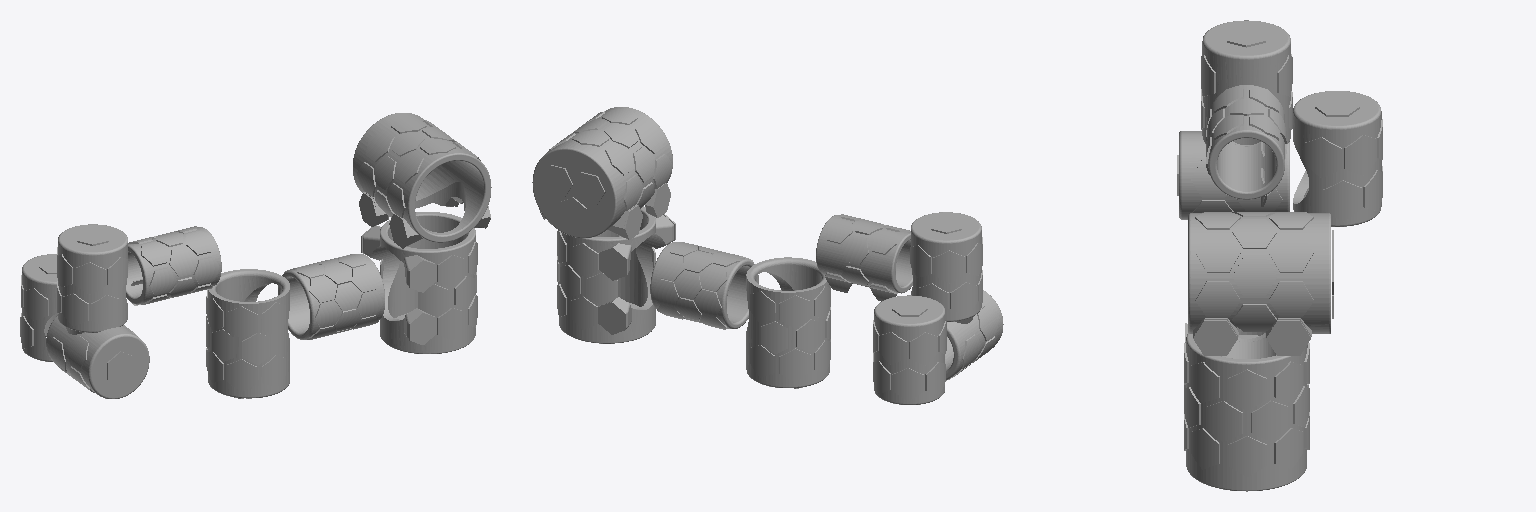
--- Facts derived from the render (not from the file) ---
The picture shows the robot from 3 angles, left to right: view 1: azimuth 30°, elevation 25°; view 2: azimuth 150°, elevation 25°; view 3: azimuth 270°, elevation 25°; orthographic projection.
Robot: dual_arm_agv — 152 links, 151 joints (2 revolute, 149 fixed); root link World; default pose: all joints at 0.
Links seen in each view (by area): view 1: left_eskin_05-2axis, left_eskin_05-1axis, left_eskin_03axis, left_eskin_01-2axis, left_eskin_01-3axis, left_eskin_01-1axis, left_eskin_02axis, left_eskin_04axis, left_eskin_01-3lib-02, left_eskin_03-axis-11, left_eskin_03-axis-02, left_eskin_05-1lib-08 (+23 smaller); view 2: left_eskin_05-2axis, left_eskin_05-1axis, left_eskin_03axis, left_eskin_01-1axis, left_eskin_02axis, left_eskin_01-3axis, left_eskin_04axis, left_eskin_01-2axis, left_eskin_01-1lib-08, left_eskin_03-axis-04, left_eskin_01-3lib-04, left_eskin_03-axis-13 (+28 smaller); view 3: left_eskin_05-2axis, left_eskin_05-1axis, left_eskin_01-1axis, left_eskin_01-3axis, left_eskin_02axis, left_eskin_01-2axis, left_eskin_05-2lib-09, left_eskin_05-2lib-16, left_eskin_05-2lib-03, left_eskin_05-2lib-15, left_eskin_05-2lib-02, left_eskin_05-2flat-14 (+24 smaller).
Link boxes in pixels (x1=…): left_eskin_05-2axis: x1=353, y1=113, x2=491, y2=246; left_eskin_05-1axis: x1=363, y1=212, x2=475, y2=353; left_eskin_03axis: x1=208, y1=269, x2=289, y2=398; left_eskin_01-2axis: x1=46, y1=315, x2=149, y2=398; left_eskin_01-3axis: x1=58, y1=224, x2=127, y2=332; left_eskin_01-1axis: x1=22, y1=254, x2=84, y2=361; left_eskin_02axis: x1=126, y1=227, x2=221, y2=304; left_eskin_04axis: x1=278, y1=254, x2=384, y2=339; left_eskin_01-3lib-02: x1=75, y1=262, x2=105, y2=294; left_eskin_03-axis-11: x1=227, y1=359, x2=257, y2=391; left_eskin_03-axis-02: x1=227, y1=306, x2=257, y2=338; left_eskin_05-1lib-08: x1=418, y1=284, x2=448, y2=315; left_eskin_05-2axis: x1=532, y1=107, x2=672, y2=238; left_eskin_05-1axis: x1=559, y1=206, x2=673, y2=343; left_eskin_03axis: x1=746, y1=257, x2=829, y2=387; left_eskin_01-1axis: x1=874, y1=295, x2=944, y2=404; left_eskin_02axis: x1=816, y1=215, x2=912, y2=293; left_eskin_01-3axis: x1=911, y1=212, x2=981, y2=321; left_eskin_04axis: x1=650, y1=242, x2=758, y2=328; left_eskin_01-2axis: x1=945, y1=290, x2=1003, y2=379; left_eskin_01-1lib-08: x1=892, y1=368, x2=923, y2=400; left_eskin_03-axis-04: x1=779, y1=295, x2=810, y2=327; left_eskin_01-3lib-04: x1=933, y1=250, x2=964, y2=283; left_eskin_03-axis-13: x1=779, y1=348, x2=810, y2=381; left_eskin_05-2axis: x1=1188, y1=213, x2=1330, y2=336; left_eskin_05-1axis: x1=1186, y1=324, x2=1306, y2=491; left_eskin_01-1axis: x1=1293, y1=91, x2=1381, y2=226; left_eskin_01-3axis: x1=1202, y1=20, x2=1290, y2=145; left_eskin_02axis: x1=1208, y1=85, x2=1284, y2=199; left_eskin_01-2axis: x1=1179, y1=131, x2=1289, y2=219; left_eskin_05-2lib-09: x1=1232, y1=257, x2=1276, y2=295; left_eskin_05-2lib-16: x1=1269, y1=235, x2=1313, y2=272; left_eskin_05-2lib-03: x1=1195, y1=235, x2=1240, y2=272; left_eskin_05-2lib-15: x1=1269, y1=281, x2=1313, y2=316; left_eskin_05-2lib-02: x1=1195, y1=281, x2=1240, y2=316; left_eskin_05-2flat-14: x1=1266, y1=320, x2=1310, y2=355.
Size in the robot's own frame: 0.5597 by 0.1947 by 0.2657 metres.
Meshes: 21 distinct files referenced, 143 mesh visuals loaded (11 Collada DAE); not drawn: 8 (reference not matched to a file when rendering).

The robot description file, URDF, robot "dual_arm_agv":
<?xml  version="1.0"?>
<robot name ="dual_arm_agv"> 
    <!-- Author: Chengjin Wang; e-mail:[email redacted]. The urdf file was develped in tongji university.-->

    <!--create  color params-->
    <material name ="LightGrey">
        <color rgba="0.7 0.7 0.7 1.0"/>
    </material>

    <!--create mass params
    <mass name ="agv_base_mass">
        <mass value="1.0"/>
    </mass>

    <mass name ="shoulder_mass">
        <mass value="2.0"/>
    </mass>
    <mass name ="upper_arm_mass">
        <mass value="3.42"/>
    </mass>
    <mass name ="forearm_mass">
        <mass value="1.26"/>
    </mass>
    <mass name ="wrist_1_mass">
        <mass value="0.8"/>
    </mass>
    <mass name ="wrist_2_mass">
        <mass value="0.8"/>
    </mass>
    <mass name ="wrist_3_mass">
        <mass value="0.35"/>
    </mass>
-->



        <!--Create a world.-->
    <link  name ="World"/>


    <joint name="agv_base_link_to_world" type="fixed">
        <parent link="World"/>
        <child link="agv_base_link"/>
        <origin xyz="0.0 0.0 0.0" rpy="0.0 0.0 0.0"/>
    </joint>


    <!--agv_base_link-->
    <link name = "agv_base_link">
        <visual>
            <origin  xyz="0.0 0.0 0.0" rpy="0.0 0.0 0.0"/>
            <geometry>
                <mesh filename = "meshes/agv_base_link.STL"/>
            </geometry >
            <material name ="LightGrey"/>
        </visual>
        <collision>
            <origin xyz="0.0 0.0 0.0" rpy="0.0 0.0 0.0"/>
            <geometry>
                <mesh filename ="meshes/agv_base_link.STL"/>
            </geometry>
        </collision>
        <inertial>
            <mass value ="60"/>
            <inertia ixx="1" ixy="0.0" ixz="0.0" iyy="1" iyz="0.0" izz="1"/>
        </inertial>
    </link>

    <!--arm base link to agv base joint-->
    <joint name="left_base_link_to_agv_base_link" type="fixed">
        <parent link="agv_base_link"/>
        <child link="left_base_link"/>
        <axis xyz="0.0 0.0 1.0"/>
        <origin xyz="0.262 0.0 1.2465" rpy="0.0 0.0 0.0" />
        <limit lower="-6.28318530718" upper="6.28318530718" effort="56.0" velocity="3.14159265359"/>
    </joint>

  <!--link chain: arm base link -shouder link- upper link- forearm link- wrist link 1 - wrist link 2 - wrist link3 -->
    <!--arm base link-->
    <link name="left_base_link">
        <visual>
            <origin xyz="0.0 0.215 0.0 " rpy="-1.5708 0.0 0.0"/>
            <geometry>
                <mesh filename ="meshes/base.dae"/>
            </geometry>
            <material name = "LightGrey"/>
        </visual>
        <collision>
            <origin xyz="0.0 0.215  0.0 " rpy="-1.5708 0.0 0.0"/>
            <geometry>
                 <mesh filename = "meshes/base.stl"/>
            </geometry>
        </collision>
        <inertial>
            <mass value="2.0"/>
            <inertia ixx="0.003053165" ixy="0.0" ixz="0.0" iyy="0.003053165" iyz="0.0" izz="0.005625"/>
        </inertial>
    </link>

    <!--arm joint 1 -->
    <joint name="left_shoulder_link_to_left_base_link" type="fixed">
            <origin xyz="0.0 0.36685 0.0" rpy="-1.5708 0.0 0.0"/>
            <parent link="left_base_link"/>
            <child link="left_shoulder_link"/>
            <axis xyz="0.0 0.0 1.0"/>
            <limit lower="-6.28318530718" upper="6.28318530718" effort="56.0" velocity="1.5708"/>
    </joint>

    <!--left shouder link-->
  
    <link name="left_shoulder_link">
        <visual>
            <origin xyz="0.0 0.0 0.0" rpy="0.0 0.0 0.0"/>
            <geometry>
                <mesh filename ="meshes/shoulder.dae"/>
            </geometry>
            <material name = "LightGrey"/>
        </visual>
        <collision>
            <origin xyz="0.0 0.0 0.0" rpy="0.0 0.0 0.0"/>
            <geometry>
                    <mesh filename ="meshes/shoulder.stl"/>
            </geometry>
        </collision>
        <inertial>
            <origin xyz="0 0 0" rpy="0 0 0" />
            <mass value ="2.0"/>
            <inertia ixx="0.008093163" ixy="0.0" ixz="0.0" iyy="0.008093163" iyz="0.0" izz="0.005625"/>
        </inertial>
    </link>


    <!--left arm 05-2 eskin joint-->
     <joint name="left_shoulder_link_to_left_eskin_05-2axis" type="fixed">
            <origin xyz="-0.0 0.0 -0.055" rpy="0.0 0.0 -1.5708"/>
            <parent link="left_shoulder_link"/>
            <child link="left_eskin_05-2axis"/>
            <axis xyz="0.0 0.0 1.0"/>
            <limit lower="-6.28318530718" upper="6.28318530718" effort="56.0" velocity="1.5708"/>
    </joint>

    <!--left arm 05-2 eskin model -->
    <link name="left_eskin_05-2axis">
        <visual>
            <origin xyz="0.0 0.0 0.0" rpy="0.0 0.0 0.0"/>
            <geometry>
                <mesh filename ="meshes/e_skin/05_meshs/05_axis_py.dae"/>
            </geometry>
            <material name = "LightGrey"/>
        </visual>
        <collision>
            <origin xyz="0.0 0.0 0.0" rpy="0.0 0.0 0.0"/>
        <geometry>
             <mesh filename ="meshes/e_skin/05_meshs/05_axis_py.stl"/>
        </geometry>
        </collision>
        <inertial>
            <origin xyz="0 0 0" rpy="0 0 0" />
            <mass value ="2.0"/>
            <inertia ixx="0.008093163" ixy="0.0" ixz="0.0" iyy="0.008093163" iyz="0.0" izz="0.005625"/>
        </inertial>
    </link>


     <!-- left_arm 05-2 eskin first  culon -->

      <!--left arm 05-2lib-01 eskin joint-->
     <joint name="left_eskin_05-2axis_to_left_eskin_05-2flat-01" type="fixed">
            <origin xyz="-0.0394 0.05648 0.026" rpy="-1.5708 0.5235 0.0"/>
            <parent link="left_eskin_05-2axis"/>
            <child link="left_eskin_05-2flat-01"/>
            <axis xyz="0.0 0.0 1.0"/>
            <limit lower="-6.28318530718" upper="6.28318530718" effort="56.0" velocity="1.5708"/>
    </joint>

    <!--left arm 05-2lib-01 eskin model -->
    <link name="left_eskin_05-2flat-01">
        <visual>
            <origin xyz="0.0 0.0 0.0" rpy="0.0 0.0 0.0"/>
            <geometry>
                <mesh filename ="meshes/e_skin/05_meshs/flat_py.dae"/>
            </geometry>
            <material name = "LightGrey"/>
        </visual>
        <collision>
            <origin xyz="0.0 0.0 0.0" rpy="0.0 0.0 0.0"/>
        <geometry>
             <mesh filename ="meshes/e_skin/05_meshs/flat_py.stl"/>
        </geometry>
        </collision>
        <inertial>
            <origin xyz="0 0 0" rpy="0 0 0" />
            <mass value ="2.0"/>
            <inertia ixx="0.008093163" ixy="0.0" ixz="0.0" iyy="0.008093163" iyz="0.0" izz="0.005625"/>
        </inertial>
    </link>


     <!--left arm 05-2lib-02 eskin joint-->
     <joint name="left_eskin_05-2axis_to_left_eskin_05-2lib-02" type="fixed">
            <origin xyz="0.0 0.06 0.026" rpy="0.0 0.0 0.0"/>
            <parent link="left_eskin_05-2axis"/>
            <child link="left_eskin_05-2lib-02"/>
            <axis xyz="0.0 0.0 1.0"/>
            <limit lower="-6.28318530718" upper="6.28318530718" effort="56.0" velocity="1.5708"/>
    </joint>

    <!--left arm 05-2lib-02 eskin model -->
    <link name="left_eskin_05-2lib-02">
        <visual>
            <origin xyz="0.0 0.0 0.0" rpy="0.0 0.0 0.0"/>
            <geometry>
                <mesh filename ="meshes/e_skin/05_meshs/05_lib_py.dae"/>
            </geometry>
            <material name = "LightGrey"/>
        </visual>
        <collision>
            <origin xyz="0.0 0.0 0.0" rpy="0.0 0.0 0.0"/>
        <geometry>
             <mesh filename ="meshes/e_skin/05_meshs/05_lib_py.stl"/>
        </geometry>
        </collision>
        <inertial>
            <origin xyz="0 0 0" rpy="0 0 0" />
            <mass value ="2.0"/>
            <inertia ixx="0.008093163" ixy="0.0" ixz="0.0" iyy="0.008093163" iyz="0.0" izz="0.005625"/>
        </inertial>
    </link>

    <!--left arm 05-2lib-03 eskin joint-->
    <joint name="left_eskin_05-2axis_to_left_eskin_05-2lib-03" type="fixed">
            <origin xyz="0.042426 0.042426 0.026" rpy="0.0 0.0 -0.785375"/>
            <parent link="left_eskin_05-2axis"/>
            <child link="left_eskin_05-2lib-03"/>
            <axis xyz="0.0 0.0 1.0"/>
            <limit lower="-6.28318530718" upper="6.28318530718" effort="56.0" velocity="1.5708"/>
    </joint>

    <!--left arm 05-2lib-03 eskin model -->
    <link name="left_eskin_05-2lib-03">
        <visual>
            <origin xyz="0.0 0.0 0.0" rpy="0.0 0.0 0.0"/>
            <geometry>
                <mesh filename ="meshes/e_skin/05_meshs/05_lib_py.dae"/>
            </geometry>
            <material name = "LightGrey"/>
        </visual>
        <collision>
            <origin xyz="0.0 0.0 0.0" rpy="0.0 0.0 0.0"/>
        <geometry>
             <mesh filename ="meshes/e_skin/05_meshs/05_lib_py.stl"/>
        </geometry>
        </collision>
        <inertial>
            <origin xyz="0 0 0" rpy="0 0 0" />
            <mass value ="2.0"/>
            <inertia ixx="0.008093163" ixy="0.0" ixz="0.0" iyy="0.008093163" iyz="0.0" izz="0.005625"/>
        </inertial>
    </link>

    <!--left arm 05-2lib-04 eskin joint-->
    <joint name="left_eskin_05-2axis_to_left_eskin_05-2lib-04" type="fixed">
            <origin xyz="0.06 0.0 0.026" rpy="0.0 0.0 -1.5708"/>
            <parent link="left_eskin_05-2axis"/>
            <child link="left_eskin_05-2lib-04"/>
            <axis xyz="0.0 0.0 1.0"/>
            <limit lower="-6.28318530718" upper="6.28318530718" effort="56.0" velocity="1.5708"/>
    </joint>

    <!--left arm 05-2lib-04 eskin model -->
    <link name="left_eskin_05-2lib-04">
        <visual>
            <origin xyz="0.0 0.0 0.0" rpy="0.0 0.0 0.0"/>
            <geometry>
                <mesh filename ="meshes/e_skin/05_meshs/05_lib_py.dae"/>
            </geometry>
            <material name = "LightGrey"/>
        </visual>
        <collision>
            <origin xyz="0.0 0.0 0.0" rpy="0.0 0.0 0.0"/>
        <geometry>
             <mesh filename ="meshes/e_skin/05_meshs/05_lib_py.stl"/>
        </geometry>
        </collision>
        <inertial>
            <origin xyz="0 0 0" rpy="0 0 0" />
            <mass value ="2.0"/>
            <inertia ixx="0.008093163" ixy="0.0" ixz="0.0" iyy="0.008093163" iyz="0.0" izz="0.005625"/>
        </inertial>
    </link>


    <!--left arm 05-2lib-05 eskin joint-->
    <joint name="left_eskin_05-2axis_to_left_eskin_05-2lib-05" type="fixed">
            <origin xyz="0.042426 -0.042426 0.026" rpy="0.0 0.0 -2.3636"/>
            <parent link="left_eskin_05-2axis"/>
            <child link="left_eskin_05-2lib-05"/>
            <axis xyz="0.0 0.0 1.0"/>
            <limit lower="-6.28318530718" upper="6.28318530718" effort="56.0" velocity="1.5708"/>
    </joint>

    <!--left arm 05-2lib-05 eskin model -->
    <link name="left_eskin_05-2lib-05">
        <visual>
            <origin xyz="0.0 0.0 0.0" rpy="0.0 0.0 0.0"/>
            <geometry>
                <mesh filename ="meshes/e_skin/05_meshs/05_lib_py.dae"/>
            </geometry>
            <material name = "LightGrey"/>
        </visual>
        <collision>
            <origin xyz="0.0 0.0 0.0" rpy="0.0 0.0 0.0"/>
        <geometry>
             <mesh filename ="meshes/e_skin/05_meshs/05_lib_py.stl"/>
        </geometry>
        </collision>
        <inertial>
            <origin xyz="0 0 0" rpy="0 0 0" />
            <mass value ="2.0"/>
            <inertia ixx="0.008093163" ixy="0.0" ixz="0.0" iyy="0.008093163" iyz="0.0" izz="0.005625"/>
        </inertial>
    </link>

    <!--left arm 05-2lib-06 eskin joint-->
    <joint name="left_eskin_05-2axis_to_left_eskin_05-2lib-06" type="fixed">
            <origin xyz="0.0 -0.06 0.026" rpy="0.0 0.0 -3.14159"/>
            <parent link="left_eskin_05-2axis"/>
            <child link="left_eskin_05-2lib-06"/>
            <axis xyz="0.0 0.0 1.0"/>
            <limit lower="-6.28318530718" upper="6.28318530718" effort="56.0" velocity="1.5708"/>
    </joint>

    <!--left arm 05-2lib-06 eskin model -->
    <link name="left_eskin_05-2lib-06">
        <visual>
            <origin xyz="0.0 0.0 0.0" rpy="0.0 0.0 0.0"/>
            <geometry>
                <mesh filename ="meshes/e_skin/05_meshs/05_lib_py.dae"/>
            </geometry>
            <material name = "LightGrey"/>
        </visual>
        <collision>
            <origin xyz="0.0 0.0 0.0" rpy="0.0 0.0 0.0"/>
        <geometry>
             <mesh filename ="meshes/e_skin/05_meshs/05_lib_py.stl"/>
        </geometry>
        </collision>
        <inertial>
            <origin xyz="0 0 0" rpy="0 0 0" />
            <mass value ="2.0"/>
            <inertia ixx="0.008093163" ixy="0.0" ixz="0.0" iyy="0.008093163" iyz="0.0" izz="0.005625"/>
        </inertial>
    </link>

    <!--left arm 05-2lib-07 eskin joint-->
    <joint name="left_eskin_05-2axis_to_left_eskin_05-2flat-07" type="fixed">
            <origin xyz="-0.0394 -0.05648 0.026" rpy="-1.5708 0.5235 0.0"/>
            <parent link="left_eskin_05-2axis"/>
            <child link="left_eskin_05-2flat-07"/>
            <axis xyz="0.0 0.0 1.0"/>
            <limit lower="-6.28318530718" upper="6.28318530718" effort="56.0" velocity="1.5708"/>
    </joint>

    <!--left arm 05-2lib-07 eskin model -->
    <link name="left_eskin_05-2flat-07">
        <visual>
            <origin xyz="0.0 0.0 0.0" rpy="0.0 0.0 0.0"/>
            <geometry>
                <mesh filename ="meshes/e_skin/05_meshs/flat_py.dae"/>
            </geometry>
            <material name = "LightGrey"/>
        </visual>
        <collision>
            <origin xyz="0.0 0.0 0.0" rpy="0.0 0.0 0.0"/>
        <geometry>
             <mesh filename ="meshes/e_skin/05_meshs/flat_py.stl"/>
        </geometry>
        </collision>
        <inertial>
            <origin xyz="0 0 0" rpy="0 0 0" />
            <mass value ="2.0"/>
            <inertia ixx="0.008093163" ixy="0.0" ixz="0.0" iyy="0.008093163" iyz="0.0" izz="0.005625"/>
        </inertial>
    </link>



    <!-- left_arm 05-2 eskin second  culon -->

    <!--left arm 05-2lib-08 eskin joint-->
    <joint name="left_eskin_05-2axis_to_left_eskin_05-2lib-08" type="fixed">
            <origin xyz="-0.022961 0.055432 0.0605" rpy="0.0 0.0 0.3926"/>
            <parent link="left_eskin_05-2axis"/>
            <child link="left_eskin_05-2lib-08"/>
            <axis xyz="0.0 0.0 1.0"/>
            <limit lower="-6.28318530718" upper="6.28318530718" effort="56.0" velocity="1.5708"/>
    </joint>

    <!--left arm 05-2lib-08 eskin model -->
    <link name="left_eskin_05-2lib-08">
        <visual>
            <origin xyz="0.0 0.0 0.0" rpy="0.0 0.0 0.0"/>
            <geometry>
                <mesh filename ="meshes/e_skin/05_meshs/05_lib_py.dae"/>
            </geometry>
            <material name = "LightGrey"/>
        </visual>
        <collision>
            <origin xyz="0.0 0.0 0.0" rpy="0.0 0.0 0.0"/>
        <geometry>
             <mesh filename ="meshes/e_skin/05_meshs/05_lib_py.stl"/>
        </geometry>
        </collision>
        <inertial>
            <origin xyz="0 0 0" rpy="0 0 0" />
            <mass value ="2.0"/>
            <inertia ixx="0.008093163" ixy="0.0" ixz="0.0" iyy="0.008093163" iyz="0.0" izz="0.005625"/>
        </inertial>
    </link>


    <!--left arm 05-2lib-09 eskin joint-->
    <joint name="left_eskin_05-2axis_to_left_eskin_05-2lib-09" type="fixed">
            <origin xyz="0.022961 0.055432 0.0605" rpy="0.0 0.0 -0.3926"/>
            <parent link="left_eskin_05-2axis"/>
            <child link="left_eskin_05-2lib-09"/>
            <axis xyz="0.0 0.0 1.0"/>
            <limit lower="-6.28318530718" upper="6.28318530718" effort="56.0" velocity="1.5708"/>
    </joint>

    <!--left arm 05-2lib-09 eskin model -->
    <link name="left_eskin_05-2lib-09">
        <visual>
            <origin xyz="0.0 0.0 0.0" rpy="0.0 0.0 0.0"/>
            <geometry>
                <mesh filename ="meshes/e_skin/05_meshs/05_lib_py.dae"/>
            </geometry>
            <material name = "LightGrey"/>
        </visual>
        <collision>
            <origin xyz="0.0 0.0 0.0" rpy="0.0 0.0 0.0"/>
        <geometry>
             <mesh filename ="meshes/e_skin/05_meshs/05_lib_py.stl"/>
        </geometry>
        </collision>
        <inertial>
            <origin xyz="0 0 0" rpy="0 0 0" />
            <mass value ="2.0"/>
            <inertia ixx="0.008093163" ixy="0.0" ixz="0.0" iyy="0.008093163" iyz="0.0" izz="0.005625"/>
        </inertial>
    </link>


    <!--left arm 05-2lib-10 eskin joint-->
    <joint name="left_eskin_05-2axis_to_left_eskin_05-2lib-10" type="fixed">
            <origin xyz="0.055432  0.022961 0.0605" rpy="0.0 0.0 -1.1781"/>
            <parent link="left_eskin_05-2axis"/>
            <child link="left_eskin_05-2lib-10"/>
            <axis xyz="0.0 0.0 1.0"/>
            <limit lower="-6.28318530718" upper="6.28318530718" effort="56.0" velocity="1.5708"/>
    </joint>

    <!--left arm 05-2lib-10 eskin model -->
    <link name="left_eskin_05-2lib-10">
        <visual>
            <origin xyz="0.0 0.0 0.0" rpy="0.0 0.0 0.0"/>
            <geometry>
                <mesh filename ="meshes/e_skin/05_meshs/05_lib_py.dae"/>
            </geometry>
            <material name = "LightGrey"/>
        </visual>
        <collision>
            <origin xyz="0.0 0.0 0.0" rpy="0.0 0.0 0.0"/>
        <geometry>
             <mesh filename ="meshes/e_skin/05_meshs/05_lib_py.stl"/>
        </geometry>
        </collision>
        <inertial>
            <origin xyz="0 0 0" rpy="0 0 0" />
            <mass value ="2.0"/>
            <inertia ixx="0.008093163" ixy="0.0" ixz="0.0" iyy="0.008093163" iyz="0.0" izz="0.005625"/>
        </inertial>
    </link>

    <!--left arm 05-2lib-11 eskin joint-->
    <joint name="left_eskin_05-2axis_to_left_eskin_05-2lib-11" type="fixed">
            <origin xyz="0.05531 -0.02296 0.0605" rpy="0.0 0.0 -1.96349"/>
            <parent link="left_eskin_05-2axis"/>
            <child link="left_eskin_05-2lib-11"/>
            <axis xyz="0.0 0.0 1.0"/>
            <limit lower="-6.28318530718" upper="6.28318530718" effort="56.0" velocity="1.5708"/>
    </joint>

    <!--left arm 05-2lib-11 eskin model -->
    <link name="left_eskin_05-2lib-11">
        <visual>
            <origin xyz="0.0 0.0 0.0" rpy="0.0 0.0 0.0"/>
            <geometry>
                <mesh filename ="meshes/e_skin/05_meshs/05_lib_py.dae"/>
            </geometry>
            <material name = "LightGrey"/>
        </visual>
        <collision>
            <origin xyz="0.0 0.0 0.0" rpy="0.0 0.0 0.0"/>
        <geometry>
             <mesh filename ="meshes/e_skin/05_meshs/05_lib_py.stl"/>
        </geometry>
        </collision>
        <inertial>
            <origin xyz="0 0 0" rpy="0 0 0" />
            <mass value ="2.0"/>
            <inertia ixx="0.008093163" ixy="0.0" ixz="0.0" iyy="0.008093163" iyz="0.0" izz="0.005625"/>
        </inertial>
    </link>

    <!--left arm 05-2lib-12 eskin joint-->
    <joint name="left_eskin_05-2axis_to_left_eskin_05-2lib-12" type="fixed">
            <origin xyz="0.022961 -0.055432 0.0605" rpy="0.0 0.0 -2.74889"/>
            <parent link="left_eskin_05-2axis"/>
            <child link="left_eskin_05-2lib-12"/>
            <axis xyz="0.0 0.0 1.0"/>
            <limit lower="-6.28318530718" upper="6.28318530718" effort="56.0" velocity="1.5708"/>
    </joint>

    <!--left arm 05-2lib-12 eskin model -->
    <link name="left_eskin_05-2lib-12">
        <visual>
            <origin xyz="0.0 0.0 0.0" rpy="0.0 0.0 0.0"/>
            <geometry>
                <mesh filename ="meshes/e_skin/05_meshs/05_lib_py.dae"/>
            </geometry>
            <material name = "LightGrey"/>
        </visual>
        <collision>
            <origin xyz="0.0 0.0 0.0" rpy="0.0 0.0 0.0"/>
        <geometry>
             <mesh filename ="meshes/e_skin/05_meshs/05_lib_py.stl"/>
        </geometry>
        </collision>
        <inertial>
            <origin xyz="0 0 0" rpy="0 0 0" />
            <mass value ="2.0"/>
            <inertia ixx="0.008093163" ixy="0.0" ixz="0.0" iyy="0.008093163" iyz="0.0" izz="0.005625"/>
        </inertial>
    </link>

    <!--left arm 05-2lib-13 eskin joint-->
    <joint name="left_eskin_05-2axis_to_left_eskin_05-2lib-13" type="fixed">
            <origin xyz="-0.022961 -0.055432 0.0605" rpy="0.0 0.0 -3.53428"/>
            <parent link="left_eskin_05-2axis"/>
            <child link="left_eskin_05-2lib-13"/>
            <axis xyz="0.0 0.0 1.0"/>
            <limit lower="-6.28318530718" upper="6.28318530718" effort="56.0" velocity="1.5708"/>
    </joint>

    <!--left arm 05-2lib-13 eskin model -->
    <link name="left_eskin_05-2lib-13">
        <visual>
            <origin xyz="0.0 0.0 0.0" rpy="0.0 0.0 0.0"/>
            <geometry>
                <mesh filename ="meshes/e_skin/05_meshs/05_lib_py.dae"/>
            </geometry>
            <material name = "LightGrey"/>
        </visual>
        <collision>
            <origin xyz="0.0 0.0 0.0" rpy="0.0 0.0 0.0"/>
        <geometry>
             <mesh filename ="meshes/e_skin/05_meshs/05_lib_py.stl"/>
        </geometry>
        </collision>
        <inertial>
            <origin xyz="0 0 0" rpy="0 0 0" />
            <mass value ="2.0"/>
            <inertia ixx="0.008093163" ixy="0.0" ixz="0.0" iyy="0.008093163" iyz="0.0" izz="0.005625"/>
        </inertial>
    </link>



     <!-- left_arm 05-2 eskin third  culon -->

     <joint name="left_eskin_05-2axis_to_left_eskin_05-2flat-14" type="fixed">
            <origin xyz="-0.0394 0.05648 0.095" rpy="-1.5708 0.5235 0.0"/>
            <parent link="left_eskin_05-2axis"/>
            <child link="left_eskin_05-2flat-14"/>
            <axis xyz="0.0 0.0 1.0"/>
            <limit lower="-6.28318530718" upper="6.28318530718" effort="56.0" velocity="1.5708"/>
    </joint>

    <!--left arm 05-2lib-14 eskin model -->
    <link name="left_eskin_05-2flat-14">
        <visual>
            <origin xyz="0.0 0.0 0.0" rpy="0.0 0.0 0.0"/>
            <geometry>
                <mesh filename ="meshes/e_skin/05_meshs/flat_py.dae"/>
            </geometry>
            <material name = "LightGrey"/>
        </visual>
        <collision>
            <origin xyz="0.0 0.0 0.0" rpy="0.0 0.0 0.0"/>
        <geometry>
             <mesh filename ="meshes/e_skin/05_meshs/flat_py.stl"/>
        </geometry>
        </collision>
        <inertial>
            <origin xyz="0 0 0" rpy="0 0 0" />
            <mass value ="2.0"/>
            <inertia ixx="0.008093163" ixy="0.0" ixz="0.0" iyy="0.008093163" iyz="0.0" izz="0.005625"/>
        </inertial>
    </link>

    <!--left arm 05-2lib-15 eskin joint-->
     <joint name="left_eskin_05-2axis_to_left_eskin_05-2lib-15" type="fixed">
            <origin xyz="0.0 0.06 0.095" rpy="0.0 0.0 0.0"/>
            <parent link="left_eskin_05-2axis"/>
            <child link="left_eskin_05-2lib-15"/>
            <axis xyz="0.0 0.0 1.0"/>
            <limit lower="-6.28318530718" upper="6.28318530718" effort="56.0" velocity="1.5708"/>
    </joint>

    <!--left arm 05-2lib-15 eskin model -->
    <link name="left_eskin_05-2lib-15">
        <visual>
            <origin xyz="0.0 0.0 0.0" rpy="0.0 0.0 0.0"/>
            <geometry>
                <mesh filename ="meshes/e_skin/05_meshs/05_lib_py.dae"/>
            </geometry>
            <material name = "LightGrey"/>
        </visual>
        <collision>
            <origin xyz="0.0 0.0 0.0" rpy="0.0 0.0 0.0"/>
        <geometry>
             <mesh filename ="meshes/e_skin/05_meshs/05_lib_py.stl"/>
        </geometry>
        </collision>
        <inertial>
            <origin xyz="0 0 0" rpy="0 0 0" />
            <mass value ="2.0"/>
            <inertia ixx="0.008093163" ixy="0.0" ixz="0.0" iyy="0.008093163" iyz="0.0" izz="0.005625"/>
        </inertial>
    </link>

    <!--left arm 05-2lib-16 eskin joint-->
    <joint name="left_eskin_05-2axis_to_left_eskin_05-2lib-16" type="fixed">
            <origin xyz="0.042426 0.042426 0.095" rpy="0.0 0.0 -0.785375"/>
            <parent link="left_eskin_05-2axis"/>
            <child link="left_eskin_05-2lib-16"/>
            <axis xyz="0.0 0.0 1.0"/>
            <limit lower="-6.28318530718" upper="6.28318530718" effort="56.0" velocity="1.5708"/>
    </joint>

    <!--left arm 05-2lib-16 eskin model -->
    <link name="left_eskin_05-2lib-16">
        <visual>
            <origin xyz="0.0 0.0 0.0" rpy="0.0 0.0 0.0"/>
            <geometry>
                <mesh filename ="meshes/e_skin/05_meshs/05_lib_py.dae"/>
            </geometry>
            <material name = "LightGrey"/>
        </visual>
        <collision>
            <origin xyz="0.0 0.0 0.0" rpy="0.0 0.0 0.0"/>
        <geometry>
             <mesh filename ="meshes/e_skin/05_meshs/05_lib_py.stl"/>
        </geometry>
        </collision>
        <inertial>
            <origin xyz="0 0 0" rpy="0 0 0" />
            <mass value ="2.0"/>
            <inertia ixx="0.008093163" ixy="0.0" ixz="0.0" iyy="0.008093163" iyz="0.0" izz="0.005625"/>
        </inertial>
    </link>

    <!--left arm 05-2lib-17 eskin joint-->
    <joint name="left_eskin_05-2axis_to_left_eskin_05-2lib-17" type="fixed">
            <origin xyz="0.06 0.0 0.095" rpy="0.0 0.0 -1.5708"/>
            <parent link="left_eskin_05-2axis"/>
            <child link="left_eskin_05-2lib-17"/>
            <axis xyz="0.0 0.0 1.0"/>
            <limit lower="-6.28318530718" upper="6.28318530718" effort="56.0" velocity="1.5708"/>
    </joint>

    <!--left arm 05-2lib-17 eskin model -->
    <link name="left_eskin_05-2lib-17">
        <visual>
            <origin xyz="0.0 0.0 0.0" rpy="0.0 0.0 0.0"/>
            <geometry>
                <mesh filename ="meshes/e_skin/05_meshs/05_lib_py.dae"/>
            </geometry>
            <material name = "LightGrey"/>
        </visual>
        <collision>
            <origin xyz="0.0 0.0 0.0" rpy="0.0 0.0 0.0"/>
        <geometry>
             <mesh filename ="meshes/e_skin/05_meshs/05_lib_py.stl"/>
        </geometry>
        </collision>
        <inertial>
            <origin xyz="0 0 0" rpy="0 0 0" />
            <mass value ="2.0"/>
            <inertia ixx="0.008093163" ixy="0.0" ixz="0.0" iyy="0.008093163" iyz="0.0" izz="0.005625"/>
        </inertial>
    </link>


    <!--left arm 05-2lib-18 eskin joint-->
    <joint name="left_eskin_05-2axis_to_left_eskin_05-2lib-18" type="fixed">
            <origin xyz="0.042426 -0.042426 0.095" rpy="0.0 0.0 -2.3636"/>
            <parent link="left_eskin_05-2axis"/>
            <child link="left_eskin_05-2lib-18"/>
            <axis xyz="0.0 0.0 1.0"/>
            <limit lower="-6.28318530718" upper="6.28318530718" effort="56.0" velocity="1.5708"/>
    </joint>

    <!--left arm 05-2lib-18 eskin model -->
    <link name="left_eskin_05-2lib-18">
        <visual>
            <origin xyz="0.0 0.0 0.0" rpy="0.0 0.0 0.0"/>
            <geometry>
                <mesh filename ="meshes/e_skin/05_meshs/05_lib_py.dae"/>
            </geometry>
            <material name = "LightGrey"/>
        </visual>
        <collision>
            <origin xyz="0.0 0.0 0.0" rpy="0.0 0.0 0.0"/>
        <geometry>
             <mesh filename ="meshes/e_skin/05_meshs/05_lib_py.stl"/>
        </geometry>
        </collision>
        <inertial>
            <origin xyz="0 0 0" rpy="0 0 0" />
            <mass value ="2.0"/>
            <inertia ixx="0.008093163" ixy="0.0" ixz="0.0" iyy="0.008093163" iyz="0.0" izz="0.005625"/>
        </inertial>
    </link>

    <!--left arm 05-2lib-19 eskin joint-->
    <joint name="left_eskin_05-2axis_to_left_eskin_05-2lib-19" type="fixed">
            <origin xyz="0.0 -0.06 0.095" rpy="0.0 0.0 -3.14159"/>
            <parent link="left_eskin_05-2axis"/>
            <child link="left_eskin_05-2lib-19"/>
            <axis xyz="0.0 0.0 1.0"/>
            <limit lower="-6.28318530718" upper="6.28318530718" effort="56.0" velocity="1.5708"/>
    </joint>

    <!--left arm 05-2lib-19 eskin model -->
    <link name="left_eskin_05-2lib-19">
        <visual>
            <origin xyz="0.0 0.0 0.0" rpy="0.0 0.0 0.0"/>
            <geometry>
                <mesh filename ="meshes/e_skin/05_meshs/05_lib_py.dae"/>
            </geometry>
            <material name = "LightGrey"/>
        </visual>
        <collision>
            <origin xyz="0.0 0.0 0.0" rpy="0.0 0.0 0.0"/>
        <geometry>
             <mesh filename ="meshes/e_skin/05_meshs/05_lib_py.stl"/>
        </geometry>
        </collision>
        <inertial>
            <origin xyz="0 0 0" rpy="0 0 0" />
            <mass value ="2.0"/>
            <inertia ixx="0.008093163" ixy="0.0" ixz="0.0" iyy="0.008093163" iyz="0.0" izz="0.005625"/>
        </inertial>
    </link>

    <!--left arm 05-2lib-20 eskin joint-->
    <joint name="left_eskin_05-2axis_to_left_eskin_05-2flat-20" type="fixed">
            <origin xyz="-0.0394 -0.05648 0.095" rpy="1.5708 0.5235 0.0"/>
            <parent link="left_eskin_05-2axis"/>
            <child link="left_eskin_05-2flat-20"/>
            <axis xyz="0.0 0.0 1.0"/>
            <limit lower="-6.28318530718" upper="6.28318530718" effort="56.0" velocity="1.5708"/>
    </joint>

    <!--left arm 05-2lib-20 eskin model -->
    <link name="left_eskin_05-2flat-20">
        <visual>
            <origin xyz="0.0 0.0 0.0" rpy="0.0 0.0 0.0"/>
            <geometry>
                <mesh filename ="meshes/e_skin/05_meshs/flat_py.dae"/>
            </geometry>
            <material name = "LightGrey"/>
        </visual>
        <collision>
            <origin xyz="0.0 0.0 0.0" rpy="0.0 0.0 0.0"/>
        <geometry>
             <mesh filename ="meshes/e_skin/05_meshs/flat_py.stl"/>
        </geometry>
        </collision>
        <inertial>
            <origin xyz="0 0 0" rpy="0 0 0" />
            <mass value ="2.0"/>
            <inertia ixx="0.008093163" ixy="0.0" ixz="0.0" iyy="0.008093163" iyz="0.0" izz="0.005625"/>
        </inertial>
    </link>

     <!-- left_arm 05-2 eskin flat  culon -->

    <!--left arm 05-2lib-21 eskin joint -->
     <joint name="left_eskin_05-2axis_to_left_eskin_05-2flat-21" type="fixed">
            <origin xyz="0.0125 -0.02165 0.135" rpy="0.0 0.0 -0.5235"/>
            <parent link="left_eskin_05-2axis"/>
            <child link="left_eskin_05-2flat-21"/>
            <axis xyz="0.0 0.0 1.0"/>
            <limit lower="-6.28318530718" upper="6.28318530718" effort="56.0" velocity="1.5708"/>
    </joint>

    <!--left arm 05-2lib-21 eskin model -->
    <link name="left_eskin_05-2flat-21">
        <visual>
            <origin xyz="0.0 0.0 0.0" rpy="0.0 0.0 0.0"/>
            <geometry>
                <mesh filename ="meshes/e_skin/05_meshs/flat_py.dae"/>
            </geometry>
            <material name = "LightGrey"/>
        </visual>
        <collision>
            <origin xyz="0.0 0.0 0.0" rpy="0.0 0.0 0.0"/>
        <geometry>
             <mesh filename ="meshes/e_skin/05_meshs/flat_py.stl"/>
        </geometry>
        </collision>
        <inertial>
            <origin xyz="0 0 0" rpy="0 0 0" />
            <mass value ="2.0"/>
            <inertia ixx="0.008093163" ixy="0.0" ixz="0.0" iyy="0.008093163" iyz="0.0" izz="0.005625"/>
        </inertial>
    </link>

     <joint name="left_eskin_05-2axis_to_left_eskin_05-2flat-22" type="fixed">
            <origin xyz="0.0125 0.02165 0.135" rpy="0.0 0.0 0.5235"/>
            <parent link="left_eskin_05-2axis"/>
            <child link="left_eskin_05-2flat-22"/>
            <axis xyz="0.0 0.0 1.0"/>
            <limit lower="-6.28318530718" upper="6.28318530718" effort="56.0" velocity="1.5708"/>
    </joint>

    <!--left arm 05-2lib-22 eskin model -->
    <link name="left_eskin_05-2flat-22">
        <visual>
            <origin xyz="0.0 0.0 0.0" rpy="0.0 0.0 0.0"/>
            <geometry>
                <mesh filename ="meshes/e_skin/05_meshs/flat_py.dae"/>
            </geometry>
            <material name = "LightGrey"/>
        </visual>
        <collision>
            <origin xyz="0.0 0.0 0.0" rpy="0.0 0.0 0.0"/>
        <geometry>
             <mesh filename ="meshes/e_skin/05_meshs/flat_py.stl"/>
        </geometry>
        </collision>
        <inertial>
            <origin xyz="0 0 0" rpy="0 0 0" />
            <mass value ="2.0"/>
            <inertia ixx="0.008093163" ixy="0.0" ixz="0.0" iyy="0.008093163" iyz="0.0" izz="0.005625"/>
        </inertial>
    </link>


    <joint name="left_eskin_05-2axis_to_left_eskin_05-2flat-23" type="fixed">
            <origin xyz="-0.025 0.0 0.135" rpy="0.0 0.0 0.0"/>
            <parent link="left_eskin_05-2axis"/>
            <child link="left_eskin_05-2flat-23"/>
            <axis xyz="0.0 0.0 1.0"/>
            <limit lower="-6.28318530718" upper="6.28318530718" effort="56.0" velocity="1.5708"/>
    </joint>

    <!--left arm 05-2lib-23 eskin model -->
    <link name="left_eskin_05-2flat-23">
        <visual>
            <origin xyz="0.0 0.0 0.0" rpy="0.0 0.0 0.0"/>
            <geometry>
                <mesh filename ="meshes/e_skin/05_meshs/flat_py.dae"/>
            </geometry>
            <material name = "LightGrey"/>
        </visual>
        <collision>
            <origin xyz="0.0 0.0 0.0" rpy="0.0 0.0 0.0"/>
        <geometry>
             <mesh filename ="meshes/e_skin/05_meshs/flat_py.stl"/>
        </geometry>
        </collision>
        <inertial>
            <origin xyz="0 0 0" rpy="0 0 0" />
            <mass value ="2.0"/>
            <inertia ixx="0.008093163" ixy="0.0" ixz="0.0" iyy="0.008093163" iyz="0.0" izz="0.005625"/>
        </inertial>
    </link>

    


    

    <!--arm joint 2-->
    <joint name="left_upper_arm_link_to_left_shoulder_link" type="revolute">
        <origin xyz="0.0 0.0 0.0" rpy="-1.5708 0.0  0."/>
        <parent link="left_shoulder_link"/>
        <child link="left_upper_arm_link"/>
        <axis xyz="0.0 0.0 1"/>
        <limit lower="-6.28318530718" upper="6.28318530718" effort="56.0" velocity="1.5708"/>
    </joint>

    <!--left upper link -->
    <link name="left_upper_arm_link">
        <inertial>
            <origin xyz="-0.121825 0.0 0.12" rpy="  0.0 1.5708 0.0"/>
            <mass value ="3.42"/>
            <inertia ixx="0.021728483" ixy="0.0" ixz="0.0" iyy="0.021728483" iyz="0.0" izz="0.00961875"/>
        </inertial>
        <visual >
            <origin xyz="0.0 0.0 0.1198" rpy="1.5708 0.0 -1.5708 "/>
            <geometry>
                <mesh filename="meshes/upperarm.dae"/>
            </geometry>
            <material name="LightGrey"/>
        </visual>
        <collision>
            <origin xyz="0.0 0.0 0.1198" rpy="1.5708 0.0 -1.5708"/>
            <geometry>
                <mesh filename="meshes/upperarm.stl"/>
            </geometry>
        </collision>
    </link>

    <!-- left arm 05-01 eskin joint -->
     <joint name="left_upper_arm_link_to_left_eskin_05-1axis" type="fixed">
            <origin xyz="0.0 0.0 0.0648" rpy="0.0 0.0  0.0"/>
            <parent link="left_upper_arm_link"/>
            <child link="left_eskin_05-1axis"/>
            <axis xyz="0.0 0.0 1.0"/>
            <limit lower="-6.28318530718" upper="6.28318530718" effort="56.0" velocity="1.5708"/>
    </joint>

    <!--left arm 05-01 eskin model -->
    <link name="left_eskin_05-1axis">
        <visual>
            <origin xyz="0.0 0.0 0.00" rpy="0.0 0.0 0.0"/>
            <geometry>
                <mesh filename ="meshes/e_skin/05_meshs/05_axis_py.dae"/>
            </geometry>
            <material name = "LightGrey"/>
        </visual>
        <collision>
            <origin xyz="0.0 0.0 0.0" rpy="0.0 0.0 0.0"/>
        <geometry>
             <mesh filename ="meshes/e_skin/05_meshs/05_axis_py.stl"/>
        </geometry>
        </collision>
        <inertial>
            <origin xyz="0 0 0" rpy="0 0 0" />
            <mass value ="2.0"/>
            <inertia ixx="0.008093163" ixy="0.0" ixz="0.0" iyy="0.008093163" iyz="0.0" izz="0.005625"/>
        </inertial>
    </link>

<!-- left_arm 05-1 eskin first  culon -->

      <!--left arm 05-1lib-01 eskin joint-->
     <joint name="left_eskin_05-1axis_to_left_eskin_05-1flat-01" type="fixed">
            <origin xyz="-0.0394 0.05648 0.026" rpy="-1.5708 0.5235 0.0"/>
            <parent link="left_eskin_05-1axis"/>
            <child link="left_eskin_05-1flat-01"/>
            <axis xyz="0.0 0.0 1.0"/>
            <limit lower="-6.28318530718" upper="6.28318530718" effort="56.0" velocity="1.5708"/>
    </joint>

    <!--left arm 05-1lib-01 eskin model -->
    <link name="left_eskin_05-1flat-01">
        <visual>
            <origin xyz="0.0 0.0 0.0" rpy="0.0 0.0 0.0"/>
            <geometry>
                <mesh filename ="meshes/e_skin/05_meshs/flat_py.dae"/>
            </geometry>
            <material name = "LightGrey"/>
        </visual>
        <collision>
            <origin xyz="0.0 0.0 0.0" rpy="0.0 0.0 0.0"/>
        <geometry>
             <mesh filename ="meshes/e_skin/05_meshs/flat_py.stl"/>
        </geometry>
        </collision>
        <inertial>
            <origin xyz="0 0 0" rpy="0 0 0" />
            <mass value ="2.0"/>
            <inertia ixx="0.008093163" ixy="0.0" ixz="0.0" iyy="0.008093163" iyz="0.0" izz="0.005625"/>
        </inertial>
    </link>


     <!--left arm 05-1lib-02 eskin joint-->
     <joint name="left_eskin_05-1axis_to_left_eskin_05-1lib-02" type="fixed">
            <origin xyz="0.0 0.06 0.026" rpy="0.0 0.0 0.0"/>
            <parent link="left_eskin_05-1axis"/>
            <child link="left_eskin_05-1lib-02"/>
            <axis xyz="0.0 0.0 1.0"/>
            <limit lower="-6.28318530718" upper="6.28318530718" effort="56.0" velocity="1.5708"/>
    </joint>

    <!--left arm 05-1lib-02 eskin model -->
    <link name="left_eskin_05-1lib-02">
        <visual>
            <origin xyz="0.0 0.0 0.0" rpy="0.0 0.0 0.0"/>
            <geometry>
                <mesh filename ="meshes/e_skin/05_meshs/05_lib_py.dae"/>
            </geometry>
            <material name = "LightGrey"/>
        </visual>
        <collision>
            <origin xyz="0.0 0.0 0.0" rpy="0.0 0.0 0.0"/>
        <geometry>
             <mesh filename ="meshes/e_skin/05_meshs/05_lib_py.stl"/>
        </geometry>
        </collision>
        <inertial>
            <origin xyz="0 0 0" rpy="0 0 0" />
            <mass value ="2.0"/>
            <inertia ixx="0.008093163" ixy="0.0" ixz="0.0" iyy="0.008093163" iyz="0.0" izz="0.005625"/>
        </inertial>
    </link>

    <!--left arm 05-1lib-03 eskin joint-->
    <joint name="left_eskin_05-1axis_to_left_eskin_05-1lib-03" type="fixed">
            <origin xyz="0.042426 0.042426 0.026" rpy="0.0 0.0 -0.785375"/>
            <parent link="left_eskin_05-1axis"/>
            <child link="left_eskin_05-1lib-03"/>
            <axis xyz="0.0 0.0 1.0"/>
            <limit lower="-6.28318530718" upper="6.28318530718" effort="56.0" velocity="1.5708"/>
    </joint>

    <!--left arm 05-1lib-03 eskin model -->
    <link name="left_eskin_05-1lib-03">
        <visual>
            <origin xyz="0.0 0.0 0.0" rpy="0.0 0.0 0.0"/>
            <geometry>
                <mesh filename ="meshes/e_skin/05_meshs/05_lib_py.dae"/>
            </geometry>
            <material name = "LightGrey"/>
        </visual>
        <collision>
            <origin xyz="0.0 0.0 0.0" rpy="0.0 0.0 0.0"/>
        <geometry>
             <mesh filename ="meshes/e_skin/05_meshs/05_lib_py.stl"/>
        </geometry>
        </collision>
        <inertial>
            <origin xyz="0 0 0" rpy="0 0 0" />
            <mass value ="2.0"/>
            <inertia ixx="0.008093163" ixy="0.0" ixz="0.0" iyy="0.008093163" iyz="0.0" izz="0.005625"/>
        </inertial>
    </link>

    <!--left arm 05-1lib-04 eskin joint-->
    <joint name="left_eskin_05-1axis_to_left_eskin_05-1lib-04" type="fixed">
            <origin xyz="0.06 0.0 0.026" rpy="0.0 0.0 -1.5708"/>
            <parent link="left_eskin_05-1axis"/>
            <child link="left_eskin_05-1lib-04"/>
            <axis xyz="0.0 0.0 1.0"/>
            <limit lower="-6.28318530718" upper="6.28318530718" effort="56.0" velocity="1.5708"/>
    </joint>

    <!--left arm 05-1lib-04 eskin model -->
    <link name="left_eskin_05-1lib-04">
        <visual>
            <origin xyz="0.0 0.0 0.0" rpy="0.0 0.0 0.0"/>
            <geometry>
                <mesh filename ="meshes/e_skin/05_meshs/05_lib_py.dae"/>
            </geometry>
            <material name = "LightGrey"/>
        </visual>
        <collision>
            <origin xyz="0.0 0.0 0.0" rpy="0.0 0.0 0.0"/>
        <geometry>
             <mesh filename ="meshes/e_skin/05_meshs/05_lib_py.stl"/>
        </geometry>
        </collision>
        <inertial>
            <origin xyz="0 0 0" rpy="0 0 0" />
            <mass value ="2.0"/>
            <inertia ixx="0.008093163" ixy="0.0" ixz="0.0" iyy="0.008093163" iyz="0.0" izz="0.005625"/>
        </inertial>
    </link>


    <!--left arm 05-1lib-05 eskin joint-->
    <joint name="left_eskin_05-1axis_to_left_eskin_05-1lib-05" type="fixed">
            <origin xyz="0.042426 -0.042426 0.026" rpy="0.0 0.0 -2.3636"/>
            <parent link="left_eskin_05-1axis"/>
            <child link="left_eskin_05-1lib-05"/>
            <axis xyz="0.0 0.0 1.0"/>
            <limit lower="-6.28318530718" upper="6.28318530718" effort="56.0" velocity="1.5708"/>
    </joint>

    <!--left arm 05-1lib-05 eskin model -->
    <link name="left_eskin_05-1lib-05">
        <visual>
            <origin xyz="0.0 0.0 0.0" rpy="0.0 0.0 0.0"/>
            <geometry>
                <mesh filename ="meshes/e_skin/05_meshs/05_lib_py.dae"/>
            </geometry>
            <material name = "LightGrey"/>
        </visual>
        <collision>
            <origin xyz="0.0 0.0 0.0" rpy="0.0 0.0 0.0"/>
        <geometry>
             <mesh filename ="meshes/e_skin/05_meshs/05_lib_py.stl"/>
        </geometry>
        </collision>
        <inertial>
            <origin xyz="0 0 0" rpy="0 0 0" />
            <mass value ="2.0"/>
            <inertia ixx="0.008093163" ixy="0.0" ixz="0.0" iyy="0.008093163" iyz="0.0" izz="0.005625"/>
        </inertial>
    </link>

    <!--left arm 05-1lib-06 eskin joint-->
    <joint name="left_eskin_05-1axis_to_left_eskin_05-1lib-06" type="fixed">
            <origin xyz="0.0 -0.06 0.026" rpy="0.0 0.0 -3.14159"/>
            <parent link="left_eskin_05-1axis"/>
            <child link="left_eskin_05-1lib-06"/>
            <axis xyz="0.0 0.0 1.0"/>
            <limit lower="-6.28318530718" upper="6.28318530718" effort="56.0" velocity="1.5708"/>
    </joint>

    <!--left arm 05-1lib-06 eskin model -->
    <link name="left_eskin_05-1lib-06">
        <visual>
            <origin xyz="0.0 0.0 0.0" rpy="0.0 0.0 0.0"/>
            <geometry>
                <mesh filename ="meshes/e_skin/05_meshs/05_lib_py.dae"/>
            </geometry>
            <material name = "LightGrey"/>
        </visual>
        <collision>
            <origin xyz="0.0 0.0 0.0" rpy="0.0 0.0 0.0"/>
        <geometry>
             <mesh filename ="meshes/e_skin/05_meshs/05_lib_py.stl"/>
        </geometry>
        </collision>
        <inertial>
            <origin xyz="0 0 0" rpy="0 0 0" />
            <mass value ="2.0"/>
            <inertia ixx="0.008093163" ixy="0.0" ixz="0.0" iyy="0.008093163" iyz="0.0" izz="0.005625"/>
        </inertial>
    </link>

    <!--left arm 05-1lib-07 eskin joint-->
    <joint name="left_eskin_05-1axis_to_left_eskin_05-1flat-07" type="fixed">
            <origin xyz="-0.0394 -0.05648 0.026" rpy="-1.5708 0.5235 0.0"/>
            <parent link="left_eskin_05-1axis"/>
            <child link="left_eskin_05-1flat-07"/>
            <axis xyz="0.0 0.0 1.0"/>
            <limit lower="-6.28318530718" upper="6.28318530718" effort="56.0" velocity="1.5708"/>
    </joint>

    <!--left arm 05-1lib-07 eskin model -->
    <link name="left_eskin_05-1flat-07">
        <visual>
            <origin xyz="0.0 0.0 0.0" rpy="0.0 0.0 0.0"/>
            <geometry>
                <mesh filename ="meshes/e_skin/05_meshs/flat_py.dae"/>
            </geometry>
            <material name = "LightGrey"/>
        </visual>
        <collision>
            <origin xyz="0.0 0.0 0.0" rpy="0.0 0.0 0.0"/>
        <geometry>
             <mesh filename ="meshes/e_skin/05_meshs/flat_py.stl"/>
        </geometry>
        </collision>
        <inertial>
            <origin xyz="0 0 0" rpy="0 0 0" />
            <mass value ="2.0"/>
            <inertia ixx="0.008093163" ixy="0.0" ixz="0.0" iyy="0.008093163" iyz="0.0" izz="0.005625"/>
        </inertial>
    </link>



    <!-- left_arm 05-1 eskin second  culon -->

    <!--left arm 05-1lib-08 eskin joint-->
    <joint name="left_eskin_05-1axis_to_left_eskin_05-1lib-08" type="fixed">
            <origin xyz="-0.022961 0.055432 0.0605" rpy="0.0 0.0 0.3926"/>
            <parent link="left_eskin_05-1axis"/>
            <child link="left_eskin_05-1lib-08"/>
            <axis xyz="0.0 0.0 1.0"/>
            <limit lower="-6.28318530718" upper="6.28318530718" effort="56.0" velocity="1.5708"/>
    </joint>

    <!--left arm 05-1lib-08 eskin model -->
    <link name="left_eskin_05-1lib-08">
        <visual>
            <origin xyz="0.0 0.0 0.0" rpy="0.0 0.0 0.0"/>
            <geometry>
                <mesh filename ="meshes/e_skin/05_meshs/05_lib_py.dae"/>
            </geometry>
            <material name = "LightGrey"/>
        </visual>
        <collision>
            <origin xyz="0.0 0.0 0.0" rpy="0.0 0.0 0.0"/>
        <geometry>
             <mesh filename ="meshes/e_skin/05_meshs/05_lib_py.stl"/>
        </geometry>
        </collision>
        <inertial>
            <origin xyz="0 0 0" rpy="0 0 0" />
            <mass value ="2.0"/>
            <inertia ixx="0.008093163" ixy="0.0" ixz="0.0" iyy="0.008093163" iyz="0.0" izz="0.005625"/>
        </inertial>
    </link>


    <!--left arm 05-1lib-09 eskin joint-->
    <joint name="left_eskin_05-1axis_to_left_eskin_05-1lib-09" type="fixed">
            <origin xyz="0.022961 0.055432 0.0605" rpy="0.0 0.0 -0.3926"/>
            <parent link="left_eskin_05-1axis"/>
            <child link="left_eskin_05-1lib-09"/>
            <axis xyz="0.0 0.0 1.0"/>
            <limit lower="-6.28318530718" upper="6.28318530718" effort="56.0" velocity="1.5708"/>
    </joint>

    <!--left arm 05-1lib-09 eskin model -->
    <link name="left_eskin_05-1lib-09">
        <visual>
            <origin xyz="0.0 0.0 0.0" rpy="0.0 0.0 0.0"/>
            <geometry>
                <mesh filename ="meshes/e_skin/05_meshs/05_lib_py.dae"/>
            </geometry>
            <material name = "LightGrey"/>
        </visual>
        <collision>
            <origin xyz="0.0 0.0 0.0" rpy="0.0 0.0 0.0"/>
        <geometry>
             <mesh filename ="meshes/e_skin/05_meshs/05_lib_py.stl"/>
        </geometry>
        </collision>
        <inertial>
            <origin xyz="0 0 0" rpy="0 0 0" />
            <mass value ="2.0"/>
            <inertia ixx="0.008093163" ixy="0.0" ixz="0.0" iyy="0.008093163" iyz="0.0" izz="0.005625"/>
        </inertial>
    </link>


    <!--left arm 05-1lib-10 eskin joint-->
    <joint name="left_eskin_05-1axis_to_left_eskin_05-1lib-10" type="fixed">
            <origin xyz="0.055432  0.022961 0.0605" rpy="0.0 0.0 -1.1781"/>
            <parent link="left_eskin_05-1axis"/>
            <child link="left_eskin_05-1lib-10"/>
            <axis xyz="0.0 0.0 1.0"/>
            <limit lower="-6.28318530718" upper="6.28318530718" effort="56.0" velocity="1.5708"/>
    </joint>

    <!--left arm 05-1lib-10 eskin model -->
    <link name="left_eskin_05-1lib-10">
        <visual>
            <origin xyz="0.0 0.0 0.0" rpy="0.0 0.0 0.0"/>
            <geometry>
                <mesh filename ="meshes/e_skin/05_meshs/05_lib_py.dae"/>
            </geometry>
            <material name = "LightGrey"/>
        </visual>
        <collision>
            <origin xyz="0.0 0.0 0.0" rpy="0.0 0.0 0.0"/>
        <geometry>
             <mesh filename ="meshes/e_skin/05_meshs/05_lib_py.stl"/>
        </geometry>
        </collision>
        <inertial>
            <origin xyz="0 0 0" rpy="0 0 0" />
            <mass value ="2.0"/>
            <inertia ixx="0.008093163" ixy="0.0" ixz="0.0" iyy="0.008093163" iyz="0.0" izz="0.005625"/>
        </inertial>
    </link>

    <!--left arm 05-1lib-11 eskin joint-->
    <joint name="left_eskin_05-1axis_to_left_eskin_05-1lib-11" type="fixed">
            <origin xyz="0.05531 -0.02296 0.0605" rpy="0.0 0.0 -1.96349"/>
            <parent link="left_eskin_05-1axis"/>
            <child link="left_eskin_05-1lib-11"/>
            <axis xyz="0.0 0.0 1.0"/>
            <limit lower="-6.28318530718" upper="6.28318530718" effort="56.0" velocity="1.5708"/>
    </joint>

    <!--left arm 05-1lib-11 eskin model -->
    <link name="left_eskin_05-1lib-11">
        <visual>
            <origin xyz="0.0 0.0 0.0" rpy="0.0 0.0 0.0"/>
            <geometry>
                <mesh filename ="meshes/e_skin/05_meshs/05_lib_py.dae"/>
            </geometry>
            <material name = "LightGrey"/>
        </visual>
        <collision>
            <origin xyz="0.0 0.0 0.0" rpy="0.0 0.0 0.0"/>
        <geometry>
             <mesh filename ="meshes/e_skin/05_meshs/05_lib_py.stl"/>
        </geometry>
        </collision>
        <inertial>
            <origin xyz="0 0 0" rpy="0 0 0" />
            <mass value ="2.0"/>
            <inertia ixx="0.008093163" ixy="0.0" ixz="0.0" iyy="0.008093163" iyz="0.0" izz="0.005625"/>
        </inertial>
    </link>

    <!--left arm 05-1lib-12 eskin joint-->
    <joint name="left_eskin_05-1axis_to_left_eskin_05-1lib-12" type="fixed">
            <origin xyz="0.022961 -0.055432 0.0605" rpy="0.0 0.0 -2.74889"/>
            <parent link="left_eskin_05-1axis"/>
            <child link="left_eskin_05-1lib-12"/>
            <axis xyz="0.0 0.0 1.0"/>
            <limit lower="-6.28318530718" upper="6.28318530718" effort="56.0" velocity="1.5708"/>
    </joint>

    <!--left arm 05-1lib-12 eskin model -->
    <link name="left_eskin_05-1lib-12">
        <visual>
            <origin xyz="0.0 0.0 0.0" rpy="0.0 0.0 0.0"/>
            <geometry>
                <mesh filename ="meshes/e_skin/05_meshs/05_lib_py.dae"/>
            </geometry>
            <material name = "LightGrey"/>
        </visual>
        <collision>
            <origin xyz="0.0 0.0 0.0" rpy="0.0 0.0 0.0"/>
        <geometry>
             <mesh filename ="meshes/e_skin/05_meshs/05_lib_py.stl"/>
        </geometry>
        </collision>
        <inertial>
            <origin xyz="0 0 0" rpy="0 0 0" />
            <mass value ="2.0"/>
            <inertia ixx="0.008093163" ixy="0.0" ixz="0.0" iyy="0.008093163" iyz="0.0" izz="0.005625"/>
        </inertial>
    </link>

    <!--left arm 05-1lib-13 eskin joint-->
    <joint name="left_eskin_05-1axis_to_left_eskin_05-1lib-13" type="fixed">
            <origin xyz="-0.022961 -0.055432 0.0605" rpy="0.0 0.0 -3.53428"/>
            <parent link="left_eskin_05-1axis"/>
            <child link="left_eskin_05-1lib-13"/>
            <axis xyz="0.0 0.0 1.0"/>
            <limit lower="-6.28318530718" upper="6.28318530718" effort="56.0" velocity="1.5708"/>
    </joint>

    <!--left arm 05-1lib-13 eskin model -->
    <link name="left_eskin_05-1lib-13">
        <visual>
            <origin xyz="0.0 0.0 0.0" rpy="0.0 0.0 0.0"/>
            <geometry>
                <mesh filename ="meshes/e_skin/05_meshs/05_lib_py.dae"/>
            </geometry>
            <material name = "LightGrey"/>
        </visual>
        <collision>
            <origin xyz="0.0 0.0 0.0" rpy="0.0 0.0 0.0"/>
        <geometry>
             <mesh filename ="meshes/e_skin/05_meshs/05_lib_py.stl"/>
        </geometry>
        </collision>
        <inertial>
            <origin xyz="0 0 0" rpy="0 0 0" />
            <mass value ="2.0"/>
            <inertia ixx="0.008093163" ixy="0.0" ixz="0.0" iyy="0.008093163" iyz="0.0" izz="0.005625"/>
        </inertial>
    </link>



     <!-- left_arm 05-1 eskin third  culon -->

     <joint name="left_eskin_05-1axis_to_left_eskin_05-1flat-14" type="fixed">
            <origin xyz="-0.0394 0.05648 0.095" rpy="-1.5708 0.5235 0.0"/>
            <parent link="left_eskin_05-1axis"/>
            <child link="left_eskin_05-1flat-14"/>
            <axis xyz="0.0 0.0 1.0"/>
            <limit lower="-6.28318530718" upper="6.28318530718" effort="56.0" velocity="1.5708"/>
    </joint>

    <!--left arm 05-1lib-14 eskin model -->
    <link name="left_eskin_05-1flat-14">
        <visual>
            <origin xyz="0.0 0.0 0.0" rpy="0.0 0.0 0.0"/>
            <geometry>
                <mesh filename ="meshes/e_skin/05_meshs/flat_py.dae"/>
            </geometry>
            <material name = "LightGrey"/>
        </visual>
        <collision>
            <origin xyz="0.0 0.0 0.0" rpy="0.0 0.0 0.0"/>
        <geometry>
             <mesh filename ="meshes/e_skin/05_meshs/flat_py.stl"/>
        </geometry>
        </collision>
        <inertial>
            <origin xyz="0 0 0" rpy="0 0 0" />
            <mass value ="2.0"/>
            <inertia ixx="0.008093163" ixy="0.0" ixz="0.0" iyy="0.008093163" iyz="0.0" izz="0.005625"/>
        </inertial>
    </link>

    <!--left arm 05-1lib-15 eskin joint-->
     <joint name="left_eskin_05-1axis_to_left_eskin_05-1lib-15" type="fixed">
            <origin xyz="0.0 0.06 0.095" rpy="0.0 0.0 0.0"/>
            <parent link="left_eskin_05-1axis"/>
            <child link="left_eskin_05-1lib-15"/>
            <axis xyz="0.0 0.0 1.0"/>
            <limit lower="-6.28318530718" upper="6.28318530718" effort="56.0" velocity="1.5708"/>
    </joint>

    <!--left arm 05-1lib-15 eskin model -->
    <link name="left_eskin_05-1lib-15">
        <visual>
            <origin xyz="0.0 0.0 0.0" rpy="0.0 0.0 0.0"/>
            <geometry>
                <mesh filename ="meshes/e_skin/05_meshs/05_lib_py.dae"/>
            </geometry>
            <material name = "LightGrey"/>
        </visual>
        <collision>
            <origin xyz="0.0 0.0 0.0" rpy="0.0 0.0 0.0"/>
        <geometry>
             <mesh filename ="meshes/e_skin/05_meshs/05_lib_py.stl"/>
        </geometry>
        </collision>
        <inertial>
            <origin xyz="0 0 0" rpy="0 0 0" />
            <mass value ="2.0"/>
            <inertia ixx="0.008093163" ixy="0.0" ixz="0.0" iyy="0.008093163" iyz="0.0" izz="0.005625"/>
        </inertial>
    </link>

    <!--left arm 05-1lib-16 eskin joint-->
    <joint name="left_eskin_05-1axis_to_left_eskin_05-1lib-16" type="fixed">
            <origin xyz="0.042426 0.042426 0.095" rpy="0.0 0.0 -0.785375"/>
            <parent link="left_eskin_05-1axis"/>
            <child link="left_eskin_05-1lib-16"/>
            <axis xyz="0.0 0.0 1.0"/>
            <limit lower="-6.28318530718" upper="6.28318530718" effort="56.0" velocity="1.5708"/>
    </joint>

    <!--left arm 05-1lib-16 eskin model -->
    <link name="left_eskin_05-1lib-16">
        <visual>
            <origin xyz="0.0 0.0 0.0" rpy="0.0 0.0 0.0"/>
            <geometry>
                <mesh filename ="meshes/e_skin/05_meshs/05_lib_py.dae"/>
            </geometry>
            <material name = "LightGrey"/>
        </visual>
        <collision>
            <origin xyz="0.0 0.0 0.0" rpy="0.0 0.0 0.0"/>
        <geometry>
             <mesh filename ="meshes/e_skin/05_meshs/05_lib_py.stl"/>
        </geometry>
        </collision>
        <inertial>
            <origin xyz="0 0 0" rpy="0 0 0" />
            <mass value ="2.0"/>
            <inertia ixx="0.008093163" ixy="0.0" ixz="0.0" iyy="0.008093163" iyz="0.0" izz="0.005625"/>
        </inertial>
    </link>

    <!--left arm 05-1lib-17 eskin joint-->
    <joint name="left_eskin_05-1axis_to_left_eskin_05-1lib-17" type="fixed">
            <origin xyz="0.06 0.0 0.095" rpy="0.0 0.0 -1.5708"/>
            <parent link="left_eskin_05-1axis"/>
            <child link="left_eskin_05-1lib-17"/>
            <axis xyz="0.0 0.0 1.0"/>
            <limit lower="-6.28318530718" upper="6.28318530718" effort="56.0" velocity="1.5708"/>
    </joint>

    <!--left arm 05-1lib-17 eskin model -->
    <link name="left_eskin_05-1lib-17">
        <visual>
            <origin xyz="0.0 0.0 0.0" rpy="0.0 0.0 0.0"/>
            <geometry>
                <mesh filename ="meshes/e_skin/05_meshs/05_lib_py.dae"/>
            </geometry>
            <material name = "LightGrey"/>
        </visual>
        <collision>
            <origin xyz="0.0 0.0 0.0" rpy="0.0 0.0 0.0"/>
        <geometry>
             <mesh filename ="meshes/e_skin/05_meshs/05_lib_py.stl"/>
        </geometry>
        </collision>
        <inertial>
            <origin xyz="0 0 0" rpy="0 0 0" />
            <mass value ="2.0"/>
            <inertia ixx="0.008093163" ixy="0.0" ixz="0.0" iyy="0.008093163" iyz="0.0" izz="0.005625"/>
        </inertial>
    </link>


    <!--left arm 05-1lib-18 eskin joint-->
    <joint name="left_eskin_05-1axis_to_left_eskin_05-1lib-18" type="fixed">
            <origin xyz="0.042426 -0.042426 0.095" rpy="0.0 0.0 -2.3636"/>
            <parent link="left_eskin_05-1axis"/>
            <child link="left_eskin_05-1lib-18"/>
            <axis xyz="0.0 0.0 1.0"/>
            <limit lower="-6.28318530718" upper="6.28318530718" effort="56.0" velocity="1.5708"/>
    </joint>

    <!--left arm 05-1lib-18 eskin model -->
    <link name="left_eskin_05-1lib-18">
        <visual>
            <origin xyz="0.0 0.0 0.0" rpy="0.0 0.0 0.0"/>
            <geometry>
                <mesh filename ="meshes/e_skin/05_meshs/05_lib_py.dae"/>
            </geometry>
            <material name = "LightGrey"/>
        </visual>
        <collision>
            <origin xyz="0.0 0.0 0.0" rpy="0.0 0.0 0.0"/>
        <geometry>
             <mesh filename ="meshes/e_skin/05_meshs/05_lib_py.stl"/>
        </geometry>
        </collision>
        <inertial>
            <origin xyz="0 0 0" rpy="0 0 0" />
            <mass value ="2.0"/>
            <inertia ixx="0.008093163" ixy="0.0" ixz="0.0" iyy="0.008093163" iyz="0.0" izz="0.005625"/>
        </inertial>
    </link>

    <!--left arm 05-1lib-19 eskin joint-->
    <joint name="left_eskin_05-1axis_to_left_eskin_05-1lib-19" type="fixed">
            <origin xyz="0.0 -0.06 0.095" rpy="0.0 0.0 -3.14159"/>
            <parent link="left_eskin_05-1axis"/>
            <child link="left_eskin_05-1lib-19"/>
            <axis xyz="0.0 0.0 1.0"/>
            <limit lower="-6.28318530718" upper="6.28318530718" effort="56.0" velocity="1.5708"/>
    </joint>

    <!--left arm 05-1lib-19 eskin model -->
    <link name="left_eskin_05-1lib-19">
        <visual>
            <origin xyz="0.0 0.0 0.0" rpy="0.0 0.0 0.0"/>
            <geometry>
                <mesh filename ="meshes/e_skin/05_meshs/05_lib_py.dae"/>
            </geometry>
            <material name = "LightGrey"/>
        </visual>
        <collision>
            <origin xyz="0.0 0.0 0.0" rpy="0.0 0.0 0.0"/>
        <geometry>
             <mesh filename ="meshes/e_skin/05_meshs/05_lib_py.stl"/>
        </geometry>
        </collision>
        <inertial>
            <origin xyz="0 0 0" rpy="0 0 0" />
            <mass value ="2.0"/>
            <inertia ixx="0.008093163" ixy="0.0" ixz="0.0" iyy="0.008093163" iyz="0.0" izz="0.005625"/>
        </inertial>
    </link>

    <!--left arm 05-1lib-20 eskin joint-->
    <joint name="left_eskin_05-1axis_to_left_eskin_05-1flat-20" type="fixed">
            <origin xyz="-0.0394 -0.05648 0.095" rpy="1.5708 0.5235 0.0"/>
            <parent link="left_eskin_05-1axis"/>
            <child link="left_eskin_05-1flat-20"/>
            <axis xyz="0.0 0.0 1.0"/>
            <limit lower="-6.28318530718" upper="6.28318530718" effort="56.0" velocity="1.5708"/>
    </joint>

    <!--left arm 05-1lib-20 eskin model -->
    <link name="left_eskin_05-1flat-20">
        <visual>
            <origin xyz="0.0 0.0 0.0" rpy="0.0 0.0 0.0"/>
            <geometry>
                <mesh filename ="meshes/e_skin/05_meshs/flat_py.dae"/>
            </geometry>
            <material name = "LightGrey"/>
        </visual>
        <collision>
            <origin xyz="0.0 0.0 0.0" rpy="0.0 0.0 0.0"/>
        <geometry>
             <mesh filename ="meshes/e_skin/05_meshs/flat_py.stl"/>
        </geometry>
        </collision>
        <inertial>
            <origin xyz="0 0 0" rpy="0 0 0" />
            <mass value ="2.0"/>
            <inertia ixx="0.008093163" ixy="0.0" ixz="0.0" iyy="0.008093163" iyz="0.0" izz="0.005625"/>
        </inertial>
    </link>

     <!-- left_arm 05-1 eskin flat  culon -->

    <!--left arm 05-1lib-21 eskin joint -->
     <joint name="left_eskin_05-1axis_to_left_eskin_05-1flat-21" type="fixed">
            <origin xyz="0.0125 -0.02165 0.135" rpy="0.0 0.0 -0.5235"/>
            <parent link="left_eskin_05-1axis"/>
            <child link="left_eskin_05-1flat-21"/>
            <axis xyz="0.0 0.0 1.0"/>
            <limit lower="-6.28318530718" upper="6.28318530718" effort="56.0" velocity="1.5708"/>
    </joint>

    <!--left arm 05-1lib-21 eskin model -->
    <link name="left_eskin_05-1flat-21">
        <visual>
            <origin xyz="0.0 0.0 0.0" rpy="0.0 0.0 0.0"/>
            <geometry>
                <mesh filename ="meshes/e_skin/05_meshs/flat_py.dae"/>
            </geometry>
            <material name = "LightGrey"/>
        </visual>
        <collision>
            <origin xyz="0.0 0.0 0.0" rpy="0.0 0.0 0.0"/>
        <geometry>
             <mesh filename ="meshes/e_skin/05_meshs/flat_py.stl"/>
        </geometry>
        </collision>
        <inertial>
            <origin xyz="0 0 0" rpy="0 0 0" />
            <mass value ="2.0"/>
            <inertia ixx="0.008093163" ixy="0.0" ixz="0.0" iyy="0.008093163" iyz="0.0" izz="0.005625"/>
        </inertial>
    </link>

     <joint name="left_eskin_05-1axis_to_left_eskin_05-1flat-22" type="fixed">
            <origin xyz="0.0125 0.02165 0.135" rpy="0.0 0.0 0.5235"/>
            <parent link="left_eskin_05-1axis"/>
            <child link="left_eskin_05-1flat-22"/>
            <axis xyz="0.0 0.0 1.0"/>
            <limit lower="-6.28318530718" upper="6.28318530718" effort="56.0" velocity="1.5708"/>
    </joint>

    <!--left arm 05-1lib-22 eskin model -->
    <link name="left_eskin_05-1flat-22">
        <visual>
            <origin xyz="0.0 0.0 0.0" rpy="0.0 0.0 0.0"/>
            <geometry>
                <mesh filename ="meshes/e_skin/05_meshs/flat_py.dae"/>
            </geometry>
            <material name = "LightGrey"/>
        </visual>
        <collision>
            <origin xyz="0.0 0.0 0.0" rpy="0.0 0.0 0.0"/>
        <geometry>
             <mesh filename ="meshes/e_skin/05_meshs/flat_py.stl"/>
        </geometry>
        </collision>
        <inertial>
            <origin xyz="0 0 0" rpy="0 0 0" />
            <mass value ="2.0"/>
            <inertia ixx="0.008093163" ixy="0.0" ixz="0.0" iyy="0.008093163" iyz="0.0" izz="0.005625"/>
        </inertial>
    </link>


    <joint name="left_eskin_05-1axis_to_left_eskin_05-1flat-23" type="fixed">
            <origin xyz="-0.025 0.0 0.135" rpy="0.0 0.0 0.0"/>
            <parent link="left_eskin_05-1axis"/>
            <child link="left_eskin_05-1flat-23"/>
            <axis xyz="0.0 0.0 1.0"/>
            <limit lower="-6.28318530718" upper="6.28318530718" effort="56.0" velocity="1.5708"/>
    </joint>

    <!--left arm 05-1lib-23 eskin model -->
    <link name="left_eskin_05-1flat-23">
        <visual>
            <origin xyz="0.0 0.0 0.0" rpy="0.0 0.0 0.0"/>
            <geometry>
                <mesh filename ="meshes/e_skin/05_meshs/flat_py.dae"/>
            </geometry>
            <material name = "LightGrey"/>
        </visual>
        <collision>
            <origin xyz="0.0 0.0 0.0" rpy="0.0 0.0 0.0"/>
        <geometry>
             <mesh filename ="meshes/e_skin/05_meshs/flat_py.stl"/>
        </geometry>
        </collision>
        <inertial>
            <origin xyz="0 0 0" rpy="0 0 0" />
            <mass value ="2.0"/>
            <inertia ixx="0.008093163" ixy="0.0" ixz="0.0" iyy="0.008093163" iyz="0.0" izz="0.005625"/>
        </inertial>
    </link>




     <!--left arm 04 eskin joint-->
     <joint name="left_upper_arm_link_to_left_eskin_04axis" type="fixed">
            <origin xyz="-0.08 0.0 0.1195" rpy="0.0 0.0 3.14159"/>
            <parent link="left_upper_arm_link"/>
            <child link="left_eskin_04axis"/>
            <axis xyz="0.0 0.0 1.0"/>
            <limit lower="-6.28318530718" upper="6.28318530718" effort="56.0" velocity="1.5708"/>
    </joint>

    <!--left arm 04 eskin model -->
    <link name="left_eskin_04axis">
        <visual>
            <origin xyz="0.0 0.0 0.0" rpy="0.0 0.0 0.0"/>
            <geometry>
                <mesh filename ="meshes/e_skin/04_meshs/04_axis_py.dae"/>
            </geometry>
            <material name = "LightGrey"/>
        </visual>
        <collision>
            <origin xyz="0.0 0.0 0.0" rpy="0.0 0.0 0.0"/>
        <geometry>
             <mesh filename ="meshes/e_skin/04_meshs/04_axis_py.stl"/>
        </geometry>
        </collision>
        <inertial>
            <origin xyz="0 0 0" rpy="0 0 0" />
            <mass value ="2.0"/>
            <inertia ixx="0.008093163" ixy="0.0" ixz="0.0" iyy="0.008093163" iyz="0.0" izz="0.005625"/>
        </inertial>
    </link>

    <!-- left_arm  04 eskin first  culon -->

    <!--left arm 04 eskin lib 01 joint-->
    <joint name="left_eskin_04axis_to_left_eskin_04-1axis-01" type="fixed">
            <origin xyz="0.02179 0.044 0.0" rpy="0.0 0.0 0.0"/>
            <parent link="left_eskin_04axis"/>
            <child link="left_eskin_04-1axis-01"/>
            <axis xyz="0.0 0.0 1.0"/>
            <limit lower="-6.28318530718" upper="6.28318530718" effort="56.0" velocity="1.5708"/>
    </joint>

    <!--left arm 05-2lib-05 eskin model -->
    <link name="left_eskin_04-1axis-01">
        <visual>
            <origin xyz="0.0 0.0 0.0" rpy="0.0 0.0 0.0"/>
            <geometry>
                <mesh filename ="meshes/e_skin/04_meshs/04_lib_py.dae"/>
            </geometry>
            <material name = "LightGrey"/>
        </visual>
        <collision>
            <origin xyz="0.0 0.0 0.0" rpy="0.0 0.0 0.0"/>
        <geometry>
             <mesh filename ="meshes/e_skin/04_meshs/04_lib_py.stl"/>
        </geometry>
        </collision>
        <inertial>
            <origin xyz="0 0 0" rpy="0 0 0" />
            <mass value ="2.0"/>
            <inertia ixx="0.008093163" ixy="0.0" ixz="0.0" iyy="0.008093163" iyz="0.0" izz="0.005625"/>
        </inertial>
    </link>


     <!--left arm 04 eskin lib 02 joint-->
    <joint name="left_eskin_04axis_to_left_eskin_04-2axis-02" type="fixed">
            <origin xyz="0.02179 0.031125 0.0311" rpy="0.706825 0.0 0.0"/>
            <parent link="left_eskin_04axis"/>
            <child link="left_eskin_04-1axis-02"/>
            <axis xyz="0.0 0.0 1.0"/>
            <limit lower="-6.28318530718" upper="6.28318530718" effort="56.0" velocity="1.5708"/>
    </joint>

    <!--left arm 05-2lib-05 eskin model -->
    <link name="left_eskin_04-1axis-02">
        <visual>
            <origin xyz="0.0 0.0 0.0" rpy="0.0 0.0 0.0"/>
            <geometry>
                <mesh filename ="meshes/e_skin/04_meshs/04_lib_py.dae"/>
            </geometry>
            <material name = "LightGrey"/>
        </visual>
        <collision>
            <origin xyz="0.0 0.0 0.0" rpy="0.0 0.0 0.0"/>
        <geometry>
             <mesh filename ="meshes/e_skin/04_meshs/04_lib_py.stl"/>
        </geometry>
        </collision>
        <inertial>
            <origin xyz="0 0 0" rpy="0 0 0" />
            <mass value ="2.0"/>
            <inertia ixx="0.008093163" ixy="0.0" ixz="0.0" iyy="0.008093163" iyz="0.0" izz="0.005625"/>
        </inertial>
    </link>

     <!--left arm 04 eskin lib 03 joint-->
    <joint name="left_eskin_04axis_to_left_eskin_04-2axis-03" type="fixed">
            <origin xyz="0.02179 0.0 0.0439" rpy="1.57 0.0 0.0"/>
            <parent link="left_eskin_04axis"/>
            <child link="left_eskin_04-1axis-03"/>
            <axis xyz="0.0 0.0 1.0"/>
            <limit lower="-6.28318530718" upper="6.28318530718" effort="56.0" velocity="1.5708"/>
    </joint>

    <!--left arm 05-2lib-05 eskin model -->
    <link name="left_eskin_04-1axis-03">
        <visual>
            <origin xyz="0.0 0.0 0.0" rpy="0.0 0.0 0.0"/>
            <geometry>
                <mesh filename ="meshes/e_skin/04_meshs/04_lib_py.dae"/>
            </geometry>
            <material name = "LightGrey"/>
        </visual>
        <collision>
            <origin xyz="0.0 0.0 0.0" rpy="0.0 0.0 0.0"/>
        <geometry>
             <mesh filename ="meshes/e_skin/04_meshs/04_lib_py.stl"/>
        </geometry>
        </collision>
        <inertial>
            <origin xyz="0 0 0" rpy="0 0 0" />
            <mass value ="2.0"/>
            <inertia ixx="0.008093163" ixy="0.0" ixz="0.0" iyy="0.008093163" iyz="0.0" izz="0.005625"/>
        </inertial>
    </link>

    <!--left arm 04 eskin lib 04 joint-->
    <joint name="left_eskin_04axis_to_left_eskin_04-2axis-04" type="fixed">
            <origin xyz="0.02179 -0.031075 0.0311498" rpy="2.355 0.0 0.0"/>
            <parent link="left_eskin_04axis"/>
            <child link="left_eskin_04-1axis-04"/>
            <axis xyz="0.0 0.0 1.0"/>
            <limit lower="-6.28318530718" upper="6.28318530718" effort="56.0" velocity="1.5708"/>
    </joint>

    <!--left arm 05-2lib-05 eskin model -->
    <link name="left_eskin_04-1axis-04">
        <visual>
            <origin xyz="0.0 0.0 0.0" rpy="0.0 0.0 0.0"/>
            <geometry>
                <mesh filename ="meshes/e_skin/04_meshs/04_lib_py.dae"/>
            </geometry>
            <material name = "LightGrey"/>
        </visual>
        <collision>
            <origin xyz="0.0 0.0 0.0" rpy="0.0 0.0 0.0"/>
        <geometry>
             <mesh filename ="meshes/e_skin/04_meshs/04_lib_py.stl"/>
        </geometry>
        </collision>
        <inertial>
            <origin xyz="0 0 0" rpy="0 0 0" />
            <mass value ="2.0"/>
            <inertia ixx="0.008093163" ixy="0.0" ixz="0.0" iyy="0.008093163" iyz="0.0" izz="0.005625"/>
        </inertial>
    </link>


    <!--left arm 04 eskin lib 05 joint-->
    <joint name="left_eskin_04axis_to_left_eskin_04-2axis-05" type="fixed">
            <origin xyz="0.02179 -0.044 0.0" rpy="3.14 0.0 0.0"/>
            <parent link="left_eskin_04axis"/>
            <child link="left_eskin_04-1axis-05"/>
            <axis xyz="0.0 0.0 1.0"/>
            <limit lower="-6.28318530718" upper="6.28318530718" effort="56.0" velocity="1.5708"/>
    </joint>

    <!--left arm 05-2lib-05 eskin model -->
    <link name="left_eskin_04-1axis-05">
        <visual>
            <origin xyz="0.0 0.0 0.0" rpy="0.0 0.0 0.0"/>
            <geometry>
                <mesh filename ="meshes/e_skin/04_meshs/04_lib_py.dae"/>
            </geometry>
            <material name = "LightGrey"/>
        </visual>
        <collision>
            <origin xyz="0.0 0.0 0.0" rpy="0.0 0.0 0.0"/>
        <geometry>
             <mesh filename ="meshes/e_skin/04_meshs/04_lib_py.stl"/>
        </geometry>
        </collision>
        <inertial>
            <origin xyz="0 0 0" rpy="0 0 0" />
            <mass value ="2.0"/>
            <inertia ixx="0.008093163" ixy="0.0" ixz="0.0" iyy="0.008093163" iyz="0.0" izz="0.005625"/>
        </inertial>
    </link>


     <!--left arm 04 eskin lib 06 joint-->
    <joint name="left_eskin_04axis_to_left_eskin_04-2axis-06" type="fixed">
            <origin xyz="0.02179 -0.03117 -0.03105" rpy=" 3.925 0.0 0.0"/>
            <parent link="left_eskin_04axis"/>
            <child link="left_eskin_04-1axis-06"/>
            <axis xyz="0.0 0.0 1.0"/>
            <limit lower="-6.28318530718" upper="6.28318530718" effort="56.0" velocity="1.5708"/>
    </joint>

    <!--left arm 05-2lib-06 eskin model -->
    <link name="left_eskin_04-1axis-06">
        <visual>
            <origin xyz="0.0 0.0 0.0" rpy="0.0 0.0 0.0"/>
            <geometry>
                <mesh filename ="meshes/e_skin/04_meshs/04_lib_py.dae"/>
            </geometry>
            <material name = "LightGrey"/>
        </visual>
        <collision>
            <origin xyz="0.0 0.0 0.0" rpy="0.0 0.0 0.0"/>
        <geometry>
             <mesh filename ="meshes/e_skin/04_meshs/04_lib_py.stl"/>
        </geometry>
        </collision>
        <inertial>
            <origin xyz="0 0 0" rpy="0 0 0" />
            <mass value ="2.0"/>
            <inertia ixx="0.008093163" ixy="0.0" ixz="0.0" iyy="0.008093163" iyz="0.0" izz="0.005625"/>
        </inertial>
    </link>


    <!--left arm 04 eskin lib 07 joint-->
    <joint name="left_eskin_04axis_to_left_eskin_04-2axis-07" type="fixed">
            <origin xyz="0.02179 -0.0 -0.044" rpy=" 4.71 0.0 0.0"/>
            <parent link="left_eskin_04axis"/>
            <child link="left_eskin_04-1axis-07"/>
            <axis xyz="0.0 0.0 1.0"/>
            <limit lower="-6.28318530718" upper="6.28318530718" effort="56.0" velocity="1.5708"/>
    </joint>

    <!--left arm 05-2lib-07 eskin model -->
    <link name="left_eskin_04-1axis-07">
        <visual>
            <origin xyz="0.0 0.0 0.0" rpy="0.0 0.0 0.0"/>
            <geometry>
                <mesh filename ="meshes/e_skin/04_meshs/04_lib_py.dae"/>
            </geometry>
            <material name = "LightGrey"/>
        </visual>
        <collision>
            <origin xyz="0.0 0.0 0.0" rpy="0.0 0.0 0.0"/>
        <geometry>
             <mesh filename ="meshes/e_skin/04_meshs/04_lib_py.stl"/>
        </geometry>
        </collision>
        <inertial>
            <origin xyz="0 0 0" rpy="0 0 0" />
            <mass value ="2.0"/>
            <inertia ixx="0.008093163" ixy="0.0" ixz="0.0" iyy="0.008093163" iyz="0.0" izz="0.005625"/>
        </inertial>
    </link>

    <!--left arm 04 eskin lib 08 joint-->
    <joint name="left_eskin_04axis_to_left_eskin_04-2axis-08" type="fixed">
            <origin xyz="0.02179 0.031025 -0.031199" rpy=" 5.495 0.0 0.0"/>
            <parent link="left_eskin_04axis"/>
            <child link="left_eskin_04-1axis-08"/>
            <axis xyz="0.0 0.0 1.0"/>
            <limit lower="-6.28318530718" upper="6.28318530718" effort="56.0" velocity="1.5708"/>
    </joint>

    <!--left arm 05-2lib-08 eskin model -->
    <link name="left_eskin_04-1axis-08">
        <visual>
            <origin xyz="0.0 0.0 0.0" rpy="0.0 0.0 0.0"/>
            <geometry>
                <mesh filename ="meshes/e_skin/04_meshs/04_lib_py.dae"/>
            </geometry>
            <material name = "LightGrey"/>
        </visual>
        <collision>
            <origin xyz="0.0 0.0 0.0" rpy="0.0 0.0 0.0"/>
        <geometry>
             <mesh filename ="meshes/e_skin/04_meshs/04_lib_py.stl"/>
        </geometry>
        </collision>
        <inertial>
            <origin xyz="0 0 0" rpy="0 0 0" />
            <mass value ="2.0"/>
            <inertia ixx="0.008093163" ixy="0.0" ixz="0.0" iyy="0.008093163" iyz="0.0" izz="0.005625"/>
        </inertial>
    </link>



    <!-- left_arm  04 eskin second  culon -->

    <!--left arm 04 eskin lib 09 joint-->
    <joint name="left_eskin_04axis_to_left_eskin_04-1axis-09" type="fixed">
            <origin xyz="0.05058 0.04065 0.016829" rpy="0.3925 0.0 0.0"/>
            <parent link="left_eskin_04axis"/>
            <child link="left_eskin_04-1axis-00"/>
            <axis xyz="0.0 0.0 1.0"/>
            <limit lower="-6.28318530718" upper="6.28318530718" effort="56.0" velocity="1.5708"/>
    </joint>

    <!--left arm 05-2lib-09 eskin model -->
    <link name="left_eskin_04-1axis-00">
        <visual>
            <origin xyz="0.0 0.0 0.0" rpy="0.0 0.0 0.0"/>
            <geometry>
                <mesh filename ="meshes/e_skin/04_meshs/04_lib_py.dae"/>
            </geometry>
            <material name = "LightGrey"/>
        </visual>
        <collision>
            <origin xyz="0.0 0.0 0.0" rpy="0.0 0.0 0.0"/>
        <geometry>
             <mesh filename ="meshes/e_skin/04_meshs/04_lib_py.stl"/>
        </geometry>
        </collision>
        <inertial>
            <origin xyz="0 0 0" rpy="0 0 0" />
            <mass value ="2.0"/>
            <inertia ixx="0.008093163" ixy="0.0" ixz="0.0" iyy="0.008093163" iyz="0.0" izz="0.005625"/>
        </inertial>
    </link>


     <!--left arm 04 eskin lib 10 joint-->
    <joint name="left_eskin_04axis_to_left_eskin_04-2axis-10" type="fixed">
            <origin xyz="0.05058 0.0168625 0.04064" rpy="1.1775 0.0 0.0"/>
            <parent link="left_eskin_04axis"/>
            <child link="left_eskin_04-1axis-10"/>
            <axis xyz="0.0 0.0 1.0"/>
            <limit lower="-6.28318530718" upper="6.28318530718" effort="56.0" velocity="1.5708"/>
    </joint>

    <!--left arm 05-2lib-10 eskin model -->
    <link name="left_eskin_04-1axis-10">
        <visual>
            <origin xyz="0.0 0.0 0.0" rpy="0.0 0.0 0.0"/>
            <geometry>
                <mesh filename ="meshes/e_skin/04_meshs/04_lib_py.dae"/>
            </geometry>
            <material name = "LightGrey"/>
        </visual>
        <collision>
            <origin xyz="0.0 0.0 0.0" rpy="0.0 0.0 0.0"/>
        <geometry>
             <mesh filename ="meshes/e_skin/04_meshs/04_lib_py.stl"/>
        </geometry>
        </collision>
        <inertial>
            <origin xyz="0 0 0" rpy="0 0 0" />
            <mass value ="2.0"/>
            <inertia ixx="0.008093163" ixy="0.0" ixz="0.0" iyy="0.008093163" iyz="0.0" izz="0.005625"/>
        </inertial>
    </link>

     <!--left arm 04 eskin lib 11 joint-->
    <joint name="left_eskin_04axis_to_left_eskin_04-2axis-11" type="fixed">
            <origin xyz="0.05058 -0.01679 0.040667" rpy="1.9625 0.0 0.0"/>
            <parent link="left_eskin_04axis"/>
            <child link="left_eskin_04-1axis-11"/>
            <axis xyz="0.0 0.0 1.0"/>
            <limit lower="-6.28318530718" upper="6.28318530718" effort="56.0" velocity="1.5708"/>
    </joint>

    <!--left arm 05-2lib-05 eskin model -->
    <link name="left_eskin_04-1axis-11">
        <visual>
            <origin xyz="0.0 0.0 0.0" rpy="0.0 0.0 0.0"/>
            <geometry>
                <mesh filename ="meshes/e_skin/04_meshs/04_lib_py.dae"/>
            </geometry>
            <material name = "LightGrey"/>
        </visual>
        <collision>
            <origin xyz="0.0 0.0 0.0" rpy="0.0 0.0 0.0"/>
        <geometry>
             <mesh filename ="meshes/e_skin/04_meshs/04_lib_py.stl"/>
        </geometry>
        </collision>
        <inertial>
            <origin xyz="0 0 0" rpy="0 0 0" />
            <mass value ="2.0"/>
            <inertia ixx="0.008093163" ixy="0.0" ixz="0.0" iyy="0.008093163" iyz="0.0" izz="0.005625"/>
        </inertial>
    </link>

    <!--left arm 04 eskin lib 12 joint-->
    <joint name="left_eskin_04axis_to_left_eskin_04-2axis-12" type="fixed">
            <origin xyz="0.05058 -0.040627 0.0168947" rpy="2.7475 0.0 0.0"/>
            <parent link="left_eskin_04axis"/>
            <child link="left_eskin_04-1axis-12"/>
            <axis xyz="0.0 0.0 1.0"/>
            <limit lower="-6.28318530718" upper="6.28318530718" effort="56.0" velocity="1.5708"/>
    </joint>

    <!--left arm 05-2lib-05 eskin model -->
    <link name="left_eskin_04-1axis-12">
        <visual>
            <origin xyz="0.0 0.0 0.0" rpy="0.0 0.0 0.0"/>
            <geometry>
                <mesh filename ="meshes/e_skin/04_meshs/04_lib_py.dae"/>
            </geometry>
            <material name = "LightGrey"/>
        </visual>
        <collision>
            <origin xyz="0.0 0.0 0.0" rpy="0.0 0.0 0.0"/>
        <geometry>
             <mesh filename ="meshes/e_skin/04_meshs/04_lib_py.stl"/>
        </geometry>
        </collision>
        <inertial>
            <origin xyz="0 0 0" rpy="0 0 0" />
            <mass value ="2.0"/>
            <inertia ixx="0.008093163" ixy="0.0" ixz="0.0" iyy="0.008093163" iyz="0.0" izz="0.005625"/>
        </inertial>
    </link>


    <!--left arm 04 eskin lib 13 joint-->
    <joint name="left_eskin_04axis_to_left_eskin_04-2axis-13" type="fixed">
            <origin xyz="0.05058 -0.04068 -0.01676" rpy="3.5325 0.0 0.0"/>
            <parent link="left_eskin_04axis"/>
            <child link="left_eskin_04-1axis-13"/>
            <axis xyz="0.0 0.0 1.0"/>
            <limit lower="-6.28318530718" upper="6.28318530718" effort="56.0" velocity="1.5708"/>
    </joint>

    <!--left arm 05-2lib-13 eskin model -->
    <link name="left_eskin_04-1axis-13">
        <visual>
            <origin xyz="0.0 0.0 0.0" rpy="0.0 0.0 0.0"/>
            <geometry>
                <mesh filename ="meshes/e_skin/04_meshs/04_lib_py.dae"/>
            </geometry>
            <material name = "LightGrey"/>
        </visual>
        <collision>
            <origin xyz="0.0 0.0 0.0" rpy="0.0 0.0 0.0"/>
        <geometry>
             <mesh filename ="meshes/e_skin/04_meshs/04_lib_py.stl"/>
        </geometry>
        </collision>
        <inertial>
            <origin xyz="0 0 0" rpy="0 0 0" />
            <mass value ="2.0"/>
            <inertia ixx="0.008093163" ixy="0.0" ixz="0.0" iyy="0.008093163" iyz="0.0" izz="0.005625"/>
        </inertial>
    </link>


     <!--left arm 04 eskin lib 14 joint-->
    <joint name="left_eskin_04axis_to_left_eskin_04-2axis-14" type="fixed">
            <origin xyz="0.05058 -0.016927 -0.040613" rpy=" 4.3175 0.0 0.0"/>
            <parent link="left_eskin_04axis"/>
            <child link="left_eskin_04-1axis-14"/>
            <axis xyz="0.0 0.0 1.0"/>
            <limit lower="-6.28318530718" upper="6.28318530718" effort="56.0" velocity="1.5708"/>
    </joint>

    <!--left arm 05-2lib-14 eskin model -->
    <link name="left_eskin_04-1axis-14">
        <visual>
            <origin xyz="0.0 0.0 0.0" rpy="0.0 0.0 0.0"/>
            <geometry>
                <mesh filename ="meshes/e_skin/04_meshs/04_lib_py.dae"/>
            </geometry>
            <material name = "LightGrey"/>
        </visual>
        <collision>
            <origin xyz="0.0 0.0 0.0" rpy="0.0 0.0 0.0"/>
        <geometry>
             <mesh filename ="meshes/e_skin/04_meshs/04_lib_py.stl"/>
        </geometry>
        </collision>
        <inertial>
            <origin xyz="0 0 0" rpy="0 0 0" />
            <mass value ="2.0"/>
            <inertia ixx="0.008093163" ixy="0.0" ixz="0.0" iyy="0.008093163" iyz="0.0" izz="0.005625"/>
        </inertial>
    </link>


    <!--left arm 04 eskin lib 15 joint-->
    <joint name="left_eskin_04axis_to_left_eskin_04-2axis-15" type="fixed">
            <origin xyz="0.05058 0.0167328  -0.04069" rpy=" 5.1025 0.0 0.0"/>
            <parent link="left_eskin_04axis"/>
            <child link="left_eskin_04-1axis-15"/>
            <axis xyz="0.0 0.0 1.0"/>
            <limit lower="-6.28318530718" upper="6.28318530718" effort="56.0" velocity="1.5708"/>
    </joint>

    <!--left arm 05-2lib-15 eskin model -->
    <link name="left_eskin_04-1axis-15">
        <visual>
            <origin xyz="0.0 0.0 0.0" rpy="0.0 0.0 0.0"/>
            <geometry>
                <mesh filename ="meshes/e_skin/04_meshs/04_lib_py.dae"/>
            </geometry>
            <material name = "LightGrey"/>
        </visual>
        <collision>
            <origin xyz="0.0 0.0 0.0" rpy="0.0 0.0 0.0"/>
        <geometry>
             <mesh filename ="meshes/e_skin/04_meshs/04_lib_py.stl"/>
        </geometry>
        </collision>
        <inertial>
            <origin xyz="0 0 0" rpy="0 0 0" />
            <mass value ="2.0"/>
            <inertia ixx="0.008093163" ixy="0.0" ixz="0.0" iyy="0.008093163" iyz="0.0" izz="0.005625"/>
        </inertial>
    </link>

    <!--left arm 04 eskin lib 16 joint-->
    <joint name="left_eskin_04axis_to_left_eskin_04-2axis-16" type="fixed">
            <origin xyz="0.05058 0.0406 -0.0169" rpy=" 5.8875 0.0 0.0"/>
            <parent link="left_eskin_04axis"/>
            <child link="left_eskin_04-1axis-16"/>
            <axis xyz="0.0 0.0 1.0"/>
            <limit lower="-6.28318530718" upper="6.28318530718" effort="56.0" velocity="1.5708"/>
    </joint>

    <!--left arm 05-2lib-16 eskin model -->
    <link name="left_eskin_04-1axis-16">
        <visual>
            <origin xyz="0.0 0.0 0.0" rpy="0.0 0.0 0.0"/>
            <geometry>
                <mesh filename ="meshes/e_skin/04_meshs/04_lib_py.dae"/>
            </geometry>
            <material name = "LightGrey"/>
        </visual>
        <collision>
            <origin xyz="0.0 0.0 0.0" rpy="0.0 0.0 0.0"/>
        <geometry>
             <mesh filename ="meshes/e_skin/04_meshs/04_lib_py.stl"/>
        </geometry>
        </collision>
        <inertial>
            <origin xyz="0 0 0" rpy="0 0 0" />
            <mass value ="2.0"/>
            <inertia ixx="0.008093163" ixy="0.0" ixz="0.0" iyy="0.008093163" iyz="0.0" izz="0.005625"/>
        </inertial>
    </link>

    <!-- left_arm  04 eskin third  culon -->

    <!--left arm 04 eskin lib 17 joint-->
    <joint name="left_eskin_04axis_to_left_eskin_04-1axis-17" type="fixed">
            <origin xyz="0.07937 0.044 0.0" rpy="0.0 0.0 0.0"/>
            <parent link="left_eskin_04axis"/>
            <child link="left_eskin_04-1axis-17"/>
            <axis xyz="0.0 0.0 1.0"/>
            <limit lower="-6.28318530718" upper="6.28318530718" effort="56.0" velocity="1.5708"/>
    </joint>

    <!--left arm 05-2lib-17 eskin model -->
    <link name="left_eskin_04-1axis-17">
        <visual>
            <origin xyz="0.0 0.0 0.0" rpy="0.0 0.0 0.0"/>
            <geometry>
                <mesh filename ="meshes/e_skin/04_meshs/04_lib_py.dae"/>
            </geometry>
            <material name = "LightGrey"/>
        </visual>
        <collision>
            <origin xyz="0.0 0.0 0.0" rpy="0.0 0.0 0.0"/>
        <geometry>
             <mesh filename ="meshes/e_skin/04_meshs/04_lib_py.stl"/>
        </geometry>
        </collision>
        <inertial>
            <origin xyz="0 0 0" rpy="0 0 0" />
            <mass value ="2.0"/>
            <inertia ixx="0.008093163" ixy="0.0" ixz="0.0" iyy="0.008093163" iyz="0.0" izz="0.005625"/>
        </inertial>
    </link>


     <!--left arm 04 eskin lib 18 joint-->
    <joint name="left_eskin_04axis_to_left_eskin_04-2axis-18" type="fixed">
            <origin xyz="0.07937 0.031125 0.0311" rpy="0.706825 0.0 0.0"/>
            <parent link="left_eskin_04axis"/>
            <child link="left_eskin_04-1axis-18"/>
            <axis xyz="0.0 0.0 1.0"/>
            <limit lower="-6.28318530718" upper="6.28318530718" effort="56.0" velocity="1.5708"/>
    </joint>

    <!--left arm 05-2lib-18 eskin model -->
    <link name="left_eskin_04-1axis-18">
        <visual>
            <origin xyz="0.0 0.0 0.0" rpy="0.0 0.0 0.0"/>
            <geometry>
                <mesh filename ="meshes/e_skin/04_meshs/04_lib_py.dae"/>
            </geometry>
            <material name = "LightGrey"/>
        </visual>
        <collision>
            <origin xyz="0.0 0.0 0.0" rpy="0.0 0.0 0.0"/>
        <geometry>
             <mesh filename ="meshes/e_skin/04_meshs/04_lib_py.stl"/>
        </geometry>
        </collision>
        <inertial>
            <origin xyz="0 0 0" rpy="0 0 0" />
            <mass value ="2.0"/>
            <inertia ixx="0.008093163" ixy="0.0" ixz="0.0" iyy="0.008093163" iyz="0.0" izz="0.005625"/>
        </inertial>
    </link>

     <!--left arm 04 eskin lib 19 joint-->
    <joint name="left_eskin_04axis_to_left_eskin_04-2axis-19" type="fixed">
            <origin xyz="0.07937 0.0 0.0439" rpy="1.57 0.0 0.0"/>
            <parent link="left_eskin_04axis"/>
            <child link="left_eskin_04-1axis-19"/>
            <axis xyz="0.0 0.0 1.0"/>
            <limit lower="-6.28318530718" upper="6.28318530718" effort="56.0" velocity="1.5708"/>
    </joint>

    <!--left arm 05-2lib-19 eskin model -->
    <link name="left_eskin_04-1axis-19">
        <visual>
            <origin xyz="0.0 0.0 0.0" rpy="0.0 0.0 0.0"/>
            <geometry>
                <mesh filename ="meshes/e_skin/04_meshs/04_lib_py.dae"/>
            </geometry>
            <material name = "LightGrey"/>
        </visual>
        <collision>
            <origin xyz="0.0 0.0 0.0" rpy="0.0 0.0 0.0"/>
        <geometry>
             <mesh filename ="meshes/e_skin/04_meshs/04_lib_py.stl"/>
        </geometry>
        </collision>
        <inertial>
            <origin xyz="0 0 0" rpy="0 0 0" />
            <mass value ="2.0"/>
            <inertia ixx="0.008093163" ixy="0.0" ixz="0.0" iyy="0.008093163" iyz="0.0" izz="0.005625"/>
        </inertial>
    </link>

    <!--left arm 04 eskin lib 20 joint-->
    <joint name="left_eskin_04axis_to_left_eskin_04-2axis-20" type="fixed">
            <origin xyz="0.07937 -0.031075 0.0311498" rpy="2.355 0.0 0.0"/>
            <parent link="left_eskin_04axis"/>
            <child link="left_eskin_04-1axis-20"/>
            <axis xyz="0.0 0.0 1.0"/>
            <limit lower="-6.28318530718" upper="6.28318530718" effort="56.0" velocity="1.5708"/>
    </joint>

    <!--left arm 05-2lib-05 eskin model -->
    <link name="left_eskin_04-1axis-20">
        <visual>
            <origin xyz="0.0 0.0 0.0" rpy="0.0 0.0 0.0"/>
            <geometry>
                <mesh filename ="meshes/e_skin/04_meshs/04_lib_py.dae"/>
            </geometry>
            <material name = "LightGrey"/>
        </visual>
        <collision>
            <origin xyz="0.0 0.0 0.0" rpy="0.0 0.0 0.0"/>
        <geometry>
             <mesh filename ="meshes/e_skin/04_meshs/04_lib_py.stl"/>
        </geometry>
        </collision>
        <inertial>
            <origin xyz="0 0 0" rpy="0 0 0" />
            <mass value ="2.0"/>
            <inertia ixx="0.008093163" ixy="0.0" ixz="0.0" iyy="0.008093163" iyz="0.0" izz="0.005625"/>
        </inertial>
    </link>

    <!--left arm 04 eskin lib 21 joint-->
    <joint name="left_eskin_04axis_to_left_eskin_04-2axis-21" type="fixed">
            <origin xyz="0.07937 -0.044 0.0" rpy="3.14 0.0 0.0"/>
            <parent link="left_eskin_04axis"/>
            <child link="left_eskin_04-1axis-21"/>
            <axis xyz="0.0 0.0 1.0"/>
            <limit lower="-6.28318530718" upper="6.28318530718" effort="56.0" velocity="1.5708"/>
    </joint>

    <!--left arm 04 lib-21 eskin model -->
    <link name="left_eskin_04-1axis-21">
        <visual>
            <origin xyz="0.0 0.0 0.0" rpy="0.0 0.0 0.0"/>
            <geometry>
                <mesh filename ="meshes/e_skin/04_meshs/04_lib_py.dae"/>
            </geometry>
            <material name = "LightGrey"/>
        </visual>
        <collision>
            <origin xyz="0.0 0.0 0.0" rpy="0.0 0.0 0.0"/>
        <geometry>
             <mesh filename ="meshes/e_skin/04_meshs/04_lib_py.stl"/>
        </geometry>
        </collision>
        <inertial>
            <origin xyz="0 0 0" rpy="0 0 0" />
            <mass value ="2.0"/>
            <inertia ixx="0.008093163" ixy="0.0" ixz="0.0" iyy="0.008093163" iyz="0.0" izz="0.005625"/>
        </inertial>
    </link>


     <!--left arm 04 eskin lib 22 joint-->
    <joint name="left_eskin_04axis_to_left_eskin_04-2axis-22" type="fixed">
            <origin xyz="0.07937 -0.03117 -0.03105" rpy=" 3.925 0.0 0.0"/>
            <parent link="left_eskin_04axis"/>
            <child link="left_eskin_04-1axis-22"/>
            <axis xyz="0.0 0.0 1.0"/>
            <limit lower="-6.28318530718" upper="6.28318530718" effort="56.0" velocity="1.5708"/>
    </joint>

    <!--left arm 05-2lib-22 eskin model -->
    <link name="left_eskin_04-1axis-22">
        <visual>
            <origin xyz="0.0 0.0 0.0" rpy="0.0 0.0 0.0"/>
            <geometry>
                <mesh filename ="meshes/e_skin/04_meshs/04_lib_py.dae"/>
            </geometry>
            <material name = "LightGrey"/>
        </visual>
        <collision>
            <origin xyz="0.0 0.0 0.0" rpy="0.0 0.0 0.0"/>
        <geometry>
             <mesh filename ="meshes/e_skin/04_meshs/04_lib_py.stl"/>
        </geometry>
        </collision>
        <inertial>
            <origin xyz="0 0 0" rpy="0 0 0" />
            <mass value ="2.0"/>
            <inertia ixx="0.008093163" ixy="0.0" ixz="0.0" iyy="0.008093163" iyz="0.0" izz="0.005625"/>
        </inertial>
    </link>


    <!--left arm 04 eskin lib 23 joint-->
    <joint name="left_eskin_04axis_to_left_eskin_04-2axis-23" type="fixed">
            <origin xyz="0.07937 -0.0 -0.044" rpy=" 4.71 0.0 0.0"/>
            <parent link="left_eskin_04axis"/>
            <child link="left_eskin_04-1axis-23"/>
            <axis xyz="0.0 0.0 1.0"/>
            <limit lower="-6.28318530718" upper="6.28318530718" effort="56.0" velocity="1.5708"/>
    </joint>

    <!--left arm 05-2lib-23 eskin model -->
    <link name="left_eskin_04-1axis-23">
        <visual>
            <origin xyz="0.0 0.0 0.0" rpy="0.0 0.0 0.0"/>
            <geometry>
                <mesh filename ="meshes/e_skin/04_meshs/04_lib_py.dae"/>
            </geometry>
            <material name = "LightGrey"/>
        </visual>
        <collision>
            <origin xyz="0.0 0.0 0.0" rpy="0.0 0.0 0.0"/>
        <geometry>
             <mesh filename ="meshes/e_skin/04_meshs/04_lib_py.stl"/>
        </geometry>
        </collision>
        <inertial>
            <origin xyz="0 0 0" rpy="0 0 0" />
            <mass value ="2.0"/>
            <inertia ixx="0.008093163" ixy="0.0" ixz="0.0" iyy="0.008093163" iyz="0.0" izz="0.005625"/>
        </inertial>
    </link>

    <!--left arm 04 eskin lib 24 joint-->
    <joint name="left_eskin_04axis_to_left_eskin_04-2axis-24" type="fixed">
            <origin xyz="0.07937 0.031025 -0.031199" rpy=" 5.495 0.0 0.0"/>
            <parent link="left_eskin_04axis"/>
            <child link="left_eskin_04-1axis-24"/>
            <axis xyz="0.0 0.0 1.0"/>
            <limit lower="-6.28318530718" upper="6.28318530718" effort="56.0" velocity="1.5708"/>
    </joint>

    <!--left arm 05-2lib-24 eskin model -->
    <link name="left_eskin_04-1axis-24">
        <visual>
            <origin xyz="0.0 0.0 0.0" rpy="0.0 0.0 0.0"/>
            <geometry>
                <mesh filename ="meshes/e_skin/04_meshs/04_lib_py.dae"/>
            </geometry>
            <material name = "LightGrey"/>
        </visual>
        <collision>
            <origin xyz="0.0 0.0 0.0" rpy="0.0 0.0 0.0"/>
        <geometry>
             <mesh filename ="meshes/e_skin/04_meshs/04_lib_py.stl"/>
        </geometry>
        </collision>
        <inertial>
            <origin xyz="0 0 0" rpy="0 0 0" />
            <mass value ="2.0"/>
            <inertia ixx="0.008093163" ixy="0.0" ixz="0.0" iyy="0.008093163" iyz="0.0" izz="0.005625"/>
        </inertial>
    </link>




    <!--left arm 03 eskin joint-->
     <joint name="left_upper_arm_link_to_left_eskin_03axis" type="fixed">
            <origin xyz="-0.2435 0.0 0.0796" rpy="0.0 0.0 0.0"/>
            <parent link="left_upper_arm_link"/>
            <child link="left_eskin_03axis"/>
            <axis xyz="0.0 0.0 1.0"/>
            <limit lower="-6.28318530718" upper="6.28318530718" effort="56.0" velocity="1.5708"/>
    </joint>

    <!--left arm 03 eskin model -->
    <link name="left_eskin_03axis">
        <visual>
            <origin xyz="0.0 0.0 0.0" rpy="0.0 0.0 0.0"/>
            <geometry>
                <mesh filename ="meshes/e_skin/03_meshs/03_axis_py.dae"/>
            </geometry>
            <material name = "LightGrey"/>
        </visual>
        <collision>
            <origin xyz="0.0 0.0 0.0" rpy="0.0 0.0 0.0"/>
        <geometry>
             <mesh filename ="meshes/e_skin/03_meshs/03_axis_py.stl"/>
        </geometry>
        </collision>
        <inertial>
            <origin xyz="0 0 0" rpy="0 0 0" />
            <mass value ="2.0"/>
            <inertia ixx="0.008093163" ixy="0.0" ixz="0.0" iyy="0.008093163" iyz="0.0" izz="0.005625"/>
        </inertial>
    </link>

      <!-- left_arm  03 eskin first  culon -->

  <!--left arm 03 eskin lib 01 joint-->
    <joint name="left_eskin_03axis_to_left_eskin_03-axis-01" type="fixed">
            <origin xyz="0.00877 0.05024 0.023" rpy=" 0.0 0.0 -0.17444444"/>
            <parent link="left_eskin_03axis"/>
            <child link="left_eskin_03-axis-01"/>
            <axis xyz="0.0 0.0 1.0"/>
            <limit lower="-6.28318530718" upper="6.28318530718" effort="56.0" velocity="1.5708"/>
    </joint>

    <!--left arm 03 lib-01 eskin model -->
    <link name="left_eskin_03-axis-01">
        <visual>
            <origin xyz="0.0 0.0 0.0" rpy="0.0 0.0 0.0"/>
            <geometry>
                <mesh filename ="meshes/e_skin/03_meshs/03_lib_py.dae"/>
            </geometry>
            <material name = "LightGrey"/>
        </visual>
        <collision>
            <origin xyz="0.0 0.0 0.0" rpy="0.0 0.0 0.0"/>
        <geometry>
             <mesh filename ="meshes/e_skin/03_meshs/03_lib_py.stl"/>
        </geometry>
        </collision>
        <inertial>
            <origin xyz="0 0 0" rpy="0 0 0" />
            <mass value ="2.0"/>
            <inertia ixx="0.008093163" ixy="0.0" ixz="0.0" iyy="0.008093163" iyz="0.0" izz="0.005625"/>
        </inertial>
    </link>

      <!--left arm 03 eskin lib 02 joint-->
    <joint name="left_eskin_03axis_to_left_eskin_03-axis-02" type="fixed">
            <origin xyz="-0.03283 0.039027 0.023" rpy=" 0.0 0.0 0.69777"/>
            <parent link="left_eskin_03axis"/>
            <child link="left_eskin_03-axis-02"/>
            <axis xyz="0.0 0.0 1.0"/>
            <limit lower="-6.28318530718" upper="6.28318530718" effort="56.0" velocity="1.5708"/>
    </joint>

    <!--left arm 03 lib-02 eskin model -->
    <link name="left_eskin_03-axis-02">
        <visual>
            <origin xyz="0.0 0.0 0.0" rpy="0.0 0.0 0.0"/>
            <geometry>
                <mesh filename ="meshes/e_skin/03_meshs/03_lib_py.dae"/>
            </geometry>
            <material name = "LightGrey"/>
        </visual>
        <collision>
            <origin xyz="0.0 0.0 0.0" rpy="0.0 0.0 0.0"/>
        <geometry>
             <mesh filename ="meshes/e_skin/03_meshs/03_lib_py.stl"/>
        </geometry>
        </collision>
        <inertial>
            <origin xyz="0 0 0" rpy="0 0 0" />
            <mass value ="2.0"/>
            <inertia ixx="0.008093163" ixy="0.0" ixz="0.0" iyy="0.008093163" iyz="0.0" izz="0.005625"/>
        </inertial>
    </link>

    <!--left arm 03 eskin lib 03 joint-->
    <joint name="left_eskin_03axis_to_left_eskin_03-axis-03" type="fixed">
            <origin xyz="-0.051 0.0 0.023" rpy=" 0.0 0.0 1.5708"/>
            <parent link="left_eskin_03axis"/>
            <child link="left_eskin_03-axis-03"/>
            <axis xyz="0.0 0.0 1.0"/>
            <limit lower="-6.28318530718" upper="6.28318530718" effort="56.0" velocity="1.5708"/>
    </joint>

    <!--left arm 03 lib-03 eskin model -->
    <link name="left_eskin_03-axis-03">
        <visual>
            <origin xyz="0.0 0.0 0.0" rpy="0.0 0.0 0.0"/>
            <geometry>
                <mesh filename ="meshes/e_skin/03_meshs/03_lib_py.dae"/>
            </geometry>
            <material name = "LightGrey"/>
        </visual>
        <collision>
            <origin xyz="0.0 0.0 0.0" rpy="0.0 0.0 0.0"/>
        <geometry>
             <mesh filename ="meshes/e_skin/03_meshs/03_lib_py.stl"/>
        </geometry>
        </collision>
        <inertial>
            <origin xyz="0 0 0" rpy="0 0 0" />
            <mass value ="2.0"/>
            <inertia ixx="0.008093163" ixy="0.0" ixz="0.0" iyy="0.008093163" iyz="0.0" izz="0.005625"/>
        </inertial>
    </link>

    <!--left arm 03 eskin lib 04 joint-->
    <joint name="left_eskin_03axis_to_left_eskin_03-axis-04" type="fixed">
            <origin xyz="-0.03276 -0.0394 0.023" rpy=" 0.0 0.0 2.4422"/>
            <parent link="left_eskin_03axis"/>
            <child link="left_eskin_03-axis-04"/>
            <axis xyz="0.0 0.0 1.0"/>
            <limit lower="-6.28318530718" upper="6.28318530718" effort="56.0" velocity="1.5708"/>
    </joint>

    <!--left arm 03 lib-04 eskin model -->
    <link name="left_eskin_03-axis-04">
        <visual>
            <origin xyz="0.0 0.0 0.0" rpy="0.0 0.0 0.0"/>
            <geometry>
                <mesh filename ="meshes/e_skin/03_meshs/03_lib_py.dae"/>
            </geometry>
            <material name = "LightGrey"/>
        </visual>
        <collision>
            <origin xyz="0.0 0.0 0.0" rpy="0.0 0.0 0.0"/>
        <geometry>
             <mesh filename ="meshes/e_skin/03_meshs/03_lib_py.stl"/>
        </geometry>
        </collision>
        <inertial>
            <origin xyz="0 0 0" rpy="0 0 0" />
            <mass value ="2.0"/>
            <inertia ixx="0.008093163" ixy="0.0" ixz="0.0" iyy="0.008093163" iyz="0.0" izz="0.005625"/>
        </inertial>
    </link>

     <!--left arm 03 eskin lib 05 joint-->
    <joint name="left_eskin_03axis_to_left_eskin_03-axis-05" type="fixed">
            <origin xyz="0.00885 -0.0502 0.023" rpy=" 0.0 0.0 3.314"/>
            <parent link="left_eskin_03axis"/>
            <child link="left_eskin_03-axis-05"/>
            <axis xyz="0.0 0.0 1.0"/>
            <limit lower="-6.28318530718" upper="6.28318530718" effort="56.0" velocity="1.5708"/>
    </joint>

    <!--left arm 03 lib-05 eskin model -->
    <link name="left_eskin_03-axis-05">
        <visual>
            <origin xyz="0.0 0.0 0.0" rpy="0.0 0.0 0.0"/>
            <geometry>
                <mesh filename ="meshes/e_skin/03_meshs/03_lib_py.dae"/>
            </geometry>
            <material name = "LightGrey"/>
        </visual>
        <collision>
            <origin xyz="0.0 0.0 0.0" rpy="0.0 0.0 0.0"/>
        <geometry>
             <mesh filename ="meshes/e_skin/03_meshs/03_lib_py.stl"/>
        </geometry>
        </collision>
        <inertial>
            <origin xyz="0 0 0" rpy="0 0 0" />
            <mass value ="2.0"/>
            <inertia ixx="0.008093163" ixy="0.0" ixz="0.0" iyy="0.008093163" iyz="0.0" izz="0.005625"/>
        </inertial>
    </link>

    <!-- left_arm  03 eskin second  culon -->


    <!--left arm 03 eskin lib 06 joint-->
    <joint name="left_eskin_03axis_to_left_eskin_03-axis-06" type="fixed">
            <origin xyz="-0.011 -0.04979 0.0575" rpy=" 0.0 0.0 2.8347"/>
            <parent link="left_eskin_03axis"/>
            <child link="left_eskin_03-axis-06"/>
            <axis xyz="0.0 0.0 1.0"/>
            <limit lower="-6.28318530718" upper="6.28318530718" effort="56.0" velocity="1.5708"/>
    </joint>

    <!--left arm 03 lib-06 eskin model -->
    <link name="left_eskin_03-axis-06">
        <visual>
            <origin xyz="0.0 0.0 0.0" rpy="0.0 0.0 0.0"/>
            <geometry>
                <mesh filename ="meshes/e_skin/03_meshs/03_lib_py.dae"/>
            </geometry>
            <material name = "LightGrey"/>
        </visual>
        <collision>
            <origin xyz="0.0 0.0 0.0" rpy="0.0 0.0 0.0"/>
        <geometry>
             <mesh filename ="meshes/e_skin/03_meshs/03_lib_py.stl"/>
        </geometry>
        </collision>
        <inertial>
            <origin xyz="0 0 0" rpy="0 0 0" />
            <mass value ="2.0"/>
            <inertia ixx="0.008093163" ixy="0.0" ixz="0.0" iyy="0.008093163" iyz="0.0" izz="0.005625"/>
        </inertial>
    </link>


     <!--left arm 03 eskin lib 07 joint-->
    <joint name="left_eskin_03axis_to_left_eskin_03-axis-07" type="fixed">
            <origin xyz="-0.0154 0.0486 0.0575" rpy=" 0.0 0.0 0.218"/>
            <parent link="left_eskin_03axis"/>
            <child link="left_eskin_03-axis-07"/>
            <axis xyz="0.0 0.0 1.0"/>
            <limit lower="-6.28318530718" upper="6.28318530718" effort="56.0" velocity="1.5708"/>
    </joint>

    <!--left arm 03 lib-07 eskin model -->
    <link name="left_eskin_03-axis-07">
        <visual>
            <origin xyz="0.0 0.0 0.0" rpy="0.0 0.0 0.0"/>
            <geometry>
                <mesh filename ="meshes/e_skin/03_meshs/03_lib_py.dae"/>
            </geometry>
            <material name = "LightGrey"/>
        </visual>
        <collision>
            <origin xyz="0.0 0.0 0.0" rpy="0.0 0.0 0.0"/>
        <geometry>
             <mesh filename ="meshes/e_skin/03_meshs/03_lib_py.stl"/>
        </geometry>
        </collision>
        <inertial>
            <origin xyz="0 0 0" rpy="0 0 0" />
            <mass value ="2.0"/>
            <inertia ixx="0.008093163" ixy="0.0" ixz="0.0" iyy="0.008093163" iyz="0.0" izz="0.005625"/>
        </inertial>
    </link>

    <!--left arm 03 eskin lib 08 joint-->
    <joint name="left_eskin_03axis_to_left_eskin_03-axis-08" type="fixed">
            <origin xyz="-0.0471 0.0194 0.0575" rpy=" 0.0 0.0 1.09"/>
            <parent link="left_eskin_03axis"/>
            <child link="left_eskin_03-axis-08"/>
            <axis xyz="0.0 0.0 1.0"/>
            <limit lower="-6.28318530718" upper="6.28318530718" effort="56.0" velocity="1.5708"/>
    </joint>

    <!--left arm 03 lib-08 eskin model -->
    <link name="left_eskin_03-axis-08">
        <visual>
            <origin xyz="0.0 0.0 0.0" rpy="0.0 0.0 0.0"/>
            <geometry>
                <mesh filename ="meshes/e_skin/03_meshs/03_lib_py.dae"/>
            </geometry>
            <material name = "LightGrey"/>
        </visual>
        <collision>
            <origin xyz="0.0 0.0 0.0" rpy="0.0 0.0 0.0"/>
        <geometry>
             <mesh filename ="meshes/e_skin/03_meshs/03_lib_py.stl"/>
        </geometry>
        </collision>
        <inertial>
            <origin xyz="0 0 0" rpy="0 0 0" />
            <mass value ="2.0"/>
            <inertia ixx="0.008093163" ixy="0.0" ixz="0.0" iyy="0.008093163" iyz="0.0" izz="0.005625"/>
        </inertial>
    </link>

    <!--left arm 03 eskin lib 09 joint-->
    <joint name="left_eskin_03axis_to_left_eskin_03-axis-09" type="fixed">
            <origin xyz="-0.0452 -0.02357 0.0575" rpy=" 0.0 0.0 1.9625"/>
            <parent link="left_eskin_03axis"/>
            <child link="left_eskin_03-axis-09"/>
            <axis xyz="0.0 0.0 1.0"/>
            <limit lower="-6.28318530718" upper="6.28318530718" effort="56.0" velocity="1.5708"/>
    </joint>

    <!--left arm 03 lib-09 eskin model -->
    <link name="left_eskin_03-axis-09">
        <visual>
            <origin xyz="0.0 0.0 0.0" rpy="0.0 0.0 0.0"/>
            <geometry>
                <mesh filename ="meshes/e_skin/03_meshs/03_lib_py.dae"/>
            </geometry>
            <material name = "LightGrey"/>
        </visual>
        <collision>
            <origin xyz="0.0 0.0 0.0" rpy="0.0 0.0 0.0"/>
        <geometry>
             <mesh filename ="meshes/e_skin/03_meshs/03_lib_py.stl"/>
        </geometry>
        </collision>
        <inertial>
            <origin xyz="0 0 0" rpy="0 0 0" />
            <mass value ="2.0"/>
            <inertia ixx="0.008093163" ixy="0.0" ixz="0.0" iyy="0.008093163" iyz="0.0" izz="0.005625"/>
        </inertial>
    </link>

    
    <!-- left_arm  03 eskin third  culon -->

     <!--left arm 03 eskin lib 10 joint-->
    <joint name="left_eskin_03axis_to_left_eskin_03-axis-10" type="fixed">
            <origin xyz="0.00877 0.05024 0.092" rpy=" 0.0 0.0 -0.17444444"/>
            <parent link="left_eskin_03axis"/>
            <child link="left_eskin_03-axis-10"/>
            <axis xyz="0.0 0.0 1.0"/>
            <limit lower="-6.28318530718" upper="6.28318530718" effort="56.0" velocity="1.5708"/>
    </joint>

    <!--left arm 03 lib-10 eskin model -->
    <link name="left_eskin_03-axis-10">
        <visual>
            <origin xyz="0.0 0.0 0.0" rpy="0.0 0.0 0.0"/>
            <geometry>
                <mesh filename ="meshes/e_skin/03_meshs/03_lib_py.dae"/>
            </geometry>
            <material name = "LightGrey"/>
        </visual>
        <collision>
            <origin xyz="0.0 0.0 0.0" rpy="0.0 0.0 0.0"/>
        <geometry>
             <mesh filename ="meshes/e_skin/03_meshs/03_lib_py.stl"/>
        </geometry>
        </collision>
        <inertial>
            <origin xyz="0 0 0" rpy="0 0 0" />
            <mass value ="2.0"/>
            <inertia ixx="0.008093163" ixy="0.0" ixz="0.0" iyy="0.008093163" iyz="0.0" izz="0.005625"/>
        </inertial>
    </link>

     <!--left arm 03 eskin lib 11 joint-->
    <joint name="left_eskin_03axis_to_left_eskin_03-axis-11" type="fixed">
            <origin xyz="-0.03283 0.039027 0.092" rpy=" 0.0 0.0 0.69777"/>
            <parent link="left_eskin_03axis"/>
            <child link="left_eskin_03-axis-11"/>
            <axis xyz="0.0 0.0 1.0"/>
            <limit lower="-6.28318530718" upper="6.28318530718" effort="56.0" velocity="1.5708"/>
    </joint>

    <!--left arm 03 lib-11 eskin model -->
    <link name="left_eskin_03-axis-11">
        <visual>
            <origin xyz="0.0 0.0 0.0" rpy="0.0 0.0 0.0"/>
            <geometry>
                <mesh filename ="meshes/e_skin/03_meshs/03_lib_py.dae"/>
            </geometry>
            <material name = "LightGrey"/>
        </visual>
        <collision>
            <origin xyz="0.0 0.0 0.0" rpy="0.0 0.0 0.0"/>
        <geometry>
             <mesh filename ="meshes/e_skin/03_meshs/03_lib_py.stl"/>
        </geometry>
        </collision>
        <inertial>
            <origin xyz="0 0 0" rpy="0 0 0" />
            <mass value ="2.0"/>
            <inertia ixx="0.008093163" ixy="0.0" ixz="0.0" iyy="0.008093163" iyz="0.0" izz="0.005625"/>
        </inertial>
    </link>

 <!--left arm 03 eskin lib 12  joint-->
    <joint name="left_eskin_03axis_to_left_eskin_03-axis-12" type="fixed">
            <origin xyz="-0.051 0.0 0.092" rpy=" 0.0 0.0 1.5708"/>
            <parent link="left_eskin_03axis"/>
            <child link="left_eskin_03-axis-12"/>
            <axis xyz="0.0 0.0 1.0"/>
            <limit lower="-6.28318530718" upper="6.28318530718" effort="56.0" velocity="1.5708"/>
    </joint>

    <!--left arm 03 lib-12 eskin model -->
    <link name="left_eskin_03-axis-12">
        <visual>
            <origin xyz="0.0 0.0 0.0" rpy="0.0 0.0 0.0"/>
            <geometry>
                <mesh filename ="meshes/e_skin/03_meshs/03_lib_py.dae"/>
            </geometry>
            <material name = "LightGrey"/>
        </visual>
        <collision>
            <origin xyz="0.0 0.0 0.0" rpy="0.0 0.0 0.0"/>
        <geometry>
             <mesh filename ="meshes/e_skin/03_meshs/03_lib_py.stl"/>
        </geometry>
        </collision>
        <inertial>
            <origin xyz="0 0 0" rpy="0 0 0" />
            <mass value ="2.0"/>
            <inertia ixx="0.008093163" ixy="0.0" ixz="0.0" iyy="0.008093163" iyz="0.0" izz="0.005625"/>
        </inertial>
    </link>

    <!--left arm 03 eskin lib 13 joint-->
    <joint name="left_eskin_03axis_to_left_eskin_03-axis-13" type="fixed">
            <origin xyz="-0.03276 -0.0394 0.092" rpy=" 0.0 0.0 2.4422"/>
            <parent link="left_eskin_03axis"/>
            <child link="left_eskin_03-axis-13"/>
            <axis xyz="0.0 0.0 1.0"/>
            <limit lower="-6.28318530718" upper="6.28318530718" effort="56.0" velocity="1.5708"/>
    </joint>

    <!--left arm 03 lib-13 eskin model -->
    <link name="left_eskin_03-axis-13">
        <visual>
            <origin xyz="0.0 0.0 0.0" rpy="0.0 0.0 0.0"/>
            <geometry>
                <mesh filename ="meshes/e_skin/03_meshs/03_lib_py.dae"/>
            </geometry>
            <material name = "LightGrey"/>
        </visual>
        <collision>
            <origin xyz="0.0 0.0 0.0" rpy="0.0 0.0 0.0"/>
        <geometry>
             <mesh filename ="meshes/e_skin/03_meshs/03_lib_py.stl"/>
        </geometry>
        </collision>
        <inertial>
            <origin xyz="0 0 0" rpy="0 0 0" />
            <mass value ="2.0"/>
            <inertia ixx="0.008093163" ixy="0.0" ixz="0.0" iyy="0.008093163" iyz="0.0" izz="0.005625"/>
        </inertial>
    </link>

     <!--left arm 14 eskin lib 14 joint-->
    <joint name="left_eskin_03axis_to_left_eskin_03-axis-14" type="fixed">
            <origin xyz="0.00885 -0.0502 0.092" rpy=" 0.0 0.0 3.314"/>
            <parent link="left_eskin_03axis"/>
            <child link="left_eskin_03-axis-14"/>
            <axis xyz="0.0 0.0 1.0"/>
            <limit lower="-6.28318530718" upper="6.28318530718" effort="56.0" velocity="1.5708"/>
    </joint>

    <!--left arm 03 lib-14 eskin model -->
    <link name="left_eskin_03-axis-14">
        <visual>
            <origin xyz="0.0 0.0 0.0" rpy="0.0 0.0 0.0"/>
            <geometry>
                <mesh filename ="meshes/e_skin/03_meshs/03_lib_py.dae"/>
            </geometry>
            <material name = "LightGrey"/>
        </visual>
        <collision>
            <origin xyz="0.0 0.0 0.0" rpy="0.0 0.0 0.0"/>
        <geometry>
             <mesh filename ="meshes/e_skin/03_meshs/03_lib_py.stl"/>
        </geometry>
        </collision>
        <inertial>
            <origin xyz="0 0 0" rpy="0 0 0" />
            <mass value ="2.0"/>
            <inertia ixx="0.008093163" ixy="0.0" ixz="0.0" iyy="0.008093163" iyz="0.0" izz="0.005625"/>
        </inertial>
    </link>


    <!-- left_arm  03 eskin flat  culon -->

    <!--left arm 03 eskin lib 15  joint-->
    <joint name="left_eskin_03axis_to_left_eskin_03-axis-15" type="fixed">
            <origin xyz="0.023 0.0 0.1246" rpy=" 0.0 0.0 0.0"/>
            <parent link="left_eskin_03axis"/>
            <child link="left_eskin_03-axis-15"/>
            <axis xyz="0.0 0.0 1.0"/>
            <limit lower="-6.28318530718" upper="6.28318530718" effort="56.0" velocity="1.5708"/>
    </joint>

    <!--left arm 03 lib-15 eskin model -->
    <link name="left_eskin_03-axis-15">
        <visual>
            <origin xyz="0.0 0.0 0.0" rpy="0.0 0.0 0.0"/>
            <geometry>
                <mesh filename ="meshes/e_skin/03_meshs/flat_py.dae"/>
            </geometry>
            <material name = "LightGrey"/>
        </visual>
        <collision>
            <origin xyz="0.0 0.0 0.0" rpy="0.0 0.0 0.0"/>
        <geometry>
             <mesh filename ="meshes/e_skin/03_meshs/flat_py.stl"/>
        </geometry>
        </collision>
        <inertial>
            <origin xyz="0 0 0" rpy="0 0 0" />
            <mass value ="2.0"/>
            <inertia ixx="0.008093163" ixy="0.0" ixz="0.0" iyy="0.008093163" iyz="0.0" izz="0.005625"/>
        </inertial>
    </link>

    <!--left arm 03 eskin lib 16 joint-->
    <joint name="left_eskin_03axis_to_left_eskin_03-axis-16" type="fixed">
            <origin xyz="-0.0199 0.015 0.1246" rpy=" 0.0 0.0 0.0"/>
            <parent link="left_eskin_03axis"/>
            <child link="left_eskin_03-axis-16"/>
            <axis xyz="0.0 0.0 1.0"/>
            <limit lower="-6.28318530718" upper="6.28318530718" effort="56.0" velocity="1.5708"/>
    </joint>

    <!--left arm 03 lib-16 eskin model -->
    <link name="left_eskin_03-axis-16">
        <visual>
            <origin xyz="0.0 0.0 0.0" rpy="0.0 0.0 0.0"/>
            <geometry>
                <mesh filename ="meshes/e_skin/03_meshs/flat_py.dae"/>
            </geometry>
            <material name = "LightGrey"/>
        </visual>
        <collision>
            <origin xyz="0.0 0.0 0.0" rpy="0.0 0.0 0.0"/>
        <geometry>
             <mesh filename ="meshes/e_skin/03_meshs/flat_py.stl"/>
        </geometry>
        </collision>
        <inertial>
            <origin xyz="0 0 0" rpy="0 0 0" />
            <mass value ="2.0"/>
            <inertia ixx="0.008093163" ixy="0.0" ixz="0.0" iyy="0.008093163" iyz="0.0" izz="0.005625"/>
        </inertial>
    </link>

    <!--left arm 03 eskin lib 17 joint-->
    <joint name="left_eskin_03axis_to_left_eskin_03-axis-17" type="fixed">
            <origin xyz="-0.0199 -0.015 0.1246" rpy=" 0.0 0.0 0.0"/>
            <parent link="left_eskin_03axis"/>
            <child link="left_eskin_03-axis-17"/>
            <axis xyz="0.0 0.0 1.0"/>
            <limit lower="-6.28318530718" upper="6.28318530718" effort="56.0" velocity="1.5708"/>
    </joint>

    <!--left arm 03 lib-17 eskin model -->
    <link name="left_eskin_03-axis-17">
        <visual>
            <origin xyz="0.0 0.0 0.0" rpy="0.0 0.0 0.0"/>
            <geometry>
                <mesh filename ="meshes/e_skin/03_meshs/flat_py.dae"/>
            </geometry>
            <material name = "LightGrey"/>
        </visual>
        <collision>
            <origin xyz="0.0 0.0 0.0" rpy="0.0 0.0 0.0"/>
        <geometry>
             <mesh filename ="meshes/e_skin/03_meshs/flat_py.stl"/>
        </geometry>
        </collision>
        <inertial>
            <origin xyz="0 0 0" rpy="0 0 0" />
            <mass value ="2.0"/>
            <inertia ixx="0.008093163" ixy="0.0" ixz="0.0" iyy="0.008093163" iyz="0.0" izz="0.005625"/>
        </inertial>
    </link>


    <!--arm joint 3-->
    <joint name="left_forearm_link_to_left_upper_arm_link" type="revolute">
        <origin xyz="-0.24355 0.0 0.0" rpy="0.0 0.0 0.0"/>
        <parent link="left_upper_arm_link"/>
        <child link="left_forearm_link"/>
        <axis xyz="0.0 0.0 1"/>
        <limit lower="-6.28318530718" upper="6.28318530718" effort="28.0" velocity="1.5708"/>
    </joint>

    <!---->
    <link name="left_forearm_link">
        <inertial>
            <origin xyz="-0.121825 0.0 0.027" rpy=" 0.0  1.5708 0.0"/>
            <mass value  = "1.26"/>
            <inertia ixx="0.006544568" ixy="0.0" ixz="0.0" iyy="0.006544568" iyz="0.0" izz="0.000354375"/>
        </inertial>
        <visual >
            <origin xyz="0.0 0.0 0.0275" rpy="1.5708 0.0 -1.5708"/>
            <geometry>
                <mesh filename="meshes/forearm.dae"/>
            </geometry>
            <material  name ="LightGrey"/>
        </visual>
        <collision>
            <origin xyz="0.0 0.0 0.0275" rpy="1.5708 0.0 -1.5708"/>
            <geometry>
                <mesh filename="meshes/forearm.stl"/>
            </geometry>
        </collision>
    </link>

  

    <!--left arm 02 eskin joint-->
     <joint name="left_forearm_link_to_left_eskin_02axis" type="fixed">
            <origin xyz="-0.16183 0.0 0.027" rpy="0.0 0.0 0.0"/>
            <parent link="left_forearm_link"/>
            <child link="left_eskin_02axis"/>
            <axis xyz="0.0 0.0 1.0"/>
            <limit lower="-6.28318530718" upper="6.28318530718" effort="56.0" velocity="1.5708"/>
    </joint>

    <!--left arm 02 eskin model -->
    <link name="left_eskin_02axis">
        <visual>
            <origin xyz="-0.0 0.0 0.0" rpy="0.0 0.0 0.0"/>
            <geometry>
                <mesh filename ="meshes/e_skin/02_meshs/02_axis_py.dae"/>
            </geometry>
            <material name = "LightGrey"/>
        </visual>
        <collision>
            <origin xyz="0.0 0.0 0.0" rpy="0.0 0.0 0.0"/>
        <geometry>
             <mesh filename ="meshes/e_skin/02_meshs/02_axis_py.stl"/>
        </geometry>
        </collision>
        <inertial>
            <origin xyz="0 0 0" rpy="0 0 0" />
            <mass value ="2.0"/>
            <inertia ixx="0.008093163" ixy="0.0" ixz="0.0" iyy="0.008093163" iyz="0.0" izz="0.005625"/>
        </inertial>
    </link>


    <!-- left_arm  02 eskin first  culon -->

  <!--left arm 02 eskin lib 01 joint-->
    <joint name="left_eskin_02axis_to_left_eskin_02-axis-01" type="fixed">
            <origin xyz="0.022  0.0385 0.0" rpy=" 0.0 0.0 0.0"/>
            <parent link="left_eskin_02axis"/>
            <child link="_left_eskin_02-axis-01"/>
            <axis xyz="0.0 0.0 1.0"/>
            <limit lower="-6.28318530718" upper="6.28318530718" effort="56.0" velocity="1.5708"/>
    </joint>

    <!--left arm 03 lib-17 eskin model -->
    <link name="_left_eskin_02-axis-01">
        <visual>
            <origin xyz="0.0 0.0 0.0" rpy="0.0 0.0 0.0"/>
            <geometry>
                <mesh filename ="meshes/e_skin/02_meshs/02_lib_py.dae"/>
            </geometry>
            <material name = "LightGrey"/>
        </visual>
        <collision>
            <origin xyz="0.0 0.0 0.0" rpy="0.0 0.0 0.0"/>
        <geometry>
             <mesh filename ="meshes/e_skin/02_meshs/02_lib_py.stl"/>
        </geometry>
        </collision>
        <inertial>
            <origin xyz="0 0 0" rpy="0 0 0" />
            <mass value ="2.0"/>
            <inertia ixx="0.008093163" ixy="0.0" ixz="0.0" iyy="0.008093163" iyz="0.0" izz="0.005625"/>
        </inertial>
    </link>

    <!--left arm 02 eskin lib 02 joint-->
    <joint name="left_eskin_02axis_to_left_eskin_02-axis-02" type="fixed">
            <origin xyz="0.022  0.01911 0.03307" rpy=" 1.04719 0.0 0.0"/>
            <parent link="left_eskin_02axis"/>
            <child link="_left_eskin_02-axis-02"/>
            <axis xyz="0.0 0.0 1.0"/>
            <limit lower="-6.28318530718" upper="6.28318530718" effort="56.0" velocity="1.5708"/>
    </joint>

    <!--left arm 03 lib-17 eskin model -->
    <link name="_left_eskin_02-axis-02">
        <visual>
            <origin xyz="0.0 0.0 0.0" rpy="0.0 0.0 0.0"/>
            <geometry>
                <mesh filename ="meshes/e_skin/02_meshs/02_lib_py.dae"/>
            </geometry>
            <material name = "LightGrey"/>
        </visual>
        <collision>
            <origin xyz="0.0 0.0 0.0" rpy="0.0 0.0 0.0"/>
        <geometry>
             <mesh filename ="meshes/e_skin/02_meshs/02_lib_py.stl"/>
        </geometry>
        </collision>
        <inertial>
            <origin xyz="0 0 0" rpy="0 0 0" />
            <mass value ="2.0"/>
            <inertia ixx="0.008093163" ixy="0.0" ixz="0.0" iyy="0.008093163" iyz="0.0" izz="0.005625"/>
        </inertial>
    </link>

    <!--left arm 02 eskin lib 03 joint-->
    <joint name="left_eskin_02axis_to_left_eskin_02-axis-03" type="fixed">
            <origin xyz="0.022  -0.019064  0.03310" rpy=" 2.09439 0.0 0.0"/>
            <parent link="left_eskin_02axis"/>
            <child link="_left_eskin_02-axis-03"/>
            <axis xyz="0.0 0.0 1.0"/>
            <limit lower="-6.28318530718" upper="6.28318530718" effort="56.0" velocity="1.5708"/>
    </joint>

    <!--left arm 02 lib-03 eskin model -->
    <link name="_left_eskin_02-axis-03">
        <visual>
            <origin xyz="0.0 0.0 0.0" rpy="0.0 0.0 0.0"/>
            <geometry>
                <mesh filename ="meshes/e_skin/02_meshs/02_lib_py.dae"/>
            </geometry>
            <material name = "LightGrey"/>
        </visual>
        <collision>
            <origin xyz="0.0 0.0 0.0" rpy="0.0 0.0 0.0"/>
        <geometry>
             <mesh filename ="meshes/e_skin/02_meshs/02_lib_py.stl"/>
        </geometry>
        </collision>
        <inertial>
            <origin xyz="0 0 0" rpy="0 0 0" />
            <mass value ="2.0"/>
            <inertia ixx="0.008093163" ixy="0.0" ixz="0.0" iyy="0.008093163" iyz="0.0" izz="0.005625"/>
        </inertial>
    </link>


    <!--left arm 02 eskin lib 04 joint-->
    <joint name="left_eskin_02axis_to_left_eskin_02-axis-04" type="fixed">
            <origin xyz="0.022  -0.019099  0.033082" rpy=" 3.14159 0.0 0.0"/>
            <parent link="left_eskin_02axis"/>
            <child link="_left_eskin_02-axis-04"/>
            <axis xyz="0.0 0.0 1.0"/>
            <limit lower="-6.28318530718" upper="6.28318530718" effort="56.0" velocity="1.5708"/>
    </joint>

    <!--left arm 02 lib-04 eskin model -->
    <link name="_left_eskin_02-axis-04">
        <visual>
            <origin xyz="0.0 0.0 0.0" rpy="0.0 0.0 0.0"/>
            <geometry>
                <mesh filename ="meshes/e_skin/02_meshs/02_lib_py.dae"/>
            </geometry>
            <material name = "LightGrey"/>
        </visual>
        <collision>
            <origin xyz="0.0 0.0 0.0" rpy="0.0 0.0 0.0"/>
        <geometry>
             <mesh filename ="meshes/e_skin/02_meshs/02_lib_py.stl"/>
        </geometry>
        </collision>
        <inertial>
            <origin xyz="0 0 0" rpy="0 0 0" />
            <mass value ="2.0"/>
            <inertia ixx="0.008093163" ixy="0.0" ixz="0.0" iyy="0.008093163" iyz="0.0" izz="0.005625"/>
        </inertial>
    </link>


     <!--left arm 02 eskin lib 05 joint-->
    <joint name="left_eskin_02axis_to_left_eskin_02-axis-05" type="fixed">
            <origin xyz="0.022  -0.01910  -0.033082" rpy=" 4.18878 0.0 0.0"/>
            <parent link="left_eskin_02axis"/>
            <child link="_left_eskin_02-axis-05"/>
            <axis xyz="0.0 0.0 1.0"/>
            <limit lower="-6.28318530718" upper="6.28318530718" effort="56.0" velocity="1.5708"/>
    </joint>

    <!--left arm 02 lib-05 eskin model -->
    <link name="_left_eskin_02-axis-05">
        <visual>
            <origin xyz="0.0 0.0 0.0" rpy="0.0 0.0 0.0"/>
            <geometry>
                <mesh filename ="meshes/e_skin/02_meshs/02_lib_py.dae"/>
            </geometry>
            <material name = "LightGrey"/>
        </visual>
        <collision>
            <origin xyz="0.0 0.0 0.0" rpy="0.0 0.0 0.0"/>
        <geometry>
             <mesh filename ="meshes/e_skin/02_meshs/02_lib_py.stl"/>
        </geometry>
        </collision>
        <inertial>
            <origin xyz="0 0 0" rpy="0 0 0" />
            <mass value ="2.0"/>
            <inertia ixx="0.008093163" ixy="0.0" ixz="0.0" iyy="0.008093163" iyz="0.0" izz="0.005625"/>
        </inertial>
    </link>

    <!--left arm 02 eskin lib 06 joint-->
    <joint name="left_eskin_02axis_to_left_eskin_02-axis-06" type="fixed">
            <origin xyz="0.022  0.0190998  -0.033082" rpy=" 5.23598 0.0 0.0"/>
            <parent link="left_eskin_02axis"/>
            <child link="_left_eskin_02-axis-06"/>
            <axis xyz="0.0 0.0 1.0"/>
            <limit lower="-6.28318530718" upper="6.28318530718" effort="56.0" velocity="1.5708"/>
    </joint>

    <!--left arm 02 lib-06 eskin model -->
    <link name="_left_eskin_02-axis-06">
        <visual>
            <origin xyz="0.0 0.0 0.0" rpy="0.0 0.0 0.0"/>
            <geometry>
                <mesh filename ="meshes/e_skin/02_meshs/02_lib_py.dae"/>
            </geometry>
            <material name = "LightGrey"/>
        </visual>
        <collision>
            <origin xyz="0.0 0.0 0.0" rpy="0.0 0.0 0.0"/>
        <geometry>
             <mesh filename ="meshes/e_skin/02_meshs/02_lib_py.stl"/>
        </geometry>
        </collision>
        <inertial>
            <origin xyz="0 0 0" rpy="0 0 0" />
            <mass value ="2.0"/>
            <inertia ixx="0.008093163" ixy="0.0" ixz="0.0" iyy="0.008093163" iyz="0.0" izz="0.005625"/>
        </inertial>
    </link>


    <!-- left_arm  02 eskin second  culon -->

  <!--left arm 02 eskin lib 07 joint-->
    <joint name="left_eskin_02axis_to_left_eskin_02-axis-07" type="fixed">
            <origin xyz="0.0525  0.03308 0.019099" rpy=" 0.523598 0.0 0.0"/>
            <parent link="left_eskin_02axis"/>
            <child link="_left_eskin_02-axis-07"/>
            <axis xyz="0.0 0.0 1.0"/>
            <limit lower="-6.28318530718" upper="6.28318530718" effort="56.0" velocity="1.5708"/>
    </joint>

    <!--left arm 03 lib-07 eskin model -->
    <link name="_left_eskin_02-axis-07">
        <visual>
            <origin xyz="0.0 0.0 0.0" rpy="0.0 0.0 0.0"/>
            <geometry>
                <mesh filename ="meshes/e_skin/02_meshs/02_lib_py.dae"/>
            </geometry>
            <material name = "LightGrey"/>
        </visual>
        <collision>
            <origin xyz="0.0 0.0 0.0" rpy="0.0 0.0 0.0"/>
        <geometry>
             <mesh filename ="meshes/e_skin/02_meshs/02_lib_py.stl"/>
        </geometry>
        </collision>
        <inertial>
            <origin xyz="0 0 0" rpy="0 0 0" />
            <mass value ="2.0"/>
            <inertia ixx="0.008093163" ixy="0.0" ixz="0.0" iyy="0.008093163" iyz="0.0" izz="0.005625"/>
        </inertial>
    </link>

    <!--left arm 02 eskin lib 08 joint-->
    <joint name="left_eskin_02axis_to_left_eskin_02-axis-08" type="fixed">
            <origin xyz="0.0525  0.0 0.0382" rpy="1.570795 0.0 0.0"/>
            <parent link="left_eskin_02axis"/>
            <child link="_left_eskin_02-axis-08"/>
            <axis xyz="0.0 0.0 1.0"/>
            <limit lower="-6.28318530718" upper="6.28318530718" effort="56.0" velocity="1.5708"/>
    </joint>

    <!--left arm 03 lib-08 eskin model -->
    <link name="_left_eskin_02-axis-08">
        <visual>
            <origin xyz="0.0 0.0 0.0" rpy="0.0 0.0 0.0"/>
            <geometry>
                <mesh filename ="meshes/e_skin/02_meshs/02_lib_py.dae"/>
            </geometry>
            <material name = "LightGrey"/>
        </visual>
        <collision>
            <origin xyz="0.0 0.0 0.0" rpy="0.0 0.0 0.0"/>
        <geometry>
             <mesh filename ="meshes/e_skin/02_meshs/02_lib_py.stl"/>
        </geometry>
        </collision>
        <inertial>
            <origin xyz="0 0 0" rpy="0 0 0" />
            <mass value ="2.0"/>
            <inertia ixx="0.008093163" ixy="0.0" ixz="0.0" iyy="0.008093163" iyz="0.0" izz="0.005625"/>
        </inertial>
    </link>

    <!--left arm 02 eskin lib 09 joint-->
    <joint name="left_eskin_02axis_to_left_eskin_02-axis-09" type="fixed">
            <origin xyz="0.0525  -0.033082  0.0191" rpy="2.61799 0.0 0.0"/>
            <parent link="left_eskin_02axis"/>
            <child link="_left_eskin_02-axis-09"/>
            <axis xyz="0.0 0.0 1.0"/>
            <limit lower="-6.28318530718" upper="6.28318530718" effort="56.0" velocity="1.5708"/>
    </joint>

    <!--left arm 02 lib-09 eskin model -->
    <link name="_left_eskin_02-axis-09">
        <visual>
            <origin xyz="0.0 0.0 0.0" rpy="0.0 0.0 0.0"/>
            <geometry>
                <mesh filename ="meshes/e_skin/02_meshs/02_lib_py.dae"/>
            </geometry>
            <material name = "LightGrey"/>
        </visual>
        <collision>
            <origin xyz="0.0 0.0 0.0" rpy="0.0 0.0 0.0"/>
        <geometry>
             <mesh filename ="meshes/e_skin/02_meshs/02_lib_py.stl"/>
        </geometry>
        </collision>
        <inertial>
            <origin xyz="0 0 0" rpy="0 0 0" />
            <mass value ="2.0"/>
            <inertia ixx="0.008093163" ixy="0.0" ixz="0.0" iyy="0.008093163" iyz="0.0" izz="0.005625"/>
        </inertial>
    </link>


    <!--left arm 02 eskin lib 10 joint-->
    <joint name="left_eskin_02axis_to_left_eskin_02-axis-10" type="fixed">
            <origin xyz="0.0525  -0.033082  -0.01909989" rpy=" 3.665188 0.0 0.0"/>
            <parent link="left_eskin_02axis"/>
            <child link="_left_eskin_02-axis-10"/>
            <axis xyz="0.0 0.0 1.0"/>
            <limit lower="-6.28318530718" upper="6.28318530718" effort="56.0" velocity="1.5708"/>
    </joint>

    <!--left arm 02 lib-04 eskin model -->
    <link name="_left_eskin_02-axis-10">
        <visual>
            <origin xyz="0.0 0.0 0.0" rpy="0.0 0.0 0.0"/>
            <geometry>
                <mesh filename ="meshes/e_skin/02_meshs/02_lib_py.dae"/>
            </geometry>
            <material name = "LightGrey"/>
        </visual>
        <collision>
            <origin xyz="0.0 0.0 0.0" rpy="0.0 0.0 0.0"/>
        <geometry>
             <mesh filename ="meshes/e_skin/02_meshs/02_lib_py.stl"/>
        </geometry>
        </collision>
        <inertial>
            <origin xyz="0 0 0" rpy="0 0 0" />
            <mass value ="2.0"/>
            <inertia ixx="0.008093163" ixy="0.0" ixz="0.0" iyy="0.008093163" iyz="0.0" izz="0.005625"/>
        </inertial>
    </link>

    <!--left arm 02 eskin lib 11 joint-->
    <joint name="left_eskin_02axis_to_left_eskin_02-axis-11" type="fixed">
            <origin xyz="0.0525  -0.0  -0.0382" rpy=" 4.712385 0.0 0.0"/>
            <parent link="left_eskin_02axis"/>
            <child link="_left_eskin_02-axis-11"/>
            <axis xyz="0.0 0.0 1.0"/>
            <limit lower="-6.28318530718" upper="6.28318530718" effort="56.0" velocity="1.5708"/>
    </joint>

    <!--left arm 02 lib-11 eskin model -->
    <link name="_left_eskin_02-axis-11">
        <visual>
            <origin xyz="0.0 0.0 0.0" rpy="0.0 0.0 0.0"/>
            <geometry>
                <mesh filename ="meshes/e_skin/02_meshs/02_lib_py.dae"/>
            </geometry>
            <material name = "LightGrey"/>
        </visual>
        <collision>
            <origin xyz="0.0 0.0 0.0" rpy="0.0 0.0 0.0"/>
        <geometry>
             <mesh filename ="meshes/e_skin/02_meshs/02_lib_py.stl"/>
        </geometry>
        </collision>
        <inertial>
            <origin xyz="0 0 0" rpy="0 0 0" />
            <mass value ="2.0"/>
            <inertia ixx="0.008093163" ixy="0.0" ixz="0.0" iyy="0.008093163" iyz="0.0" izz="0.005625"/>
        </inertial>
    </link>

    <!--left arm 02 eskin lib 12 joint-->
    <joint name="left_eskin_02axis_to_left_eskin_02-axis-12" type="fixed">
            <origin xyz="0.0525  0.033082  -0.0191" rpy=" 5.75958167 0.0 0.0"/>
            <parent link="left_eskin_02axis"/>
            <child link="_left_eskin_02-axis-12"/>
            <axis xyz="0.0 0.0 1.0"/>
            <limit lower="-6.28318530718" upper="6.28318530718" effort="56.0" velocity="1.5708"/>
    </joint>

    <!--left arm 02 lib-12 eskin model -->
    <link name="_left_eskin_02-axis-12">
        <visual>
            <origin xyz="0.0 0.0 0.0" rpy="0.0 0.0 0.0"/>
            <geometry>
                <mesh filename ="meshes/e_skin/02_meshs/02_lib_py.dae"/>
            </geometry>
            <material name = "LightGrey"/>
        </visual>
        <collision>
            <origin xyz="0.0 0.0 0.0" rpy="0.0 0.0 0.0"/>
        <geometry>
             <mesh filename ="meshes/e_skin/02_meshs/02_lib_py.stl"/>
        </geometry>
        </collision>
        <inertial>
            <origin xyz="0 0 0" rpy="0 0 0" />
            <mass value ="2.0"/>
            <inertia ixx="0.008093163" ixy="0.0" ixz="0.0" iyy="0.008093163" iyz="0.0" izz="0.005625"/>
        </inertial>
    </link>


    <!-- left_arm  02 eskin third  culon -->

  <!--left arm 02 eskin lib 13 joint-->
    <joint name="left_eskin_02axis_to_left_eskin_02-axis-13" type="fixed">
            <origin xyz="0.0825  0.0385 0.0" rpy=" 0.0 0.0 0.0"/>
            <parent link="left_eskin_02axis"/>
            <child link="_left_eskin_02-axis-13"/>
            <axis xyz="0.0 0.0 1.0"/>
            <limit lower="-6.28318530718" upper="6.28318530718" effort="56.0" velocity="1.5708"/>
    </joint>

    <!--left arm 02 lib-13 eskin model -->
    <link name="_left_eskin_02-axis-13">
        <visual>
            <origin xyz="0.0 0.0 0.0" rpy="0.0 0.0 0.0"/>
            <geometry>
                <mesh filename ="meshes/e_skin/02_meshs/02_lib_py.dae"/>
            </geometry>
            <material name = "LightGrey"/>
        </visual>
        <collision>
            <origin xyz="0.0 0.0 0.0" rpy="0.0 0.0 0.0"/>
        <geometry>
             <mesh filename ="meshes/e_skin/02_meshs/02_lib_py.stl"/>
        </geometry>
        </collision>
        <inertial>
            <origin xyz="0 0 0" rpy="0 0 0" />
            <mass value ="2.0"/>
            <inertia ixx="0.008093163" ixy="0.0" ixz="0.0" iyy="0.008093163" iyz="0.0" izz="0.005625"/>
        </inertial>
    </link>

    <!--left arm 02 eskin lib 14 joint-->
    <joint name="left_eskin_02axis_to_left_eskin_02-axis-14" type="fixed">
            <origin xyz="0.0825  0.01911 0.03307" rpy=" 1.04719 0.0 0.0"/>
            <parent link="left_eskin_02axis"/>
            <child link="_left_eskin_02-axis-14"/>
            <axis xyz="0.0 0.0 1.0"/>
            <limit lower="-6.28318530718" upper="6.28318530718" effort="56.0" velocity="1.5708"/>
    </joint>

    <!--left arm 03 lib-14 eskin model -->
    <link name="_left_eskin_02-axis-14">
        <visual>
            <origin xyz="0.0 0.0 0.0" rpy="0.0 0.0 0.0"/>
            <geometry>
                <mesh filename ="meshes/e_skin/02_meshs/02_lib_py.dae"/>
            </geometry>
            <material name = "LightGrey"/>
        </visual>
        <collision>
            <origin xyz="0.0 0.0 0.0" rpy="0.0 0.0 0.0"/>
        <geometry>
             <mesh filename ="meshes/e_skin/02_meshs/02_lib_py.stl"/>
        </geometry>
        </collision>
        <inertial>
            <origin xyz="0 0 0" rpy="0 0 0" />
            <mass value ="2.0"/>
            <inertia ixx="0.008093163" ixy="0.0" ixz="0.0" iyy="0.008093163" iyz="0.0" izz="0.005625"/>
        </inertial>
    </link>

    <!--left arm 02 eskin lib 15 joint-->
    <joint name="left_eskin_02axis_to_left_eskin_02-axis-15" type="fixed">
            <origin xyz="0.0825  -0.019064  0.03310" rpy=" 2.09439 0.0 0.0"/>
            <parent link="left_eskin_02axis"/>
            <child link="_left_eskin_02-axis-15"/>
            <axis xyz="0.0 0.0 1.0"/>
            <limit lower="-6.28318530718" upper="6.28318530718" effort="56.0" velocity="1.5708"/>
    </joint>

    <!--left arm 02 lib-15 eskin model -->
    <link name="_left_eskin_02-axis-15">
        <visual>
            <origin xyz="0.0 0.0 0.0" rpy="0.0 0.0 0.0"/>
            <geometry>
                <mesh filename ="meshes/e_skin/02_meshs/02_lib_py.dae"/>
            </geometry>
            <material name = "LightGrey"/>
        </visual>
        <collision>
            <origin xyz="0.0 0.0 0.0" rpy="0.0 0.0 0.0"/>
        <geometry>
             <mesh filename ="meshes/e_skin/02_meshs/02_lib_py.stl"/>
        </geometry>
        </collision>
        <inertial>
            <origin xyz="0 0 0" rpy="0 0 0" />
            <mass value ="2.0"/>
            <inertia ixx="0.008093163" ixy="0.0" ixz="0.0" iyy="0.008093163" iyz="0.0" izz="0.005625"/>
        </inertial>
    </link>


    <!--left arm 02 eskin lib 16 joint-->
    <joint name="left_eskin_02axis_to_left_eskin_02-axis-16" type="fixed">
            <origin xyz="0.0825  -0.019099  0.033082" rpy=" 3.14159 0.0 0.0"/>
            <parent link="left_eskin_02axis"/>
            <child link="_left_eskin_02-axis-16"/>
            <axis xyz="0.0 0.0 1.0"/>
            <limit lower="-6.28318530718" upper="6.28318530718" effort="56.0" velocity="1.5708"/>
    </joint>

    <!--left arm 02 lib-16 eskin model -->
    <link name="_left_eskin_02-axis-16">
        <visual>
            <origin xyz="0.0 0.0 0.0" rpy="0.0 0.0 0.0"/>
            <geometry>
                <mesh filename ="meshes/e_skin/02_meshs/02_lib_py.dae"/>
            </geometry>
            <material name = "LightGrey"/>
        </visual>
        <collision>
            <origin xyz="0.0 0.0 0.0" rpy="0.0 0.0 0.0"/>
        <geometry>
             <mesh filename ="meshes/e_skin/02_meshs/02_lib_py.stl"/>
        </geometry>
        </collision>
        <inertial>
            <origin xyz="0 0 0" rpy="0 0 0" />
            <mass value ="2.0"/>
            <inertia ixx="0.008093163" ixy="0.0" ixz="0.0" iyy="0.008093163" iyz="0.0" izz="0.005625"/>
        </inertial>
    </link>


     <!--left arm 02 eskin lib 17 joint-->
    <joint name="left_eskin_02axis_to_left_eskin_02-axis-17" type="fixed">
            <origin xyz="0.0825  -0.01910  -0.033082" rpy=" 4.18878 0.0 0.0"/>
            <parent link="left_eskin_02axis"/>
            <child link="_left_eskin_02-axis-17"/>
            <axis xyz="0.0 0.0 1.0"/>
            <limit lower="-6.28318530718" upper="6.28318530718" effort="56.0" velocity="1.5708"/>
    </joint>

    <!--left arm 02 lib-17 eskin model -->
    <link name="_left_eskin_02-axis-17">
        <visual>
            <origin xyz="0.0 0.0 0.0" rpy="0.0 0.0 0.0"/>
            <geometry>
                <mesh filename ="meshes/e_skin/02_meshs/02_lib_py.dae"/>
            </geometry>
            <material name = "LightGrey"/>
        </visual>
        <collision>
            <origin xyz="0.0 0.0 0.0" rpy="0.0 0.0 0.0"/>
        <geometry>
             <mesh filename ="meshes/e_skin/02_meshs/02_lib_py.stl"/>
        </geometry>
        </collision>
        <inertial>
            <origin xyz="0 0 0" rpy="0 0 0" />
            <mass value ="2.0"/>
            <inertia ixx="0.008093163" ixy="0.0" ixz="0.0" iyy="0.008093163" iyz="0.0" izz="0.005625"/>
        </inertial>
    </link>

    <!--left arm 02 eskin lib 18 joint-->
    <joint name="left_eskin_02axis_to_left_eskin_02-axis-18" type="fixed">
            <origin xyz="0.0825  0.0190998  -0.033082" rpy=" 5.23598 0.0 0.0"/>
            <parent link="left_eskin_02axis"/>
            <child link="_left_eskin_02-axis-18"/>
            <axis xyz="0.0 0.0 1.0"/>
            <limit lower="-6.28318530718" upper="6.28318530718" effort="56.0" velocity="1.5708"/>
    </joint>

    <!--left arm 02 lib-18 eskin model -->
    <link name="_left_eskin_02-axis-18">
        <visual>
            <origin xyz="0.0 0.0 0.0" rpy="0.0 0.0 0.0"/>
            <geometry>
                <mesh filename ="meshes/e_skin/02_meshs/02_lib_py.dae"/>
            </geometry>
            <material name = "LightGrey"/>
        </visual>
        <collision>
            <origin xyz="0.0 0.0 0.0" rpy="0.0 0.0 0.0"/>
        <geometry>
             <mesh filename ="meshes/e_skin/02_meshs/02_lib_py.stl"/>
        </geometry>
        </collision>
        <inertial>
            <origin xyz="0 0 0" rpy="0 0 0" />
            <mass value ="2.0"/>
            <inertia ixx="0.008093163" ixy="0.0" ixz="0.0" iyy="0.008093163" iyz="0.0" izz="0.005625"/>
        </inertial>
    </link>



  <!--sonsor 1 joint -->
    <joint name="left_forearm_link_to_left_eskin_01-3axis" type="fixed">
        <origin xyz="-0.21325 0.0 0.072" rpy="3.14159 0.0 3.14159"/>
        <parent link="left_forearm_link"/>
        <child link="left_eskin_01-3axis"/>
        <axis xyz="0.0 0.0 1"/>
    </joint>

    <link name="left_eskin_01-3axis">
        <inertial>
            <origin xyz=" 0.0 0.0  0.0" rpy="0.0 0.0 0.0"/>
            <mass value  ="0.0"/>
            <inertia ixx="0.002084999" ixy="0.0" ixz="0.0" iyy="0.002084999" iyz="0.0" izz="0.00225"/>
        </inertial>
        <visual>
            <origin xyz=" 0.0 0.0 -0.0" rpy="0.0 0.0 0.0"/>
            <geometry>
            <mesh filename="meshes/e_skin/01_meshs/01_axis_py.dae"/>
            </geometry>
            <material  name ="LightGrey"/>
        </visual>
        <collision>
            <origin xyz=" 0.0 0.0 -0.00" rpy="0.0 0.0 0.0"/>
            <geometry>
                <mesh filename="meshes/e_skin/01_meshs/01_axis_py.dae"/>
            </geometry>
        </collision>
    </link>


    <!-- left_arm  01-3  eskin first  culon -->

    <!--left arm 01 eskin left_eskin_01-3lib-06-->
    <joint name="left_eskin_01-3axis_to_left_eskin_01-3lib-06" type="fixed">
            <origin xyz="0.005687  -0.043197  0.028" rpy=" 0.0 0.0 -1.43989542"/>
            <parent link="left_eskin_01-3axis"/>
            <child link="left_eskin_01-3lib-06"/>
            <axis xyz="0.0 0.0 1.0"/>
            <limit lower="-6.28318530718" upper="6.28318530718" effort="56.0" velocity="1.5708"/>
    </joint>

    <!--left arm left_eskin_01-3lib-06 -->
    <link name="left_eskin_01-3lib-06">
        <visual>
            <origin xyz="0.0 0.0 0.0" rpy="0.0 0.0 0.0"/>
            <geometry>
                <mesh filename ="meshes/e_skin/01_meshs/01_lib_py.dae"/>
            </geometry>
            <material name = "LightGrey"/>
        </visual>
        <collision>
            <origin xyz="0.0 0.0 0.0" rpy="0.0 0.0 0.0"/>
        <geometry>
             <mesh filename ="meshes/e_skin/01_meshs/01_lib_py.stl"/>
        </geometry>
        </collision>
        <inertial>
            <origin xyz="0 0 0" rpy="0 0 0" />
            <mass value ="2.0"/>
            <inertia ixx="0.008093163" ixy="0.0" ixz="0.0" iyy="0.008093163" iyz="0.0" izz="0.005625"/>
        </inertial>
    </link>

    <!--left arm 01 eskin left_eskin_01-3lib-07-->
    <joint name="left_eskin_01-3axis_to_left_eskin_01-3lib-07" type="fixed">
            <origin xyz="0.03864707  -0.020118  0.028" rpy=" 0.0 0.0 -0.47996"/>
            <parent link="left_eskin_01-3axis"/>
            <child link="left_eskin_01-3lib-07"/>
            <axis xyz="0.0 0.0 1.0"/>
            <limit lower="-6.28318530718" upper="6.28318530718" effort="56.0" velocity="1.5708"/>
    </joint>

    <!--left arm left_eskin_01-3lib-07 -->
    <link name="left_eskin_01-3lib-07">
        <visual>
            <origin xyz="0.0 0.0 0.0" rpy="0.0 0.0 0.0"/>
            <geometry>
                <mesh filename ="meshes/e_skin/01_meshs/01_lib_py.dae"/>
            </geometry>
            <material name = "LightGrey"/>
        </visual>
        <collision>
            <origin xyz="0.0 0.0 0.0" rpy="0.0 0.0 0.0"/>
        <geometry>
             <mesh filename ="meshes/e_skin/01_meshs/01_lib_py.stl"/>
        </geometry>
        </collision>
        <inertial>
            <origin xyz="0 0 0" rpy="0 0 0" />
            <mass value ="2.0"/>
            <inertia ixx="0.008093163" ixy="0.0" ixz="0.0" iyy="0.008093163" iyz="0.0" izz="0.005625"/>
        </inertial>
    </link>


    <!--left arm 01 eskin left_eskin_01-3lib-08-->
    <joint name="left_eskin_01-3axis_to_left_eskin_01-3lib-08" type="fixed">
            <origin xyz="0.038647  0.020118  0.028" rpy=" 0.0 0.0 0.479965"/>
            <parent link="left_eskin_01-3axis"/>
            <child link="left_eskin_01-3lib-08"/>
            <axis xyz="0.0 0.0 1.0"/>
            <limit lower="-6.28318530718" upper="6.28318530718" effort="56.0" velocity="1.5708"/>
    </joint>

    <!--left arm left_eskin_01-3lib-08 -->
    <link name="left_eskin_01-3lib-08">
        <visual>
            <origin xyz="0.0 0.0 0.0" rpy="0.0 0.0 0.0"/>
            <geometry>
                <mesh filename ="meshes/e_skin/01_meshs/01_lib_py.dae"/>
            </geometry>
            <material name = "LightGrey"/>
        </visual>
        <collision>
            <origin xyz="0.0 0.0 0.0" rpy="0.0 0.0 0.0"/>
        <geometry>
             <mesh filename ="meshes/e_skin/01_meshs/01_lib_py.stl"/>
        </geometry>
        </collision>
        <inertial>
            <origin xyz="0 0 0" rpy="0 0 0" />
            <mass value ="2.0"/>
            <inertia ixx="0.008093163" ixy="0.0" ixz="0.0" iyy="0.008093163" iyz="0.0" izz="0.005625"/>
        </inertial>
    </link>


    <!--left arm 01 eskin left_eskin_01-3lib-09-->
    <joint name="left_eskin_01-3axis_to_left_eskin_01-3lib-09" type="fixed">
            <origin xyz="0.005687  0.043197 0.028" rpy=" 0.0 0.0 1.43989542"/>
            <parent link="left_eskin_01-3axis"/>
            <child link="left_eskin_01-3lib-09"/>
            <axis xyz="0.0 0.0 1.0"/>
            <limit lower="-6.28318530718" upper="6.28318530718" effort="56.0" velocity="1.5708"/>
    </joint>

    <!--left arm left_eskin_01-3lib-09 -->
    <link name="left_eskin_01-3lib-09">
        <visual>
            <origin xyz="0.0 0.0 0.0" rpy="0.0 0.0 0.0"/>
            <geometry>
                <mesh filename ="meshes/e_skin/01_meshs/01_lib_py.dae"/>
            </geometry>
            <material name = "LightGrey"/>
        </visual>
        <collision>
            <origin xyz="0.0 0.0 0.0" rpy="0.0 0.0 0.0"/>
        <geometry>
             <mesh filename ="meshes/e_skin/01_meshs/01_lib_py.stl"/>
        </geometry>
        </collision>
        <inertial>
            <origin xyz="0 0 0" rpy="0 0 0" />
            <mass value ="2.0"/>
            <inertia ixx="0.008093163" ixy="0.0" ixz="0.0" iyy="0.008093163" iyz="0.0" izz="0.005625"/>
        </inertial>
    </link>




    <!-- left_arm  01-3  eskin second  culon -->

    <!--left arm 01 eskin left_eskin_01-3lib-01-->
    <joint name="left_eskin_01-3axis_to_left_eskin_01-3lib-01" type="fixed">
            <origin xyz="0.04375  0.0  0.072" rpy=" 0.0 0.0 0.0"/>
            <parent link="left_eskin_01-3axis"/>
            <child link="left_eskin_01-3lib-01"/>
            <axis xyz="0.0 0.0 1.0"/>
            <limit lower="-6.28318530718" upper="6.28318530718" effort="56.0" velocity="1.5708"/>
    </joint>

    <!--left arm left_eskin_01-3lib-01 -->
    <link name="left_eskin_01-3lib-01">
        <visual>
            <origin xyz="0.0 0.0 0.0" rpy="0.0 0.0 0.0"/>
            <geometry>
                <mesh filename ="meshes/e_skin/01_meshs/01_lib_py.dae"/>
            </geometry>
            <material name = "LightGrey"/>
        </visual>
        <collision>
            <origin xyz="0.0 0.0 0.0" rpy="0.0 0.0 0.0"/>
        <geometry>
             <mesh filename ="meshes/e_skin/01_meshs/01_lib_py.stl"/>
        </geometry>
        </collision>
        <inertial>
            <origin xyz="0 0 0" rpy="0 0 0" />
            <mass value ="2.0"/>
            <inertia ixx="0.008093163" ixy="0.0" ixz="0.0" iyy="0.008093163" iyz="0.0" izz="0.005625"/>
        </inertial>
    </link>

    <!--left arm 01 eskin left_eskin_01-3lib-02-->
    <joint name="left_eskin_01-3axis_to_left_eskin_01-3lib-02" type="fixed">
            <origin xyz="0.02499075  0.03569  0.072" rpy=" 0.0 0.0 0.95993028"/>
            <parent link="left_eskin_01-3axis"/>
            <child link="left_eskin_01-3lib-02"/>
            <axis xyz="0.0 0.0 1.0"/>
            <limit lower="-6.28318530718" upper="6.28318530718" effort="56.0" velocity="1.5708"/>
    </joint>

    <!--left arm left_eskin_01-3lib-02 -->
    <link name="left_eskin_01-3lib-02">
        <visual>
            <origin xyz="0.0 0.0 0.0" rpy="0.0 0.0 0.0"/>
            <geometry>
                <mesh filename ="meshes/e_skin/01_meshs/01_lib_py.dae"/>
            </geometry>
            <material name = "LightGrey"/>
        </visual>
        <collision>
            <origin xyz="0.0 0.0 0.0" rpy="0.0 0.0 0.0"/>
        <geometry>
             <mesh filename ="meshes/e_skin/01_meshs/01_lib_py.stl"/>
        </geometry>
        </collision>
        <inertial>
            <origin xyz="0 0 0" rpy="0 0 0" />
            <mass value ="2.0"/>
            <inertia ixx="0.008093163" ixy="0.0" ixz="0.0" iyy="0.008093163" iyz="0.0" izz="0.005625"/>
        </inertial>
    </link>


    <!--left arm 01 eskin left_eskin_01-3lib-03-->
    <joint name="left_eskin_01-3axis_to_left_eskin_01-3lib-03" type="fixed">
            <origin xyz="-0.0149  0.0409424  0.072" rpy=" 0.0 0.0 1.91986"/>
            <parent link="left_eskin_01-3axis"/>
            <child link="left_eskin_01-3lib-03"/>
            <axis xyz="0.0 0.0 1.0"/>
            <limit lower="-6.28318530718" upper="6.28318530718" effort="56.0" velocity="1.5708"/>
    </joint>

    <!--left arm left_eskin_01-3lib-03 -->
    <link name="left_eskin_01-3lib-03">
        <visual>
            <origin xyz="0.0 0.0 0.0" rpy="0.0 0.0 0.0"/>
            <geometry>
                <mesh filename ="meshes/e_skin/01_meshs/01_lib_py.dae"/>
            </geometry>
            <material name = "LightGrey"/>
        </visual>
        <collision>
            <origin xyz="0.0 0.0 0.0" rpy="0.0 0.0 0.0"/>
        <geometry>
             <mesh filename ="meshes/e_skin/01_meshs/01_lib_py.stl"/>
        </geometry>
        </collision>
        <inertial>
            <origin xyz="0 0 0" rpy="0 0 0" />
            <mass value ="2.0"/>
            <inertia ixx="0.008093163" ixy="0.0" ixz="0.0" iyy="0.008093163" iyz="0.0" izz="0.005625"/>
        </inertial>
    </link>


    <!--left arm 01 eskin left_eskin_01-3lib-04-->
    <joint name="left_eskin_01-3axis_to_left_eskin_01-3lib-04" type="fixed">
            <origin xyz="0.02499  -0.03569  0.072" rpy=" 0.0 0.0 -0.95993"/>
            <parent link="left_eskin_01-3axis"/>
            <child link="left_eskin_01-3lib-04"/>
            <axis xyz="0.0 0.0 1.0"/>
            <limit lower="-6.28318530718" upper="6.28318530718" effort="56.0" velocity="1.5708"/>
    </joint>

    <!--left arm left_eskin_01-3lib-04 -->
    <link name="left_eskin_01-3lib-04">
        <visual>
            <origin xyz="0.0 0.0 0.0" rpy="0.0 0.0 0.0"/>
            <geometry>
                <mesh filename ="meshes/e_skin/01_meshs/01_lib_py.dae"/>
            </geometry>
            <material name = "LightGrey"/>
        </visual>
        <collision>
            <origin xyz="0.0 0.0 0.0" rpy="0.0 0.0 0.0"/>
        <geometry>
             <mesh filename ="meshes/e_skin/01_meshs/01_lib_py.stl"/>
        </geometry>
        </collision>
        <inertial>
            <origin xyz="0 0 0" rpy="0 0 0" />
            <mass value ="2.0"/>
            <inertia ixx="0.008093163" ixy="0.0" ixz="0.0" iyy="0.008093163" iyz="0.0" izz="0.005625"/>
        </inertial>
    </link>


    <!--left arm 01 eskin left_eskin_01-3lib-05-->
    <joint name="left_eskin_01-3axis_to_left_eskin_01-3lib-05" type="fixed">
            <origin xyz="-0.0149  -0.04094  0.072" rpy=" 0.0 0.0 -1.91986"/>
            <parent link="left_eskin_01-3axis"/>
            <child link="left_eskin_01-3lib-05"/>
            <axis xyz="0.0 0.0 1.0"/>
            <limit lower="-6.28318530718" upper="6.28318530718" effort="56.0" velocity="1.5708"/>
    </joint>

    <!--left arm left_eskin_01-3lib-05 -->
    <link name="left_eskin_01-3lib-05">
        <visual>
            <origin xyz="0.0 0.0 0.0" rpy="0.0 0.0 0.0"/>
            <geometry>
                <mesh filename ="meshes/e_skin/01_meshs/01_lib_py.dae"/>
            </geometry>
            <material name = "LightGrey"/>
        </visual>
        <collision>
            <origin xyz="0.0 0.0 0.0" rpy="0.0 0.0 0.0"/>
        <geometry>
             <mesh filename ="meshes/e_skin/01_meshs/01_lib_py.stl"/>
        </geometry>
        </collision>
        <inertial>
            <origin xyz="0 0 0" rpy="0 0 0" />
            <mass value ="2.0"/>
            <inertia ixx="0.008093163" ixy="0.0" ixz="0.0" iyy="0.008093163" iyz="0.0" izz="0.005625"/>
        </inertial>
    </link>


    <!-- left_arm  01-3  eskin flat  culon -->

    <!--left arm 01 eskin left_eskin_01-3lib-10-->
    <joint name="left_eskin_01-3axis_to_left_eskin_01-3lib-10" type="fixed">
            <origin xyz="0.0  0.0  0.105" rpy=" 0.0 0.0 0.0"/>
            <parent link="left_eskin_01-3axis"/>
            <child link="left_eskin_01-3lib-10"/>
            <axis xyz="0.0 0.0 1.0"/>
            <limit lower="-6.28318530718" upper="6.28318530718" effort="56.0" velocity="1.5708"/>
    </joint>

    <!--left arm left_eskin_01-3lib-10 -->
    <link name="left_eskin_01-3lib-10">
        <visual>
            <origin xyz="0.0 0.0 0.0" rpy="0.0 0.0 0.0"/>
            <geometry>
                <mesh filename ="meshes/e_skin/01_meshs/flat_py.dae"/>
            </geometry>
            <material name = "LightGrey"/>
        </visual>
        <collision>
            <origin xyz="0.0 0.0 0.0" rpy="0.0 0.0 0.0"/>
        <geometry>
             <mesh filename ="meshes/e_skin/01_meshs/flat_py.stl"/>
        </geometry>
        </collision>
        <inertial>
            <origin xyz="0 0 0" rpy="0 0 0" />
            <mass value ="2.0"/>
            <inertia ixx="0.008093163" ixy="0.0" ixz="0.0" iyy="0.008093163" iyz="0.0" izz="0.005625"/>
        </inertial>
    </link>


     <!--wrist1_joint--> 
    <joint name="left_wrist_1_link_to_left_forearm_link" type="fixed">
        <origin xyz="-0.21325 0.0 0.13105" rpy="0.0 0.0 0.0"/>
        <parent link="left_forearm_link"/>
        <child link="left_wrist_1_link"/>
        <axis xyz="0.0 0.0 1"/>
        <limit lower="-6.28318530718" upper="6.28318530718" effort="12.0" velocity="6.28318530718"/>
    </joint>

    <!---->
    <link name="left_wrist_1_link">
        <inertial>
            <origin xyz=" 0.0  0.0  0.0" rpy="0.0  0.0 0.0"/>
            <mass value  ="0.8"/>
            <inertia ixx="0.002084999" ixy="0.0" ixz="0.0" iyy="0.002084999" iyz="0.0" izz="0.00225"/>
        </inertial>
        <visual>
            <origin xyz=" 0.0 0.0 -0.13105" rpy="1.5708 0.0 0.0"/>
            <geometry>
            <mesh filename="meshes/wrist1.dae"/>
            </geometry>
            <material  name ="LightGrey"/>
        </visual>
        <collision>
            <origin xyz=" 0.0 0.0 -0.13105" rpy="1.5708 0.0 0.0"/>
            <geometry>
                <mesh filename="meshes/wrist1.stl"/>
            </geometry>
        </collision>
    </link>


    <!--sonsor2_joint-->
   <joint name="left_wrist_1_link_to_left_eskin_01-2axis" type="fixed">
        <origin xyz="0.0 -0.041 -0.021325" rpy="-1.5708 -1.5708 0.0"/>
        <parent link="left_wrist_1_link"/>
        <child link="left_eskin_01-2axis"/>
        <axis xyz="0.0 0.0 1"/>
    </joint>

    <link name="left_eskin_01-2axis">
        <inertial>
            <origin xyz=" 0.0 0.0  0.0" rpy="0.0 0.0 0.0"/>
            <mass value  ="0.0"/>
            <inertia ixx="0.002084999" ixy="0.0" ixz="0.0" iyy="0.002084999" iyz="0.0" izz="0.00225"/>
        </inertial>
        <visual>
            <origin xyz=" 0.0 0.0 -0.0" rpy="0.0 0.0 0.0"/>
            <geometry>
            <mesh filename="meshes/e_skin/01_meshs/01_axis_py.dae"/>
            </geometry>
            <material  name ="LightGrey"/>
        </visual>
        <collision>
            <origin xyz=" 0.0 0.0 -0.00" rpy="0.0 0.0 0.0"/>
            <geometry>
                <mesh filename="meshes/e_skin/01_meshs/01_axis_py.dae"/>
            </geometry>
        </collision>
    </link>

    <!-- left_arm  01-2  eskin first  culon -->

    <!--left arm 01 eskin left_eskin_01-2lib-06-->
    <joint name="left_eskin_01-2axis_to_left_eskin_01-2lib-06" type="fixed">
            <origin xyz="0.005687  -0.043197  0.028" rpy=" 0.0 0.0 -1.43989542"/>
            <parent link="left_eskin_01-2axis"/>
            <child link="left_eskin_01-2lib-06"/>
            <axis xyz="0.0 0.0 1.0"/>
            <limit lower="-6.28318530718" upper="6.28318530718" effort="56.0" velocity="1.5708"/>
    </joint>

    <!--left arm left_eskin_01-2lib-06 -->
    <link name="left_eskin_01-2lib-06">
        <visual>
            <origin xyz="0.0 0.0 0.0" rpy="0.0 0.0 0.0"/>
            <geometry>
                <mesh filename ="meshes/e_skin/01_meshs/01_lib_py.dae"/>
            </geometry>
            <material name = "LightGrey"/>
        </visual>
        <collision>
            <origin xyz="0.0 0.0 0.0" rpy="0.0 0.0 0.0"/>
        <geometry>
             <mesh filename ="meshes/e_skin/01_meshs/01_lib_py.stl"/>
        </geometry>
        </collision>
        <inertial>
            <origin xyz="0 0 0" rpy="0 0 0" />
            <mass value ="2.0"/>
            <inertia ixx="0.008093163" ixy="0.0" ixz="0.0" iyy="0.008093163" iyz="0.0" izz="0.005625"/>
        </inertial>
    </link>

    <!--left arm 01 eskin left_eskin_01-2lib-07-->
    <joint name="left_eskin_01-2axis_to_left_eskin_01-2lib-07" type="fixed">
            <origin xyz="0.03864707  -0.020118  0.028" rpy=" 0.0 0.0 -0.47996"/>
            <parent link="left_eskin_01-2axis"/>
            <child link="left_eskin_01-2lib-07"/>
            <axis xyz="0.0 0.0 1.0"/>
            <limit lower="-6.28318530718" upper="6.28318530718" effort="56.0" velocity="1.5708"/>
    </joint>

    <!--left arm left_eskin_01-2lib-07 -->
    <link name="left_eskin_01-2lib-07">
        <visual>
            <origin xyz="0.0 0.0 0.0" rpy="0.0 0.0 0.0"/>
            <geometry>
                <mesh filename ="meshes/e_skin/01_meshs/01_lib_py.dae"/>
            </geometry>
            <material name = "LightGrey"/>
        </visual>
        <collision>
            <origin xyz="0.0 0.0 0.0" rpy="0.0 0.0 0.0"/>
        <geometry>
             <mesh filename ="meshes/e_skin/01_meshs/01_lib_py.stl"/>
        </geometry>
        </collision>
        <inertial>
            <origin xyz="0 0 0" rpy="0 0 0" />
            <mass value ="2.0"/>
            <inertia ixx="0.008093163" ixy="0.0" ixz="0.0" iyy="0.008093163" iyz="0.0" izz="0.005625"/>
        </inertial>
    </link>


    <!--left arm 01 eskin left_eskin_01-2lib-08-->
    <joint name="left_eskin_01-2axis_to_left_eskin_01-2lib-08" type="fixed">
            <origin xyz="0.038647  0.020118  0.028" rpy=" 0.0  0.0  0.479965"/>
            <parent link="left_eskin_01-2axis"/>
            <child link="left_eskin_01-2lib-08"/>
            <axis xyz="0.0 0.0 1.0"/>
            <limit lower="-6.28318530718" upper="6.28318530718" effort="56.0" velocity="1.5708"/>
    </joint>

    <!--left arm left_eskin_01-2lib-08 -->
    <link name="left_eskin_01-2lib-08">
        <visual>
            <origin xyz="0.0 0.0 0.0" rpy="0.0 0.0 0.0"/>
            <geometry>
                <mesh filename ="meshes/e_skin/01_meshs/01_lib_py.dae"/>
            </geometry>
            <material name = "LightGrey"/>
        </visual>
        <collision>
            <origin xyz="0.0 0.0 0.0" rpy="0.0 0.0 0.0"/>
        <geometry>
             <mesh filename ="meshes/e_skin/01_meshs/01_lib_py.stl"/>
        </geometry>
        </collision>
        <inertial>
            <origin xyz="0 0 0" rpy="0 0 0" />
            <mass value ="2.0"/>
            <inertia ixx="0.008093163" ixy="0.0" ixz="0.0" iyy="0.008093163" iyz="0.0" izz="0.005625"/>
        </inertial>
    </link>


    <!--left arm 01 eskin left_eskin_01-2lib-09-->
    <joint name="left_eskin_01-2axis_to_left_eskin_01-2lib-09" type="fixed">
            <origin xyz="0.005687  0.043197 0.028" rpy=" 0.0 0.0 1.43989542"/>
            <parent link="left_eskin_01-2axis"/>
            <child link="left_eskin_01-2lib-09"/>
            <axis xyz="0.0 0.0 1.0"/>
            <limit lower="-6.28318530718" upper="6.28318530718" effort="56.0" velocity="1.5708"/>
    </joint>

    <!--left arm left_eskin_01-2lib-09 -->
    <link name="left_eskin_01-2lib-09">
        <visual>
            <origin xyz="0.0 0.0 0.0" rpy="0.0 0.0 0.0"/>
            <geometry>
                <mesh filename ="meshes/e_skin/01_meshs/01_lib_py.dae"/>
            </geometry>
            <material name = "LightGrey"/>
        </visual>
        <collision>
            <origin xyz="0.0 0.0 0.0" rpy="0.0 0.0 0.0"/>
        <geometry>
             <mesh filename ="meshes/e_skin/01_meshs/01_lib_py.stl"/>
        </geometry>
        </collision>
        <inertial>
            <origin xyz="0 0 0" rpy="0 0 0" />
            <mass value ="2.0"/>
            <inertia ixx="0.008093163" ixy="0.0" ixz="0.0" iyy="0.008093163" iyz="0.0" izz="0.005625"/>
        </inertial>
    </link>




    <!-- left_arm  01-2  eskin second  culon -->

    <!--left arm 01 eskin left_eskin_01-2lib-01-->
    <joint name="left_eskin_01-2axis_to_left_eskin_01-2lib-01" type="fixed">
            <origin xyz="0.04375  0.0  0.072" rpy=" 0.0 0.0 0.0"/>
            <parent link="left_eskin_01-2axis"/>
            <child link="left_eskin_01-2lib-01"/>
            <axis xyz="0.0 0.0 1.0"/>
            <limit lower="-6.28318530718" upper="6.28318530718" effort="56.0" velocity="1.5708"/>
    </joint>

    <!--left arm left_eskin_01-2lib-01 -->
    <link name="left_eskin_01-2lib-01">
        <visual>
            <origin xyz="0.0 0.0 0.0" rpy="0.0 0.0 0.0"/>
            <geometry>
                <mesh filename ="meshes/e_skin/01_meshs/01_lib_py.dae"/>
            </geometry>
            <material name = "LightGrey"/>
        </visual>
        <collision>
            <origin xyz="0.0 0.0 0.0" rpy="0.0 0.0 0.0"/>
        <geometry>
             <mesh filename ="meshes/e_skin/01_meshs/01_lib_py.stl"/>
        </geometry>
        </collision>
        <inertial>
            <origin xyz="0 0 0" rpy="0 0 0" />
            <mass value ="2.0"/>
            <inertia ixx="0.008093163" ixy="0.0" ixz="0.0" iyy="0.008093163" iyz="0.0" izz="0.005625"/>
        </inertial>
    </link>

    <!--left arm 01 eskin left_eskin_01-2lib-02-->
    <joint name="left_eskin_01-2axis_to_left_eskin_01-2lib-02" type="fixed">
            <origin xyz="0.02499075  0.03569  0.072" rpy=" 0.0 0.0 0.95993028"/>
            <parent link="left_eskin_01-2axis"/>
            <child link="left_eskin_01-2lib-02"/>
            <axis xyz="0.0 0.0 1.0"/>
            <limit lower="-6.28318530718" upper="6.28318530718" effort="56.0" velocity="1.5708"/>
    </joint>

    <!--left arm left_eskin_01-2lib-02 -->
    <link name="left_eskin_01-2lib-02">
        <visual>
            <origin xyz="0.0 0.0 0.0" rpy="0.0 0.0 0.0"/>
            <geometry>
                <mesh filename ="meshes/e_skin/01_meshs/01_lib_py.dae"/>
            </geometry>
            <material name = "LightGrey"/>
        </visual>
        <collision>
            <origin xyz="0.0 0.0 0.0" rpy="0.0 0.0 0.0"/>
        <geometry>
             <mesh filename ="meshes/e_skin/01_meshs/01_lib_py.stl"/>
        </geometry>
        </collision>
        <inertial>
            <origin xyz="0 0 0" rpy="0 0 0" />
            <mass value ="2.0"/>
            <inertia ixx="0.008093163" ixy="0.0" ixz="0.0" iyy="0.008093163" iyz="0.0" izz="0.005625"/>
        </inertial>
    </link>


    <!--left arm 01 eskin left_eskin_01-2lib-03-->
    <joint name="left_eskin_01-2axis_to_left_eskin_01-2lib-03" type="fixed">
            <origin xyz="-0.0149  0.0409424  0.072" rpy=" 0.0 0.0 1.91986"/>
            <parent link="left_eskin_01-2axis"/>
            <child link="left_eskin_01-2lib-03"/>
            <axis xyz="0.0 0.0 1.0"/>
            <limit lower="-6.28318530718" upper="6.28318530718" effort="56.0" velocity="1.5708"/>
    </joint>

    <!--left arm left_eskin_01-2lib-03 -->
    <link name="left_eskin_01-2lib-03">
        <visual>
            <origin xyz="0.0 0.0 0.0" rpy="0.0 0.0 0.0"/>
            <geometry>
                <mesh filename ="meshes/e_skin/01_meshs/01_lib_py.dae"/>
            </geometry>
            <material name = "LightGrey"/>
        </visual>
        <collision>
            <origin xyz="0.0 0.0 0.0" rpy="0.0 0.0 0.0"/>
        <geometry>
             <mesh filename ="meshes/e_skin/01_meshs/01_lib_py.stl"/>
        </geometry>
        </collision>
        <inertial>
            <origin xyz="0 0 0" rpy="0 0 0" />
            <mass value ="2.0"/>
            <inertia ixx="0.008093163" ixy="0.0" ixz="0.0" iyy="0.008093163" iyz="0.0" izz="0.005625"/>
        </inertial>
    </link>


    <!--left arm 01 eskin left_eskin_01-2lib-04-->
    <joint name="left_eskin_01-2axis_to_left_eskin_01-2lib-04" type="fixed">
            <origin xyz="0.02499  -0.03569  0.072" rpy=" 0.0 0.0 -0.95993"/>
            <parent link="left_eskin_01-2axis"/>
            <child link="left_eskin_01-2lib-04"/>
            <axis xyz="0.0 0.0 1.0"/>
            <limit lower="-6.28318530718" upper="6.28318530718" effort="56.0" velocity="1.5708"/>
    </joint>

    <!--left arm left_eskin_01-2lib-04 -->
    <link name="left_eskin_01-2lib-04">
        <visual>
            <origin xyz="0.0 0.0 0.0" rpy="0.0 0.0 0.0"/>
            <geometry>
                <mesh filename ="meshes/e_skin/01_meshs/01_lib_py.dae"/>
            </geometry>
            <material name = "LightGrey"/>
        </visual>
        <collision>
            <origin xyz="0.0 0.0 0.0" rpy="0.0 0.0 0.0"/>
        <geometry>
             <mesh filename ="meshes/e_skin/01_meshs/01_lib_py.stl"/>
        </geometry>
        </collision>
        <inertial>
            <origin xyz="0 0 0" rpy="0 0 0" />
            <mass value ="2.0"/>
            <inertia ixx="0.008093163" ixy="0.0" ixz="0.0" iyy="0.008093163" iyz="0.0" izz="0.005625"/>
        </inertial>
    </link>


    <!--left arm 01 eskin left_eskin_01-2lib-05-->
    <joint name="left_eskin_01-2axis_to_left_eskin_01-2lib-05" type="fixed">
            <origin xyz="-0.0149  -0.04094  0.072" rpy=" 0.0 0.0 -1.91986"/>
            <parent link="left_eskin_01-2axis"/>
            <child link="left_eskin_01-2lib-05"/>
            <axis xyz="0.0 0.0 1.0"/>
            <limit lower="-6.28318530718" upper="6.28318530718" effort="56.0" velocity="1.5708"/>
    </joint>

    <!--left arm left_eskin_01-2lib-05 -->
    <link name="left_eskin_01-2lib-05">
        <visual>
            <origin xyz="0.0 0.0 0.0" rpy="0.0 0.0 0.0"/>
            <geometry>
                <mesh filename ="meshes/e_skin/01_meshs/01_lib_py.dae"/>
            </geometry>
            <material name = "LightGrey"/>
        </visual>
        <collision>
            <origin xyz="0.0 0.0 0.0" rpy="0.0 0.0 0.0"/>
        <geometry>
             <mesh filename ="meshes/e_skin/01_meshs/01_lib_py.stl"/>
        </geometry>
        </collision>
        <inertial>
            <origin xyz="0 0 0" rpy="0 0 0" />
            <mass value ="2.0"/>
            <inertia ixx="0.008093163" ixy="0.0" ixz="0.0" iyy="0.008093163" iyz="0.0" izz="0.005625"/>
        </inertial>
    </link>


    <!-- left_arm  01-3  eskin flat  culon -->

    <!--left arm 01 eskin left_eskin_01-2lib-10-->
    <joint name="left_eskin_01-2axis_to_left_eskin_01-2lib-10" type="fixed">
            <origin xyz="0.0  0.0  0.105" rpy=" 0.0 0.0 0.0"/>
            <parent link="left_eskin_01-2axis"/>
            <child link="left_eskin_01-2lib-10"/>
            <axis xyz="0.0 0.0 1.0"/>
            <limit lower="-6.28318530718" upper="6.28318530718" effort="56.0" velocity="1.5708"/>
    </joint>

    <!--left arm left_eskin_01-2lib-10 -->
    <link name="left_eskin_01-2lib-10">
        <visual>
            <origin xyz="0.0 0.0 0.0" rpy="0.0 0.0 0.0"/>
            <geometry>
                <mesh filename ="meshes/e_skin/01_meshs/flat_py.dae"/>
            </geometry>
            <material name = "LightGrey"/>
        </visual>
        <collision>
            <origin xyz="0.0 0.0 0.0" rpy="0.0 0.0 0.0"/>
        <geometry>
             <mesh filename ="meshes/e_skin/01_meshs/flat_py.stl"/>
        </geometry>
        </collision>
        <inertial>
            <origin xyz="0 0 0" rpy="0 0 0" />
            <mass value ="2.0"/>
            <inertia ixx="0.008093163" ixy="0.0" ixz="0.0" iyy="0.008093163" iyz="0.0" izz="0.005625"/>
        </inertial>
    </link>



    



    <!--wrist2_joint -->
    <joint name="left_wrist_2_link_to_left_wrist_1_link" type="fixed">
        <origin xyz="0.0 -0.08535  -0.027" rpy="1.5708 0.0 0.0"/>
        <parent link="left_wrist_1_link"/>
        <child link="left_wrist_2_link"/>
        <axis xyz="0.0 0.0 1"/>
        <limit lower="-6.28318530718" upper="6.28318530718" effort="12.0" velocity="6.28318530718"/> 
    </joint>

    <!---->
    <link name="left_wrist_2_link">
        <inertial>
            <origin xyz="0.0 0.0 0.0" rpy="0.0 0.0 0.0"/>
            <mass value  = "0.8"/>
            <inertia ixx="0.002084999" ixy="0.0" ixz="0.0" iyy="0.002084999" iyz="0.0" izz="0.00225"/>
        </inertial>
        <visual >
            <origin xyz="0.0 0.0 -0.08535 " rpy="0.0  0.0 0.0"/>
            <geometry>
                <mesh filename="meshes/wrist2.dae"/>
            </geometry>
            <material  name ="LightGrey"/>
        </visual>
        <collision>
            <origin xyz="0.0 0.0 -0.08535" rpy="0.0  0.0 0.0"/>
            <geometry>
                <mesh filename="meshes/wrist2.stl"/>
            </geometry>
        </collision>
    </link>


    <!--sonsor2_joint-->
   <joint name="left_wrist_2_link_to_left_eskin_01-1axis" type="fixed">
        <origin xyz="0.0 0.041 0.0" rpy="1.5708 -1.5708 0.0 "/>
        <parent link="left_wrist_2_link"/>
        <child link="left_eskin_01-1axis"/>
        <axis xyz="0.0 0.0 1"/>
    </joint>

    <link name="left_eskin_01-1axis">
        <inertial>
            <origin xyz=" 0.0 0.0  0.0" rpy="0.0 0.0 0.0"/>
            <mass value  ="0.0"/>
            <inertia ixx="0.002084999" ixy="0.0" ixz="0.0" iyy="0.002084999" iyz="0.0" izz="0.00225"/>
        </inertial>
        <visual>
            <origin xyz=" 0.0 0.0 -0.0" rpy="0.0 0.0 0.0"/>
            <geometry>
            <mesh filename="meshes/e_skin/01_meshs/01_axis_py.dae"/>
            </geometry>
            <material  name ="LightGrey"/>
        </visual>
        <collision>
            <origin xyz=" 0.0 0.0 -0.00" rpy="0.0 0.0 0.0"/>
            <geometry>
                <mesh filename="meshes/e_skin/01_meshs/01_axis_py.dae"/>
            </geometry>
        </collision>
    </link>


      <!-- left_arm  01-1  eskin first  culon -->

    <!--left arm 01 eskin left_eskin_01-1lib-06-->
    <joint name="left_eskin_01-1axis_to_left_eskin_01-1lib-06" type="fixed">
            <origin xyz="0.005687  -0.043197  0.028" rpy=" 0.0 0.0 -1.43989542"/>
            <parent link="left_eskin_01-1axis"/>
            <child link="left_eskin_01-1lib-06"/>
            <axis xyz="0.0 0.0 1.0"/>
            <limit lower="-6.28318530718" upper="6.28318530718" effort="56.0" velocity="1.5708"/>
    </joint>

    <!--left arm left_eskin_01-1lib-06 -->
    <link name="left_eskin_01-1lib-06">
        <visual>
            <origin xyz="0.0 0.0 0.0" rpy="0.0 0.0 0.0"/>
            <geometry>
                <mesh filename ="meshes/e_skin/01_meshs/01_lib_py.dae"/>
            </geometry>
            <material name = "LightGrey"/>
        </visual>
        <collision>
            <origin xyz="0.0 0.0 0.0" rpy="0.0 0.0 0.0"/>
        <geometry>
             <mesh filename ="meshes/e_skin/01_meshs/01_lib_py.stl"/>
        </geometry>
        </collision>
        <inertial>
            <origin xyz="0 0 0" rpy="0 0 0" />
            <mass value ="2.0"/>
            <inertia ixx="0.008093163" ixy="0.0" ixz="0.0" iyy="0.008093163" iyz="0.0" izz="0.005625"/>
        </inertial>
    </link>

    <!--left arm 01 eskin left_eskin_01-1lib-07-->
    <joint name="left_eskin_01-1axis_to_left_eskin_01-1lib-07" type="fixed">
            <origin xyz="0.03864707  -0.020118  0.028" rpy=" 0.0 0.0 -0.47996"/>
            <parent link="left_eskin_01-1axis"/>
            <child link="left_eskin_01-1lib-07"/>
            <axis xyz="0.0 0.0 1.0"/>
            <limit lower="-6.28318530718" upper="6.28318530718" effort="56.0" velocity="1.5708"/>
    </joint>

    <!--left arm left_eskin_01-1lib-07 -->
    <link name="left_eskin_01-1lib-07">
        <visual>
            <origin xyz="0.0 0.0 0.0" rpy="0.0 0.0 0.0"/>
            <geometry>
                <mesh filename ="meshes/e_skin/01_meshs/01_lib_py.dae"/>
            </geometry>
            <material name = "LightGrey"/>
        </visual>
        <collision>
            <origin xyz="0.0 0.0 0.0" rpy="0.0 0.0 0.0"/>
        <geometry>
             <mesh filename ="meshes/e_skin/01_meshs/01_lib_py.stl"/>
        </geometry>
        </collision>
        <inertial>
            <origin xyz="0 0 0" rpy="0 0 0" />
            <mass value ="2.0"/>
            <inertia ixx="0.008093163" ixy="0.0" ixz="0.0" iyy="0.008093163" iyz="0.0" izz="0.005625"/>
        </inertial>
    </link>


    <!--left arm 01 eskin left_eskin_01-1lib-08-->
    <joint name="left_eskin_01-1axis_to_left_eskin_01-1lib-08" type="fixed">
            <origin xyz="0.038647  0.020118  0.028" rpy=" 0.0 0.0 0.479965"/>
            <parent link="left_eskin_01-1axis"/>
            <child link="left_eskin_01-1lib-08"/>
            <axis xyz="0.0 0.0 1.0"/>
            <limit lower="-6.28318530718" upper="6.28318530718" effort="56.0" velocity="1.5708"/>
    </joint>

    <!--left arm left_eskin_01-1lib-08 -->
    <link name="left_eskin_01-1lib-08">
        <visual>
            <origin xyz="0.0 0.0 0.0" rpy="0.0 0.0 0.0"/>
            <geometry>
                <mesh filename ="meshes/e_skin/01_meshs/01_lib_py.dae"/>
            </geometry>
            <material name = "LightGrey"/>
        </visual>
        <collision>
            <origin xyz="0.0 0.0 0.0" rpy="0.0 0.0 0.0"/>
        <geometry>
             <mesh filename ="meshes/e_skin/01_meshs/01_lib_py.stl"/>
        </geometry>
        </collision>
        <inertial>
            <origin xyz="0 0 0" rpy="0 0 0" />
            <mass value ="2.0"/>
            <inertia ixx="0.008093163" ixy="0.0" ixz="0.0" iyy="0.008093163" iyz="0.0" izz="0.005625"/>
        </inertial>
    </link>


    <!--left arm 01 eskin left_eskin_01-1lib-09-->
    <joint name="left_eskin_01-1axis_to_left_eskin_01-1lib-09" type="fixed">
            <origin xyz="0.005687  0.043197 0.028" rpy=" 0.0 0.0 1.43989542"/>
            <parent link="left_eskin_01-1axis"/>
            <child link="left_eskin_01-1lib-09"/>
            <axis xyz="0.0 0.0 1.0"/>
            <limit lower="-6.28318530718" upper="6.28318530718" effort="56.0" velocity="1.5708"/>
    </joint>

    <!--left arm left_eskin_01-1lib-09 -->
    <link name="left_eskin_01-1lib-09">
        <visual>
            <origin xyz="0.0 0.0 0.0" rpy="0.0 0.0 0.0"/>
            <geometry>
                <mesh filename ="meshes/e_skin/01_meshs/01_lib_py.dae"/>
            </geometry>
            <material name = "LightGrey"/>
        </visual>
        <collision>
            <origin xyz="0.0 0.0 0.0" rpy="0.0 0.0 0.0"/>
        <geometry>
             <mesh filename ="meshes/e_skin/01_meshs/01_lib_py.stl"/>
        </geometry>
        </collision>
        <inertial>
            <origin xyz="0 0 0" rpy="0 0 0" />
            <mass value ="2.0"/>
            <inertia ixx="0.008093163" ixy="0.0" ixz="0.0" iyy="0.008093163" iyz="0.0" izz="0.005625"/>
        </inertial>
    </link>




    <!-- left_arm  01-1  eskin second  culon -->

    <!--left arm 01 eskin left_eskin_01-1lib-01-->
    <joint name="left_eskin_01-1axis_to_left_eskin_01-1lib-01" type="fixed">
            <origin xyz="0.04375  0.0  0.072" rpy=" 0.0 0.0 0.0"/>
            <parent link="left_eskin_01-1axis"/>
            <child link="left_eskin_01-1lib-01"/>
            <axis xyz="0.0 0.0 1.0"/>
            <limit lower="-6.28318530718" upper="6.28318530718" effort="56.0" velocity="1.5708"/>
    </joint>

    <!--left arm left_eskin_01-1lib-01 -->
    <link name="left_eskin_01-1lib-01">
        <visual>
            <origin xyz="0.0 0.0 0.0" rpy="0.0 0.0 0.0"/>
            <geometry>
                <mesh filename ="meshes/e_skin/01_meshs/01_lib_py.dae"/>
            </geometry>
            <material name = "LightGrey"/>
        </visual>
        <collision>
            <origin xyz="0.0 0.0 0.0" rpy="0.0 0.0 0.0"/>
        <geometry>
             <mesh filename ="meshes/e_skin/01_meshs/01_lib_py.stl"/>
        </geometry>
        </collision>
        <inertial>
            <origin xyz="0 0 0" rpy="0 0 0" />
            <mass value ="2.0"/>
            <inertia ixx="0.008093163" ixy="0.0" ixz="0.0" iyy="0.008093163" iyz="0.0" izz="0.005625"/>
        </inertial>
    </link>

    <!--left arm 01 eskin left_eskin_01-1lib-02-->
    <joint name="left_eskin_01-1axis_to_left_eskin_01-1lib-02" type="fixed">
            <origin xyz="0.02499075  0.03569  0.072" rpy=" 0.0 0.0 0.95993028"/>
            <parent link="left_eskin_01-1axis"/>
            <child link="left_eskin_01-1lib-02"/>
            <axis xyz="0.0 0.0 1.0"/>
            <limit lower="-6.28318530718" upper="6.28318530718" effort="56.0" velocity="1.5708"/>
    </joint>

    <!--left arm left_eskin_01-1lib-02 -->
    <link name="left_eskin_01-1lib-02">
        <visual>
            <origin xyz="0.0 0.0 0.0" rpy="0.0 0.0 0.0"/>
            <geometry>
                <mesh filename ="meshes/e_skin/01_meshs/01_lib_py.dae"/>
            </geometry>
            <material name = "LightGrey"/>
        </visual>
        <collision>
            <origin xyz="0.0 0.0 0.0" rpy="0.0 0.0 0.0"/>
        <geometry>
             <mesh filename ="meshes/e_skin/01_meshs/01_lib_py.stl"/>
        </geometry>
        </collision>
        <inertial>
            <origin xyz="0 0 0" rpy="0 0 0" />
            <mass value ="2.0"/>
            <inertia ixx="0.008093163" ixy="0.0" ixz="0.0" iyy="0.008093163" iyz="0.0" izz="0.005625"/>
        </inertial>
    </link>


    <!--left arm 01 eskin left_eskin_01-1lib-03-->
    <joint name="left_eskin_01-1axis_to_left_eskin_01-1lib-03" type="fixed">
            <origin xyz="-0.0149  0.0409424  0.072" rpy=" 0.0 0.0 1.91986"/>
            <parent link="left_eskin_01-1axis"/>
            <child link="left_eskin_01-1lib-03"/>
            <axis xyz="0.0 0.0 1.0"/>
            <limit lower="-6.28318530718" upper="6.28318530718" effort="56.0" velocity="1.5708"/>
    </joint>

    <!--left arm left_eskin_01-1lib-03 -->
    <link name="left_eskin_01-1lib-03">
        <visual>
            <origin xyz="0.0 0.0 0.0" rpy="0.0 0.0 0.0"/>
            <geometry>
                <mesh filename ="meshes/e_skin/01_meshs/01_lib_py.dae"/>
            </geometry>
            <material name = "LightGrey"/>
        </visual>
        <collision>
            <origin xyz="0.0 0.0 0.0" rpy="0.0 0.0 0.0"/>
        <geometry>
             <mesh filename ="meshes/e_skin/01_meshs/01_lib_py.stl"/>
        </geometry>
        </collision>
        <inertial>
            <origin xyz="0 0 0" rpy="0 0 0" />
            <mass value ="2.0"/>
            <inertia ixx="0.008093163" ixy="0.0" ixz="0.0" iyy="0.008093163" iyz="0.0" izz="0.005625"/>
        </inertial>
    </link>


    <!--left arm 01 eskin left_eskin_01-1lib-04-->
    <joint name="left_eskin_01-1axis_to_left_eskin_01-1lib-04" type="fixed">
            <origin xyz="0.02499  -0.03569  0.072" rpy=" 0.0 0.0 -0.95993"/>
            <parent link="left_eskin_01-1axis"/>
            <child link="left_eskin_01-1lib-04"/>
            <axis xyz="0.0 0.0 1.0"/>
            <limit lower="-6.28318530718" upper="6.28318530718" effort="56.0" velocity="1.5708"/>
    </joint>

    <!--left arm left_eskin_01-1lib-04 -->
    <link name="left_eskin_01-1lib-04">
        <visual>
            <origin xyz="0.0 0.0 0.0" rpy="0.0 0.0 0.0"/>
            <geometry>
                <mesh filename ="meshes/e_skin/01_meshs/01_lib_py.dae"/>
            </geometry>
            <material name = "LightGrey"/>
        </visual>
        <collision>
            <origin xyz="0.0 0.0 0.0" rpy="0.0 0.0 0.0"/>
        <geometry>
             <mesh filename ="meshes/e_skin/01_meshs/01_lib_py.stl"/>
        </geometry>
        </collision>
        <inertial>
            <origin xyz="0 0 0" rpy="0 0 0" />
            <mass value ="2.0"/>
            <inertia ixx="0.008093163" ixy="0.0" ixz="0.0" iyy="0.008093163" iyz="0.0" izz="0.005625"/>
        </inertial>
    </link>


    <!--left arm 01 eskin left_eskin_01-1lib-05-->
    <joint name="left_eskin_01-1axis_to_left_eskin_01-1lib-05" type="fixed">
            <origin xyz="-0.0149  -0.04094  0.072" rpy=" 0.0 0.0 -1.91986"/>
            <parent link="left_eskin_01-1axis"/>
            <child link="left_eskin_01-1lib-05"/>
            <axis xyz="0.0 0.0 1.0"/>
            <limit lower="-6.28318530718" upper="6.28318530718" effort="56.0" velocity="1.5708"/>
    </joint>

    <!--left arm left_eskin_01-1lib-05 -->
    <link name="left_eskin_01-1lib-05">
        <visual>
            <origin xyz="0.0 0.0 0.0" rpy="0.0 0.0 0.0"/>
            <geometry>
                <mesh filename ="meshes/e_skin/01_meshs/01_lib_py.dae"/>
            </geometry>
            <material name = "LightGrey"/>
        </visual>
        <collision>
            <origin xyz="0.0 0.0 0.0" rpy="0.0 0.0 0.0"/>
        <geometry>
             <mesh filename ="meshes/e_skin/01_meshs/01_lib_py.stl"/>
        </geometry>
        </collision>
        <inertial>
            <origin xyz="0 0 0" rpy="0 0 0" />
            <mass value ="2.0"/>
            <inertia ixx="0.008093163" ixy="0.0" ixz="0.0" iyy="0.008093163" iyz="0.0" izz="0.005625"/>
        </inertial>
    </link>


    <!-- left_arm  01-3  eskin flat  culon -->

    <!--left arm 01 eskin left_eskin_01-1lib-10-->
    <joint name="left_eskin_01-1axis_to_left_eskin_01-1lib-10" type="fixed">
            <origin xyz="0.0  0.0  0.105" rpy=" 0.0 0.0 0.0"/>
            <parent link="left_eskin_01-1axis"/>
            <child link="left_eskin_01-1lib-10"/>
            <axis xyz="0.0 0.0 1.0"/>
            <limit lower="-6.28318530718" upper="6.28318530718" effort="56.0" velocity="1.5708"/>
    </joint>

    <!--left arm left_eskin_01-1lib-10 -->
    <link name="left_eskin_01-1lib-10">
        <visual>
            <origin xyz="0.0 0.0 0.0" rpy="0.0 0.0 0.0"/>
            <geometry>
                <mesh filename ="meshes/e_skin/01_meshs/flat_py.dae"/>
            </geometry>
            <material name = "LightGrey"/>
        </visual>
        <collision>
            <origin xyz="0.0 0.0 0.0" rpy="0.0 0.0 0.0"/>
        <geometry>
             <mesh filename ="meshes/e_skin/01_meshs/flat_py.stl"/>
        </geometry>
        </collision>
        <inertial>
            <origin xyz="0 0 0" rpy="0 0 0" />
            <mass value ="2.0"/>
            <inertia ixx="0.008093163" ixy="0.0" ixz="0.0" iyy="0.008093163" iyz="0.0" izz="0.005625"/>
        </inertial>
    </link>



     <!--left arm joint 6-->
    <joint name="left_wrist_3_link_to_left_wrist_2_link" type="fixed">
        <origin xyz="0.0 0.0921 0.0" rpy="1.5708  3.1415926 3.1415926"/>
        <parent link="left_wrist_2_link"/>
        <child link="left_wrist_3_link"/>
        <axis xyz="0.0 0.0 1"/>
        <limit lower="-6.28318530718" upper="6.28318530718" effort="12.0" velocity="6.28318530718"/>
    </joint>

    <!--3-->
    <link name="left_wrist_3_link">
        <inertial>
            <origin xyz="0.0 0.0 -0.0175" rpy="0.0 0.0 0.0"/>
            <mass value  ="0.35"/>
            <inertia ixx="0.000136267" ixy="0.0" ixz="0.0" iyy="0.000136267" iyz="0.0" izz="0.0004096"/>
        </inertial>
        <visual >
            <origin xyz="0.0 0.0  -0.085" rpy="1.5708  0.0 0.0"/>
            <geometry>
                <mesh filename="meshes/wrist3.stl"/>
            </geometry>
            <material  name ="LightGrey"/>
        </visual>
        <collision>
            <origin xyz="0.0 0.0  -0.085" rpy="1.5708  0.0 0.0"/>
            <geometry>
                <mesh filename="meshes/wrist3.stl"/>
            </geometry>
        </collision>
    </link>

    
</robot>
